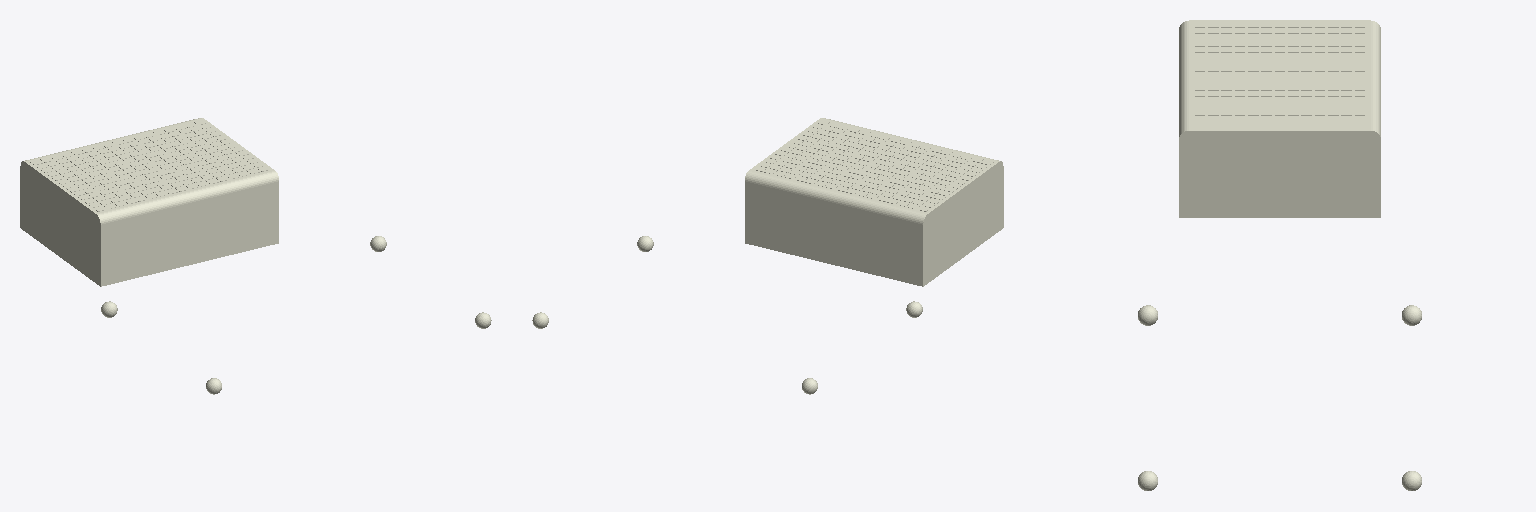
--- Facts derived from the render (not from the file) ---
Views: 3 orthographic renders of the robot side by side, from view 1: azimuth 30°, elevation 25°; view 2: azimuth 150°, elevation 25°; view 3: azimuth 270°, elevation 25°.
Robot: locotouch — 254 links, 253 joints (12 revolute, 241 fixed); root link trunk; default pose: all joints at 0 but 4 set to mid-range because 0 is outside their limits (a_FR_calf_joint = -1.85, b_FL_calf_joint = -1.85, c_RR_calf_joint = -1.85, d_RL_calf_joint = -1.85).
Links seen in each view (by area): view 1: back_mid, back, right_cylinder; view 2: back_mid, back, left_cylinder; view 3: back_mid, back, left_cylinder, right_cylinder.
Link boxes in pixels (x1,y1,x2,y2): back_mid: [20, 166, 278, 286]; back: [25, 118, 274, 220]; right_cylinder: [93, 171, 278, 227]; back_mid: [745, 166, 1003, 286]; back: [749, 118, 998, 220]; left_cylinder: [745, 171, 930, 229]; back_mid: [1179, 140, 1380, 217]; back: [1189, 20, 1370, 139]; left_cylinder: [1360, 21, 1380, 148]; right_cylinder: [1179, 21, 1199, 147].
Size in the robot's own frame: 0.5276 by 0.2735 by 0.2571 metres.
0 mesh visuals loaded from 5 distinct referenced files (none loaded); not drawn: 13 (reference not matched to a file when rendering).

URDF robot description (locotouch):
<?xml version="1.0" ?>
<!-- =================================================================================== -->
<!-- |    This document was autogenerated by xacro from robot.xacro                    | -->
<!-- |    EDITING THIS FILE BY HAND IS NOT RECOMMENDED                                 | -->
<!-- =================================================================================== -->
<robot name="locotouch">
  <material name="black">
    <color rgba="0.0 0.0 0.0 1.0"/>
  </material>
  <material name="blue">
    <color rgba="0.0 0.0 0.8 1.0"/>
  </material>
  <material name="green">
    <color rgba="0.0 0.8 0.0 1.0"/>
  </material>
  <material name="grey">
    <color rgba="0.2 0.2 0.2 1.0"/>
  </material>
  <material name="silver">
    <color rgba="0.9137254901960784 0.9137254901960784 0.8470588235294118 1.0"/>
  </material>
  <material name="orange">
    <color rgba="1.0 0.4235294117647059 0.0392156862745098 1.0"/>
  </material>
  <material name="brown">
    <color rgba="0.8705882352941177 0.8117647058823529 0.7647058823529411 1.0"/>
  </material>
  <material name="red">
    <color rgba="0.8 0.0 0.0 1.0"/>
  </material>
  <material name="white">
    <color rgba="1.0 1.0 1.0 1.0"/>
  </material>

  <link name="trunk">
    <visual>
      <origin rpy="0 0 0" xyz="0 0 0"/>
      <geometry>
        <mesh filename="../meshes/trunk.stl" scale="1 1 1"/>
      </geometry>
      <material name="silver"/>
    </visual>
    <collision>
      <origin rpy="0 0 0" xyz="0 0 0"/>
      <geometry>
        <box size="0.256 0.1 0.114"/>
      </geometry>
    </collision>
    <inertial>
      <origin rpy="0 0 0" xyz="0.0223 0.002 -0.0005"/>
      <mass value="5.204"/>
      <inertia ixx="0.0168128557" ixy="-0.0002296769" ixz="-0.0002945293" iyy="0.063009565" iyz="-4.18731e-05" izz="0.0716547275"/>
    </inertial>
  </link>

  <joint name="a_FR_hip_joint" type="revolute">
    <origin rpy="0 0 0" xyz="0.1881 -0.04675 0"/>
    <parent link="trunk"/>
    <child link="a_FR_hip"/>
    <axis xyz="1 0 0"/>
    <dynamics damping="0.0" friction="0.0"/>
    <limit effort="23.7" lower="-0.863" upper="0.863" velocity="30.1"/>
  </joint>
  <joint name="a_FR_hip_rotor_joint" type="fixed">
    <origin rpy="0 0 0" xyz="0.11215 -0.04675 0"/>
    <parent link="trunk"/>
    <child link="a_FR_hip_rotor"/>
  </joint>
  <link name="a_FR_hip">
    <visual>
      <origin rpy="3.141592653589793 0 0" xyz="0 0 0"/>
      <geometry>
        <mesh filename="../meshes/hip.stl" scale="1 1 1"/>
      </geometry>
      <material name="silver"/>
    </visual>
    <collision>
      <origin rpy="1.5707963267948966 0 0" xyz="0 -0.08 0"/>
      <geometry>
        <cylinder length="0.04" radius="0.046"/>
      </geometry>
    </collision>
    <inertial>
      <origin rpy="0 0 0" xyz="-0.005657 0.008752 -0.000102"/>
      <mass value="0.591"/>
      <inertia ixx="0.000334008405" ixy="1.0826066e-05" ixz="1.290732e-06" iyy="0.000619101213" iyz="-1.643194e-06" izz="0.00040057614"/>
    </inertial>
  </link>
  <link name="a_FR_hip_rotor">
    <collision>
      <origin rpy="0 1.5707963267948966 0" xyz="0 0 0"/>
      <geometry>
        <cylinder length="0.02" radius="0.035"/>
      </geometry>
    </collision>
    <inertial>
      <origin rpy="0 0 0" xyz="0.0 0.0 0.0"/>
      <mass value="0.089"/>
      <inertia ixx="0.000111842" ixy="0.0" ixz="0.0" iyy="5.9647e-05" iyz="0.0" izz="5.9647e-05"/>
    </inertial>
  </link>
  <joint name="a_FR_thigh_joint" type="revolute">
    <origin rpy="0 0 0" xyz="0 -0.08 0"/>
    <parent link="a_FR_hip"/>
    <child link="a_FR_thigh"/>
    <axis xyz="0 1 0"/>
    <dynamics damping="0.0" friction="0.0"/>
    <limit effort="23.7" lower="-0.686" upper="4.501" velocity="30.1"/>
  </joint>
  <joint name="a_FR_thigh_rotor_joint" type="fixed">
    <origin rpy="0 0 0" xyz="0.0 0.00015 0"/>
    <parent link="a_FR_hip"/>
    <child link="a_FR_thigh_rotor"/>
  </joint>
  <link name="a_FR_thigh">
    <visual>
      <origin rpy="0 0 0" xyz="0 0 0"/>
      <geometry>
        <mesh filename="../meshes/thigh_mirror.stl" scale="1 1 1"/>
      </geometry>
      <material name="silver"/>
    </visual>
    <collision>
      <origin rpy="0 1.5707963267948966 0" xyz="0 0 -0.1065"/>
      <geometry>
        <box size="0.213 0.0245 0.034"/>
      </geometry>
    </collision>
    <inertial>
      <origin rpy="0 0 0" xyz="-0.003342 0.018054 -0.033451"/>
      <mass value="0.92"/>
      <inertia ixx="0.004431760472" ixy="-5.7496807e-05" ixz="-0.000218457134" iyy="0.004485671726" iyz="-0.000572001265" izz="0.000740309489"/>
    </inertial>
  </link>
  <link name="a_FR_thigh_rotor">
    <collision>
      <origin rpy="1.5707963267948966 0 0" xyz="0 0 0"/>
      <geometry>
        <cylinder length="0.02" radius="0.035"/>
      </geometry>
    </collision>
    <inertial>
      <origin rpy="0 0 0" xyz="0.0 0.0 0.0"/>
      <mass value="0.089"/>
      <inertia ixx="5.9647e-05" ixy="0.0" ixz="0.0" iyy="0.000111842" iyz="0.0" izz="5.9647e-05"/>
    </inertial>
  </link>
  <joint name="a_FR_calf_joint" type="revolute">
    <origin rpy="0 0 0" xyz="0 0 -0.213"/>
    <parent link="a_FR_thigh"/>
    <child link="a_FR_calf"/>
    <axis xyz="0 1 0"/>
    <dynamics damping="0.0" friction="0.0"/>
    <limit effort="35.55" lower="-2.818" upper="-0.888" velocity="20.06"/>
  </joint>
  <joint name="a_FR_calf_rotor_joint" type="fixed">
    <origin rpy="0 0 0" xyz="0.0 0.03235 0"/>
    <parent link="a_FR_thigh"/>
    <child link="a_FR_calf_rotor"/>
  </joint>
  <link name="a_FR_calf">
    <visual>
      <origin rpy="0 0 0" xyz="0 0 0"/>
      <geometry>
        <mesh filename="../meshes/calf.stl" scale="1 1 1"/>
      </geometry>
      <material name="silver"/>
    </visual>
    <collision>
      <origin rpy="0 1.5707963267948966 0" xyz="0 0 -0.1065"/>
      <geometry>
        <box size="0.213 0.016 0.016"/>
      </geometry>
    </collision>
    <inertial>
      <origin rpy="0 0 0" xyz="0.006197 0.001408 -0.116695"/>
      <mass value="0.135862"/>
      <inertia ixx="0.001088793059" ixy="-2.55679e-07" ixz="7.117814e-06" iyy="0.001100428748" iyz="2.077264e-06" izz="2.4787446e-05"/>
    </inertial>
  </link>
  <link name="a_FR_calf_rotor">
    <collision>
      <origin rpy="1.5707963267948966 0 0" xyz="0 0 0"/>
      <geometry>
        <cylinder length="0.02" radius="0.035"/>
      </geometry>
    </collision>
    <inertial>
      <origin rpy="0 0 0" xyz="0.0 0.0 0.0"/>
      <mass value="0.089"/>
      <inertia ixx="5.9647e-05" ixy="0.0" ixz="0.0" iyy="0.000111842" iyz="0.0" izz="5.9647e-05"/>
    </inertial>
  </link>
  <joint name="a_FR_foot_fixed" type="fixed" dont_collapse="true">
    <origin rpy="0 0 0" xyz="0 0 -0.213"/>
    <parent link="a_FR_calf"/>
    <child link="a_FR_foot"/>
  </joint>
  <link name="a_FR_foot">
    <visual>
      <origin rpy="0 0 0" xyz="0 0 0"/>
      <geometry>
        <sphere radius="0.01"/>
      </geometry>
      <material name="silver"/>
    </visual>
    <collision>
      <origin rpy="0 0 0" xyz="0 0 0"/>
      <geometry>
        <sphere radius="0.02"/>
      </geometry>
    </collision>
    <inertial>
      <mass value="0.06"/>
      <inertia ixx="9.600000000000001e-06" ixy="0.0" ixz="0.0" iyy="9.600000000000001e-06" iyz="0.0" izz="9.600000000000001e-06"/>
    </inertial>
  </link>

  <joint name="b_FL_hip_joint" type="revolute">
    <origin rpy="0 0 0" xyz="0.1881 0.04675 0"/>
    <parent link="trunk"/>
    <child link="b_FL_hip"/>
    <axis xyz="1 0 0"/>
    <dynamics damping="0.0" friction="0.0"/>
    <limit effort="23.7" lower="-0.863" upper="0.863" velocity="30.1"/>
  </joint>
  <joint name="b_FL_hip_rotor_joint" type="fixed">
    <origin rpy="0 0 0" xyz="0.11215 0.04675 0"/>
    <parent link="trunk"/>
    <child link="b_FL_hip_rotor"/>
  </joint>
  <link name="b_FL_hip">
    <visual>
      <origin rpy="0 0 0" xyz="0 0 0"/>
      <geometry>
        <mesh filename="../meshes/hip.stl" scale="1 1 1"/>
      </geometry>
      <material name="silver"/>
    </visual>
    <collision>
      <origin rpy="1.5707963267948966 0 0" xyz="0 0.08 0"/>
      <geometry>
        <cylinder length="0.04" radius="0.046"/>
      </geometry>
    </collision>
    <inertial>
      <origin rpy="0 0 0" xyz="-0.005657 -0.008752 -0.000102"/>
      <mass value="0.591"/>
      <inertia ixx="0.000334008405" ixy="-1.0826066e-05" ixz="1.290732e-06" iyy="0.000619101213" iyz="1.643194e-06" izz="0.00040057614"/>
    </inertial>
  </link>
  <link name="b_FL_hip_rotor">
    <collision>
      <origin rpy="0 1.5707963267948966 0" xyz="0 0 0"/>
      <geometry>
        <cylinder length="0.02" radius="0.035"/>
      </geometry>
    </collision>
    <inertial>
      <origin rpy="0 0 0" xyz="0.0 0.0 0.0"/>
      <mass value="0.089"/>
      <inertia ixx="0.000111842" ixy="0.0" ixz="0.0" iyy="5.9647e-05" iyz="0.0" izz="5.9647e-05"/>
    </inertial>
  </link>
  <joint name="b_FL_thigh_joint" type="revolute">
    <origin rpy="0 0 0" xyz="0 0.08 0"/>
    <parent link="b_FL_hip"/>
    <child link="b_FL_thigh"/>
    <axis xyz="0 1 0"/>
    <dynamics damping="0.0" friction="0.0"/>
    <limit effort="23.7" lower="-0.686" upper="4.501" velocity="30.1"/>
  </joint>
  <joint name="b_FL_thigh_rotor_joint" type="fixed">
    <origin rpy="0 0 0" xyz="0.0 -0.00015 0"/>
    <parent link="b_FL_hip"/>
    <child link="b_FL_thigh_rotor"/>
  </joint>
  <link name="b_FL_thigh">
    <visual>
      <origin rpy="0 0 0" xyz="0 0 0"/>
      <geometry>
        <mesh filename="../meshes/thigh.stl" scale="1 1 1"/>
      </geometry>
      <material name="silver"/>
    </visual>
    <collision>
      <origin rpy="0 1.5707963267948966 0" xyz="0 0 -0.1065"/>
      <geometry>
        <box size="0.213 0.0245 0.034"/>
      </geometry>
    </collision>
    <inertial>
      <origin rpy="0 0 0" xyz="-0.003342 -0.018054 -0.033451"/>
      <mass value="0.92"/>
      <inertia ixx="0.004431760472" ixy="5.7496807e-05" ixz="-0.000218457134" iyy="0.004485671726" iyz="0.000572001265" izz="0.000740309489"/>
    </inertial>
  </link>
  <link name="b_FL_thigh_rotor">
    <collision>
      <origin rpy="1.5707963267948966 0 0" xyz="0 0 0"/>
      <geometry>
        <cylinder length="0.02" radius="0.035"/>
      </geometry>
    </collision>
    <inertial>
      <origin rpy="0 0 0" xyz="0.0 0.0 0.0"/>
      <mass value="0.089"/>
      <inertia ixx="5.9647e-05" ixy="0.0" ixz="0.0" iyy="0.000111842" iyz="0.0" izz="5.9647e-05"/>
    </inertial>
  </link>
  <joint name="b_FL_calf_joint" type="revolute">
    <origin rpy="0 0 0" xyz="0 0 -0.213"/>
    <parent link="b_FL_thigh"/>
    <child link="b_FL_calf"/>
    <axis xyz="0 1 0"/>
    <dynamics damping="0.0" friction="0.0"/>
    <limit effort="35.55" lower="-2.818" upper="-0.888" velocity="20.06"/>
  </joint>
  <joint name="b_FL_calf_rotor_joint" type="fixed">
    <origin rpy="0 0 0" xyz="0.0 -0.03235 0"/>
    <parent link="b_FL_thigh"/>
    <child link="b_FL_calf_rotor"/>
  </joint>
  <link name="b_FL_calf">
    <visual>
      <origin rpy="0 0 0" xyz="0 0 0"/>
      <geometry>
        <mesh filename="../meshes/calf.stl" scale="1 1 1"/>
      </geometry>
      <material name="silver"/>
    </visual>
    <collision>
      <origin rpy="0 1.5707963267948966 0" xyz="0 0 -0.1065"/>
      <geometry>
        <box size="0.213 0.016 0.016"/>
      </geometry>
    </collision>
    <inertial>
      <origin rpy="0 0 0" xyz="0.006197 0.001408 -0.116695"/>
      <mass value="0.135862"/>
      <inertia ixx="0.001088793059" ixy="-2.55679e-07" ixz="7.117814e-06" iyy="0.001100428748" iyz="2.077264e-06" izz="2.4787446e-05"/>
    </inertial>
  </link>
  <link name="b_FL_calf_rotor">
    <collision>
      <origin rpy="1.5707963267948966 0 0" xyz="0 0 0"/>
      <geometry>
        <cylinder length="0.02" radius="0.035"/>
      </geometry>
    </collision>
    <inertial>
      <origin rpy="0 0 0" xyz="0.0 0.0 0.0"/>
      <mass value="0.089"/>
      <inertia ixx="5.9647e-05" ixy="0.0" ixz="0.0" iyy="0.000111842" iyz="0.0" izz="5.9647e-05"/>
    </inertial>
  </link>
  <joint name="b_FL_foot_fixed" type="fixed" dont_collapse="true">
    <origin rpy="0 0 0" xyz="0 0 -0.213"/>
    <parent link="b_FL_calf"/>
    <child link="b_FL_foot"/>
  </joint>
  <link name="b_FL_foot">
    <visual>
      <origin rpy="0 0 0" xyz="0 0 0"/>
      <geometry>
        <sphere radius="0.01"/>
      </geometry>
      <material name="silver"/>
    </visual>
    <collision>
      <origin rpy="0 0 0" xyz="0 0 0"/>
      <geometry>
        <sphere radius="0.02"/>
      </geometry>
    </collision>
    <inertial>
      <mass value="0.06"/>
      <inertia ixx="9.600000000000001e-06" ixy="0.0" ixz="0.0" iyy="9.600000000000001e-06" iyz="0.0" izz="9.600000000000001e-06"/>
    </inertial>
  </link>

  <joint name="c_RR_hip_joint" type="revolute">
    <origin rpy="0 0 0" xyz="-0.1881 -0.04675 0"/>
    <parent link="trunk"/>
    <child link="c_RR_hip"/>
    <axis xyz="1 0 0"/>
    <dynamics damping="0.0" friction="0.0"/>
    <limit effort="23.7" lower="-0.863" upper="0.863" velocity="30.1"/>
  </joint>
  <joint name="c_RR_hip_rotor_joint" type="fixed">
    <origin rpy="0 0 0" xyz="-0.11215 -0.04675 0"/>
    <parent link="trunk"/>
    <child link="c_RR_hip_rotor"/>
  </joint>
  <link name="c_RR_hip">
    <visual>
      <origin rpy="3.141592653589793 3.141592653589793 0" xyz="0 0 0"/>
      <geometry>
        <mesh filename="../meshes/hip.stl" scale="1 1 1"/>
      </geometry>
      <material name="silver"/>
    </visual>
    <collision>
      <origin rpy="1.5707963267948966 0 0" xyz="0 -0.08 0"/>
      <geometry>
        <cylinder length="0.04" radius="0.046"/>
      </geometry>
    </collision>
    <inertial>
      <origin rpy="0 0 0" xyz="0.005657 0.008752 -0.000102"/>
      <mass value="0.591"/>
      <inertia ixx="0.000334008405" ixy="-1.0826066e-05" ixz="-1.290732e-06" iyy="0.000619101213" iyz="-1.643194e-06" izz="0.00040057614"/>
    </inertial>
  </link>
  <link name="c_RR_hip_rotor">
    <collision>
      <origin rpy="0 1.5707963267948966 0" xyz="0 0 0"/>
      <geometry>
        <cylinder length="0.02" radius="0.035"/>
      </geometry>
    </collision>
    <inertial>
      <origin rpy="0 0 0" xyz="0.0 0.0 0.0"/>
      <mass value="0.089"/>
      <inertia ixx="0.000111842" ixy="0.0" ixz="0.0" iyy="5.9647e-05" iyz="0.0" izz="5.9647e-05"/>
    </inertial>
  </link>
  <joint name="c_RR_thigh_joint" type="revolute">
    <origin rpy="0 0 0" xyz="0 -0.08 0"/>
    <parent link="c_RR_hip"/>
    <child link="c_RR_thigh"/>
    <axis xyz="0 1 0"/>
    <dynamics damping="0.0" friction="0.0"/>
    <limit effort="23.7" lower="-0.686" upper="4.501" velocity="30.1"/>
  </joint>
  <joint name="c_RR_thigh_rotor_joint" type="fixed">
    <origin rpy="0 0 0" xyz="0.0 0.00015 0"/>
    <parent link="c_RR_hip"/>
    <child link="c_RR_thigh_rotor"/>
  </joint>
  <link name="c_RR_thigh">
    <visual>
      <origin rpy="0 0 0" xyz="0 0 0"/>
      <geometry>
        <mesh filename="../meshes/thigh_mirror.stl" scale="1 1 1"/>
      </geometry>
      <material name="silver"/>
    </visual>
    <collision>
      <origin rpy="0 1.5707963267948966 0" xyz="0 0 -0.1065"/>
      <geometry>
        <box size="0.213 0.0245 0.034"/>
      </geometry>
    </collision>
    <inertial>
      <origin rpy="0 0 0" xyz="-0.003342 0.018054 -0.033451"/>
      <mass value="0.92"/>
      <inertia ixx="0.004431760472" ixy="-5.7496807e-05" ixz="-0.000218457134" iyy="0.004485671726" iyz="-0.000572001265" izz="0.000740309489"/>
    </inertial>
  </link>
  <link name="c_RR_thigh_rotor">
    <collision>
      <origin rpy="1.5707963267948966 0 0" xyz="0 0 0"/>
      <geometry>
        <cylinder length="0.02" radius="0.035"/>
      </geometry>
    </collision>
    <inertial>
      <origin rpy="0 0 0" xyz="0.0 0.0 0.0"/>
      <mass value="0.089"/>
      <inertia ixx="5.9647e-05" ixy="0.0" ixz="0.0" iyy="0.000111842" iyz="0.0" izz="5.9647e-05"/>
    </inertial>
  </link>
  <joint name="c_RR_calf_joint" type="revolute">
    <origin rpy="0 0 0" xyz="0 0 -0.213"/>
    <parent link="c_RR_thigh"/>
    <child link="c_RR_calf"/>
    <axis xyz="0 1 0"/>
    <dynamics damping="0.0" friction="0.0"/>
    <limit effort="35.55" lower="-2.818" upper="-0.888" velocity="20.06"/>
  </joint>
  <joint name="c_RR_calf_rotor_joint" type="fixed">
    <origin rpy="0 0 0" xyz="0.0 0.03235 0"/>
    <parent link="c_RR_thigh"/>
    <child link="c_RR_calf_rotor"/>
  </joint>
  <link name="c_RR_calf">
    <visual>
      <origin rpy="0 0 0" xyz="0 0 0"/>
      <geometry>
        <mesh filename="../meshes/calf.stl" scale="1 1 1"/>
      </geometry>
      <material name="silver"/>
    </visual>
    <collision>
      <origin rpy="0 1.5707963267948966 0" xyz="0 0 -0.1065"/>
      <geometry>
        <box size="0.213 0.016 0.016"/>
      </geometry>
    </collision>
    <inertial>
      <origin rpy="0 0 0" xyz="0.006197 0.001408 -0.116695"/>
      <mass value="0.135862"/>
      <inertia ixx="0.001088793059" ixy="-2.55679e-07" ixz="7.117814e-06" iyy="0.001100428748" iyz="2.077264e-06" izz="2.4787446e-05"/>
    </inertial>
  </link>
  <link name="c_RR_calf_rotor">
    <collision>
      <origin rpy="1.5707963267948966 0 0" xyz="0 0 0"/>
      <geometry>
        <cylinder length="0.02" radius="0.035"/>
      </geometry>
    </collision>
    <inertial>
      <origin rpy="0 0 0" xyz="0.0 0.0 0.0"/>
      <mass value="0.089"/>
      <inertia ixx="5.9647e-05" ixy="0.0" ixz="0.0" iyy="0.000111842" iyz="0.0" izz="5.9647e-05"/>
    </inertial>
  </link>
  <joint name="c_RR_foot_fixed" type="fixed" dont_collapse="true">
    <origin rpy="0 0 0" xyz="0 0 -0.213"/>
    <parent link="c_RR_calf"/>
    <child link="c_RR_foot"/>
  </joint>
  <link name="c_RR_foot">
    <visual>
      <origin rpy="0 0 0" xyz="0 0 0"/>
      <geometry>
        <sphere radius="0.01"/>
      </geometry>
      <material name="silver"/>
    </visual>
    <collision>
      <origin rpy="0 0 0" xyz="0 0 0"/>
      <geometry>
        <sphere radius="0.02"/>
      </geometry>
    </collision>
    <inertial>
      <mass value="0.06"/>
      <inertia ixx="9.600000000000001e-06" ixy="0.0" ixz="0.0" iyy="9.600000000000001e-06" iyz="0.0" izz="9.600000000000001e-06"/>
    </inertial>
  </link>

  <joint name="d_RL_hip_joint" type="revolute">
    <origin rpy="0 0 0" xyz="-0.1881 0.04675 0"/>
    <parent link="trunk"/>
    <child link="d_RL_hip"/>
    <axis xyz="1 0 0"/>
    <dynamics damping="0.0" friction="0.0"/>
    <limit effort="23.7" lower="-0.863" upper="0.863" velocity="30.1"/>
  </joint>
  <joint name="d_RL_hip_rotor_joint" type="fixed">
    <origin rpy="0 0 0" xyz="-0.11215 0.04675 0"/>
    <parent link="trunk"/>
    <child link="d_RL_hip_rotor"/>
  </joint>
  <link name="d_RL_hip">
    <visual>
      <origin rpy="0 3.141592653589793 0" xyz="0 0 0"/>
      <geometry>
        <mesh filename="../meshes/hip.stl" scale="1 1 1"/>
      </geometry>
      <material name="silver"/>
    </visual>
    <collision>
      <origin rpy="1.5707963267948966 0 0" xyz="0 0.08 0"/>
      <geometry>
        <cylinder length="0.04" radius="0.046"/>
      </geometry>
    </collision>
    <inertial>
      <origin rpy="0 0 0" xyz="0.005657 -0.008752 -0.000102"/>
      <mass value="0.591"/>
      <inertia ixx="0.000334008405" ixy="1.0826066e-05" ixz="-1.290732e-06" iyy="0.000619101213" iyz="1.643194e-06" izz="0.00040057614"/>
    </inertial>
  </link>
  <link name="d_RL_hip_rotor">
    <collision>
      <origin rpy="0 1.5707963267948966 0" xyz="0 0 0"/>
      <geometry>
        <cylinder length="0.02" radius="0.035"/>
      </geometry>
    </collision>
    <inertial>
      <origin rpy="0 0 0" xyz="0.0 0.0 0.0"/>
      <mass value="0.089"/>
      <inertia ixx="0.000111842" ixy="0.0" ixz="0.0" iyy="5.9647e-05" iyz="0.0" izz="5.9647e-05"/>
    </inertial>
  </link>
  <joint name="d_RL_thigh_joint" type="revolute">
    <origin rpy="0 0 0" xyz="0 0.08 0"/>
    <parent link="d_RL_hip"/>
    <child link="d_RL_thigh"/>
    <axis xyz="0 1 0"/>
    <dynamics damping="0.0" friction="0.0"/>
    <limit effort="23.7" lower="-0.686" upper="4.501" velocity="30.1"/>
  </joint>
  <joint name="d_RL_thigh_rotor_joint" type="fixed">
    <origin rpy="0 0 0" xyz="0.0 -0.00015 0"/>
    <parent link="d_RL_hip"/>
    <child link="d_RL_thigh_rotor"/>
  </joint>
  <link name="d_RL_thigh">
    <visual>
      <origin rpy="0 0 0" xyz="0 0 0"/>
      <geometry>
        <mesh filename="../meshes/thigh.stl" scale="1 1 1"/>
      </geometry>
      <material name="silver"/>
    </visual>
    <collision>
      <origin rpy="0 1.5707963267948966 0" xyz="0 0 -0.1065"/>
      <geometry>
        <box size="0.213 0.0245 0.034"/>
      </geometry>
    </collision>
    <inertial>
      <origin rpy="0 0 0" xyz="-0.003342 -0.018054 -0.033451"/>
      <mass value="0.92"/>
      <inertia ixx="0.004431760472" ixy="5.7496807e-05" ixz="-0.000218457134" iyy="0.004485671726" iyz="0.000572001265" izz="0.000740309489"/>
    </inertial>
  </link>
  <link name="d_RL_thigh_rotor">
    <collision>
      <origin rpy="1.5707963267948966 0 0" xyz="0 0 0"/>
      <geometry>
        <cylinder length="0.02" radius="0.035"/>
      </geometry>
    </collision>
    <inertial>
      <origin rpy="0 0 0" xyz="0.0 0.0 0.0"/>
      <mass value="0.089"/>
      <inertia ixx="5.9647e-05" ixy="0.0" ixz="0.0" iyy="0.000111842" iyz="0.0" izz="5.9647e-05"/>
    </inertial>
  </link>
  <joint name="d_RL_calf_joint" type="revolute">
    <origin rpy="0 0 0" xyz="0 0 -0.213"/>
    <parent link="d_RL_thigh"/>
    <child link="d_RL_calf"/>
    <axis xyz="0 1 0"/>
    <dynamics damping="0.0" friction="0.0"/>
    <limit effort="35.55" lower="-2.818" upper="-0.888" velocity="20.06"/>
  </joint>
  <joint name="d_RL_calf_rotor_joint" type="fixed">
    <origin rpy="0 0 0" xyz="0.0 -0.03235 0"/>
    <parent link="d_RL_thigh"/>
    <child link="d_RL_calf_rotor"/>
  </joint>
  <link name="d_RL_calf">
    <visual>
      <origin rpy="0 0 0" xyz="0 0 0"/>
      <geometry>
        <mesh filename="../meshes/calf.stl" scale="1 1 1"/>
      </geometry>
      <material name="silver"/>
    </visual>
    <collision>
      <origin rpy="0 1.5707963267948966 0" xyz="0 0 -0.1065"/>
      <geometry>
        <box size="0.213 0.016 0.016"/>
      </geometry>
    </collision>
    <inertial>
      <origin rpy="0 0 0" xyz="0.006197 0.001408 -0.116695"/>
      <mass value="0.135862"/>
      <inertia ixx="0.001088793059" ixy="-2.55679e-07" ixz="7.117814e-06" iyy="0.001100428748" iyz="2.077264e-06" izz="2.4787446e-05"/>
    </inertial>
  </link>
  <link name="d_RL_calf_rotor">
    <collision>
      <origin rpy="1.5707963267948966 0 0" xyz="0 0 0"/>
      <geometry>
        <cylinder length="0.02" radius="0.035"/>
      </geometry>
    </collision>
    <inertial>
      <origin rpy="0 0 0" xyz="0.0 0.0 0.0"/>
      <mass value="0.089"/>
      <inertia ixx="5.9647e-05" ixy="0.0" ixz="0.0" iyy="0.000111842" iyz="0.0" izz="5.9647e-05"/>
    </inertial>
  </link>
  <joint name="d_RL_foot_fixed" type="fixed" dont_collapse="true">
    <origin rpy="0 0 0" xyz="0 0 -0.213"/>
    <parent link="d_RL_calf"/>
    <child link="d_RL_foot"/>
  </joint>
  <link name="d_RL_foot">
    <visual>
      <origin rpy="0 0 0" xyz="0 0 0"/>
      <geometry>
        <sphere radius="0.01"/>
      </geometry>
      <material name="silver"/>
    </visual>
    <collision>
      <origin rpy="0 0 0" xyz="0 0 0"/>
      <geometry>
        <sphere radius="0.02"/>
      </geometry>
    </collision>
    <inertial>
      <mass value="0.06"/>
      <inertia ixx="9.600000000000001e-06" ixy="0.0" ixz="0.0" iyy="9.600000000000001e-06" iyz="0.0" izz="9.600000000000001e-06"/>
    </inertial>
  </link>


  <link name="back">
    <visual>
      <origin rpy="0 0 0" xyz="0 0 0"/>
      <geometry>
        <box size="0.25 0.174 0.01"/>
      </geometry>
      <material name="silver"/>
    </visual>
    <collision>
      <origin rpy="0 0 0" xyz="0 0 0"/>
      <geometry>
        <box size="0.25 0.174 0.01"/>
      </geometry>
    </collision>
    <inertial>
      <origin rpy="0 0 0" xyz="0.0 0.0 0.0"/>
      <mass value="0.4"/>
      <inertia ixx="0.0001" ixy="0.0001" ixz="0.0001" iyy="0.0e-05" iyz="0.0e-05" izz="0.0e-05"/>
    </inertial>
  </link>
  <joint name="back_joint" type="fixed">
    <origin rpy="0 0 0" xyz="0 0 0.088"/>
    <parent link="trunk"/>
    <child link="back"/>
  </joint>

  <link name="back_mid">
    <visual>
      <origin rpy="0 0 0" xyz="0 0 0"/>
      <geometry>
        <box size="0.25 0.194 0.083"/>
      </geometry>
      <material name="silver"/>
    </visual>
    <collision>
      <origin rpy="0 0 0" xyz="0 0 0"/>
      <geometry>
        <box size="0.25 0.194 0.083"/>
      </geometry>
    </collision>
    <inertial>
      <origin rpy="0 0 0" xyz="0.0 0.0 0.01"/>
      <mass value="0.1"/>
      <inertia ixx="0.0001" ixy="0.0001" ixz="0.0001" iyy="0.0e-05" iyz="0.0e-05" izz="0.0e-05"/>
    </inertial>
  </link>
  <joint name="back_mid_joint" type="fixed">
    <origin rpy="0 0 0" xyz="0 0 0.0415"/>
    <parent link="trunk"/>
    <child link="back_mid"/>
  </joint>

  <link name="left_cylinder">
    <visual>
      <origin rpy="0 0 0" xyz="0 0 0"/>
      <geometry>
        <cylinder length="0.25" radius="0.01"/>
      </geometry>
      <material name="silver"/>
    </visual>
    <collision>
      <origin rpy="0 0 0" xyz="0 0 0"/>
      <geometry>
        <cylinder length="0.25" radius="0.01"/>
      </geometry>
    </collision>
  </link>
  <joint name="left_cylinder_joint" type="fixed">
    <origin rpy="0 1.5707963267948966 0" xyz="0 0.087 0.083"/>
    <parent link="trunk"/>
    <child link="left_cylinder"/>
  </joint>

  <link name="right_cylinder">
    <visual>
      <origin rpy="0 0 0" xyz="0 0 0"/>
      <geometry>
        <cylinder length="0.25" radius="0.01"/>
      </geometry>
      <material name="silver"/>
    </visual>
    <collision>
      <origin rpy="0 0 0" xyz="0 0 0"/>
      <geometry>
        <cylinder length="0.25" radius="0.01"/>
      </geometry>
    </collision>
  </link>
  <joint name="right_cylinder_joint" type="fixed">
    <origin rpy="0 1.5707963267948966 0" xyz="0 -0.087 0.083"/>
    <parent link="trunk"/>
    <child link="right_cylinder"/>
  </joint>

  <link name="sensor_01_01">
    <inertial>
      <origin xyz="0 -1.6653E-16 -5E-05" rpy="0 0 0" />
      <mass value="9.18E-07" />
      <inertia ixx="6.8927E-13" ixy="5.5033E-28" ixz="2.4805E-28" iyy="6.8927E-13" iyz="-3.5387E-24" izz="1.377E-12" />
    </inertial>
    <visual>
      <origin rpy="0 0 0" xyz="0 0 0"/>
      <geometry>
        <box size="0.0113 0.0105 0.001"/>
      </geometry>
      <material name="silver"/>
    </visual>
    <collision>
      <origin rpy="0 0 0" xyz="0 0 0"/>
      <geometry>
        <box size="0.0183 0.0175 0.001"/>
      </geometry>
    </collision>
  </link>
  
<joint name="sensor_01_01_fixed" type="fixed">
    <origin xyz="0.1144 0.0768 0.093" rpy="0 0 0" />
    <parent link="trunk" />
    <child link="sensor_01_01" />
    <axis xyz="0 0 0" />
  </joint>


<link name="sensor_01_02">
    <inertial>
      <origin xyz="0 -1.6653E-16 -5E-05" rpy="0 0 0" />
      <mass value="9.18E-07" />
      <inertia ixx="6.8927E-13" ixy="5.5033E-28" ixz="2.4805E-28" iyy="6.8927E-13" iyz="-3.5387E-24" izz="1.377E-12" />
    </inertial>
    <visual>
      <origin rpy="0 0 0" xyz="0 0 0"/>
      <geometry>
        <box size="0.0113 0.0105 0.001"/>
      </geometry>
      <material name="silver"/>
    </visual>
    <collision>
      <origin rpy="0 0 0" xyz="0 0 0"/>
      <geometry>
        <box size="0.0183 0.0175 0.001"/>
      </geometry>
    </collision>
  </link>
  
<joint name="sensor_01_02_fixed" type="fixed">
    <origin xyz="0.1144 0.064 0.093" rpy="0 0 0" />
    <parent link="trunk" />
    <child link="sensor_01_02" />
    <axis xyz="0 0 0" />
  </joint>


<link name="sensor_01_03">
    <inertial>
      <origin xyz="0 -1.6653E-16 -5E-05" rpy="0 0 0" />
      <mass value="9.18E-07" />
      <inertia ixx="6.8927E-13" ixy="5.5033E-28" ixz="2.4805E-28" iyy="6.8927E-13" iyz="-3.5387E-24" izz="1.377E-12" />
    </inertial>
    <visual>
      <origin rpy="0 0 0" xyz="0 0 0"/>
      <geometry>
        <box size="0.0113 0.0105 0.001"/>
      </geometry>
      <material name="silver"/>
    </visual>
    <collision>
      <origin rpy="0 0 0" xyz="0 0 0"/>
      <geometry>
        <box size="0.0183 0.0175 0.001"/>
      </geometry>
    </collision>
  </link>
  
<joint name="sensor_01_03_fixed" type="fixed">
    <origin xyz="0.1144 0.0512 0.093" rpy="0 0 0" />
    <parent link="trunk" />
    <child link="sensor_01_03" />
    <axis xyz="0 0 0" />
  </joint>


<link name="sensor_01_04">
    <inertial>
      <origin xyz="0 -1.6653E-16 -5E-05" rpy="0 0 0" />
      <mass value="9.18E-07" />
      <inertia ixx="6.8927E-13" ixy="5.5033E-28" ixz="2.4805E-28" iyy="6.8927E-13" iyz="-3.5387E-24" izz="1.377E-12" />
    </inertial>
    <visual>
      <origin rpy="0 0 0" xyz="0 0 0"/>
      <geometry>
        <box size="0.0113 0.0105 0.001"/>
      </geometry>
      <material name="silver"/>
    </visual>
    <collision>
      <origin rpy="0 0 0" xyz="0 0 0"/>
      <geometry>
        <box size="0.0183 0.0175 0.001"/>
      </geometry>
    </collision>
  </link>
  
<joint name="sensor_01_04_fixed" type="fixed">
    <origin xyz="0.1144 0.0384 0.093" rpy="0 0 0" />
    <parent link="trunk" />
    <child link="sensor_01_04" />
    <axis xyz="0 0 0" />
  </joint>


<link name="sensor_01_05">
    <inertial>
      <origin xyz="0 -1.6653E-16 -5E-05" rpy="0 0 0" />
      <mass value="9.18E-07" />
      <inertia ixx="6.8927E-13" ixy="5.5033E-28" ixz="2.4805E-28" iyy="6.8927E-13" iyz="-3.5387E-24" izz="1.377E-12" />
    </inertial>
    <visual>
      <origin rpy="0 0 0" xyz="0 0 0"/>
      <geometry>
        <box size="0.0113 0.0105 0.001"/>
      </geometry>
      <material name="silver"/>
    </visual>
    <collision>
      <origin rpy="0 0 0" xyz="0 0 0"/>
      <geometry>
        <box size="0.0183 0.0175 0.001"/>
      </geometry>
    </collision>
  </link>
  
<joint name="sensor_01_05_fixed" type="fixed">
    <origin xyz="0.1144 0.0256 0.093" rpy="0 0 0" />
    <parent link="trunk" />
    <child link="sensor_01_05" />
    <axis xyz="0 0 0" />
  </joint>


<link name="sensor_01_06">
    <inertial>
      <origin xyz="0 -1.6653E-16 -5E-05" rpy="0 0 0" />
      <mass value="9.18E-07" />
      <inertia ixx="6.8927E-13" ixy="5.5033E-28" ixz="2.4805E-28" iyy="6.8927E-13" iyz="-3.5387E-24" izz="1.377E-12" />
    </inertial>
    <visual>
      <origin rpy="0 0 0" xyz="0 0 0"/>
      <geometry>
        <box size="0.0113 0.0105 0.001"/>
      </geometry>
      <material name="silver"/>
    </visual>
    <collision>
      <origin rpy="0 0 0" xyz="0 0 0"/>
      <geometry>
        <box size="0.0183 0.0175 0.001"/>
      </geometry>
    </collision>
  </link>
  
<joint name="sensor_01_06_fixed" type="fixed">
    <origin xyz="0.1144 0.0128 0.093" rpy="0 0 0" />
    <parent link="trunk" />
    <child link="sensor_01_06" />
    <axis xyz="0 0 0" />
  </joint>


<link name="sensor_01_07">
    <inertial>
      <origin xyz="0 -1.6653E-16 -5E-05" rpy="0 0 0" />
      <mass value="9.18E-07" />
      <inertia ixx="6.8927E-13" ixy="5.5033E-28" ixz="2.4805E-28" iyy="6.8927E-13" iyz="-3.5387E-24" izz="1.377E-12" />
    </inertial>
    <visual>
      <origin rpy="0 0 0" xyz="0 0 0"/>
      <geometry>
        <box size="0.0113 0.0105 0.001"/>
      </geometry>
      <material name="silver"/>
    </visual>
    <collision>
      <origin rpy="0 0 0" xyz="0 0 0"/>
      <geometry>
        <box size="0.0183 0.0175 0.001"/>
      </geometry>
    </collision>
  </link>
  
<joint name="sensor_01_07_fixed" type="fixed">
    <origin xyz="0.1144 -0.0 0.093" rpy="0 0 0" />
    <parent link="trunk" />
    <child link="sensor_01_07" />
    <axis xyz="0 0 0" />
  </joint>


<link name="sensor_01_08">
    <inertial>
      <origin xyz="0 -1.6653E-16 -5E-05" rpy="0 0 0" />
      <mass value="9.18E-07" />
      <inertia ixx="6.8927E-13" ixy="5.5033E-28" ixz="2.4805E-28" iyy="6.8927E-13" iyz="-3.5387E-24" izz="1.377E-12" />
    </inertial>
    <visual>
      <origin rpy="0 0 0" xyz="0 0 0"/>
      <geometry>
        <box size="0.0113 0.0105 0.001"/>
      </geometry>
      <material name="silver"/>
    </visual>
    <collision>
      <origin rpy="0 0 0" xyz="0 0 0"/>
      <geometry>
        <box size="0.0183 0.0175 0.001"/>
      </geometry>
    </collision>
  </link>
  
<joint name="sensor_01_08_fixed" type="fixed">
    <origin xyz="0.1144 -0.0128 0.093" rpy="0 0 0" />
    <parent link="trunk" />
    <child link="sensor_01_08" />
    <axis xyz="0 0 0" />
  </joint>


<link name="sensor_01_09">
    <inertial>
      <origin xyz="0 -1.6653E-16 -5E-05" rpy="0 0 0" />
      <mass value="9.18E-07" />
      <inertia ixx="6.8927E-13" ixy="5.5033E-28" ixz="2.4805E-28" iyy="6.8927E-13" iyz="-3.5387E-24" izz="1.377E-12" />
    </inertial>
    <visual>
      <origin rpy="0 0 0" xyz="0 0 0"/>
      <geometry>
        <box size="0.0113 0.0105 0.001"/>
      </geometry>
      <material name="silver"/>
    </visual>
    <collision>
      <origin rpy="0 0 0" xyz="0 0 0"/>
      <geometry>
        <box size="0.0183 0.0175 0.001"/>
      </geometry>
    </collision>
  </link>
  
<joint name="sensor_01_09_fixed" type="fixed">
    <origin xyz="0.1144 -0.0256 0.093" rpy="0 0 0" />
    <parent link="trunk" />
    <child link="sensor_01_09" />
    <axis xyz="0 0 0" />
  </joint>


<link name="sensor_01_10">
    <inertial>
      <origin xyz="0 -1.6653E-16 -5E-05" rpy="0 0 0" />
      <mass value="9.18E-07" />
      <inertia ixx="6.8927E-13" ixy="5.5033E-28" ixz="2.4805E-28" iyy="6.8927E-13" iyz="-3.5387E-24" izz="1.377E-12" />
    </inertial>
    <visual>
      <origin rpy="0 0 0" xyz="0 0 0"/>
      <geometry>
        <box size="0.0113 0.0105 0.001"/>
      </geometry>
      <material name="silver"/>
    </visual>
    <collision>
      <origin rpy="0 0 0" xyz="0 0 0"/>
      <geometry>
        <box size="0.0183 0.0175 0.001"/>
      </geometry>
    </collision>
  </link>
  
<joint name="sensor_01_10_fixed" type="fixed">
    <origin xyz="0.1144 -0.0384 0.093" rpy="0 0 0" />
    <parent link="trunk" />
    <child link="sensor_01_10" />
    <axis xyz="0 0 0" />
  </joint>


<link name="sensor_01_11">
    <inertial>
      <origin xyz="0 -1.6653E-16 -5E-05" rpy="0 0 0" />
      <mass value="9.18E-07" />
      <inertia ixx="6.8927E-13" ixy="5.5033E-28" ixz="2.4805E-28" iyy="6.8927E-13" iyz="-3.5387E-24" izz="1.377E-12" />
    </inertial>
    <visual>
      <origin rpy="0 0 0" xyz="0 0 0"/>
      <geometry>
        <box size="0.0113 0.0105 0.001"/>
      </geometry>
      <material name="silver"/>
    </visual>
    <collision>
      <origin rpy="0 0 0" xyz="0 0 0"/>
      <geometry>
        <box size="0.0183 0.0175 0.001"/>
      </geometry>
    </collision>
  </link>
  
<joint name="sensor_01_11_fixed" type="fixed">
    <origin xyz="0.1144 -0.0512 0.093" rpy="0 0 0" />
    <parent link="trunk" />
    <child link="sensor_01_11" />
    <axis xyz="0 0 0" />
  </joint>


<link name="sensor_01_12">
    <inertial>
      <origin xyz="0 -1.6653E-16 -5E-05" rpy="0 0 0" />
      <mass value="9.18E-07" />
      <inertia ixx="6.8927E-13" ixy="5.5033E-28" ixz="2.4805E-28" iyy="6.8927E-13" iyz="-3.5387E-24" izz="1.377E-12" />
    </inertial>
    <visual>
      <origin rpy="0 0 0" xyz="0 0 0"/>
      <geometry>
        <box size="0.0113 0.0105 0.001"/>
      </geometry>
      <material name="silver"/>
    </visual>
    <collision>
      <origin rpy="0 0 0" xyz="0 0 0"/>
      <geometry>
        <box size="0.0183 0.0175 0.001"/>
      </geometry>
    </collision>
  </link>
  
<joint name="sensor_01_12_fixed" type="fixed">
    <origin xyz="0.1144 -0.064 0.093" rpy="0 0 0" />
    <parent link="trunk" />
    <child link="sensor_01_12" />
    <axis xyz="0 0 0" />
  </joint>


<link name="sensor_01_13">
    <inertial>
      <origin xyz="0 -1.6653E-16 -5E-05" rpy="0 0 0" />
      <mass value="9.18E-07" />
      <inertia ixx="6.8927E-13" ixy="5.5033E-28" ixz="2.4805E-28" iyy="6.8927E-13" iyz="-3.5387E-24" izz="1.377E-12" />
    </inertial>
    <visual>
      <origin rpy="0 0 0" xyz="0 0 0"/>
      <geometry>
        <box size="0.0113 0.0105 0.001"/>
      </geometry>
      <material name="silver"/>
    </visual>
    <collision>
      <origin rpy="0 0 0" xyz="0 0 0"/>
      <geometry>
        <box size="0.0183 0.0175 0.001"/>
      </geometry>
    </collision>
  </link>
  
<joint name="sensor_01_13_fixed" type="fixed">
    <origin xyz="0.1144 -0.0768 0.093" rpy="0 0 0" />
    <parent link="trunk" />
    <child link="sensor_01_13" />
    <axis xyz="0 0 0" />
  </joint>


<link name="sensor_02_01">
    <inertial>
      <origin xyz="0 -1.6653E-16 -5E-05" rpy="0 0 0" />
      <mass value="9.18E-07" />
      <inertia ixx="6.8927E-13" ixy="5.5033E-28" ixz="2.4805E-28" iyy="6.8927E-13" iyz="-3.5387E-24" izz="1.377E-12" />
    </inertial>
    <visual>
      <origin rpy="0 0 0" xyz="0 0 0"/>
      <geometry>
        <box size="0.0113 0.0105 0.001"/>
      </geometry>
      <material name="silver"/>
    </visual>
    <collision>
      <origin rpy="0 0 0" xyz="0 0 0"/>
      <geometry>
        <box size="0.0183 0.0175 0.001"/>
      </geometry>
    </collision>
  </link>
  
<joint name="sensor_02_01_fixed" type="fixed">
    <origin xyz="0.1001 0.0768 0.093" rpy="0 0 0" />
    <parent link="trunk" />
    <child link="sensor_02_01" />
    <axis xyz="0 0 0" />
  </joint>


<link name="sensor_02_02">
    <inertial>
      <origin xyz="0 -1.6653E-16 -5E-05" rpy="0 0 0" />
      <mass value="9.18E-07" />
      <inertia ixx="6.8927E-13" ixy="5.5033E-28" ixz="2.4805E-28" iyy="6.8927E-13" iyz="-3.5387E-24" izz="1.377E-12" />
    </inertial>
    <visual>
      <origin rpy="0 0 0" xyz="0 0 0"/>
      <geometry>
        <box size="0.0113 0.0105 0.001"/>
      </geometry>
      <material name="silver"/>
    </visual>
    <collision>
      <origin rpy="0 0 0" xyz="0 0 0"/>
      <geometry>
        <box size="0.0183 0.0175 0.001"/>
      </geometry>
    </collision>
  </link>
  
<joint name="sensor_02_02_fixed" type="fixed">
    <origin xyz="0.1001 0.064 0.093" rpy="0 0 0" />
    <parent link="trunk" />
    <child link="sensor_02_02" />
    <axis xyz="0 0 0" />
  </joint>


<link name="sensor_02_03">
    <inertial>
      <origin xyz="0 -1.6653E-16 -5E-05" rpy="0 0 0" />
      <mass value="9.18E-07" />
      <inertia ixx="6.8927E-13" ixy="5.5033E-28" ixz="2.4805E-28" iyy="6.8927E-13" iyz="-3.5387E-24" izz="1.377E-12" />
    </inertial>
    <visual>
      <origin rpy="0 0 0" xyz="0 0 0"/>
      <geometry>
        <box size="0.0113 0.0105 0.001"/>
      </geometry>
      <material name="silver"/>
    </visual>
    <collision>
      <origin rpy="0 0 0" xyz="0 0 0"/>
      <geometry>
        <box size="0.0183 0.0175 0.001"/>
      </geometry>
    </collision>
  </link>
  
<joint name="sensor_02_03_fixed" type="fixed">
    <origin xyz="0.1001 0.0512 0.093" rpy="0 0 0" />
    <parent link="trunk" />
    <child link="sensor_02_03" />
    <axis xyz="0 0 0" />
  </joint>


<link name="sensor_02_04">
    <inertial>
      <origin xyz="0 -1.6653E-16 -5E-05" rpy="0 0 0" />
      <mass value="9.18E-07" />
      <inertia ixx="6.8927E-13" ixy="5.5033E-28" ixz="2.4805E-28" iyy="6.8927E-13" iyz="-3.5387E-24" izz="1.377E-12" />
    </inertial>
    <visual>
      <origin rpy="0 0 0" xyz="0 0 0"/>
      <geometry>
        <box size="0.0113 0.0105 0.001"/>
      </geometry>
      <material name="silver"/>
    </visual>
    <collision>
      <origin rpy="0 0 0" xyz="0 0 0"/>
      <geometry>
        <box size="0.0183 0.0175 0.001"/>
      </geometry>
    </collision>
  </link>
  
<joint name="sensor_02_04_fixed" type="fixed">
    <origin xyz="0.1001 0.0384 0.093" rpy="0 0 0" />
    <parent link="trunk" />
    <child link="sensor_02_04" />
    <axis xyz="0 0 0" />
  </joint>


<link name="sensor_02_05">
    <inertial>
      <origin xyz="0 -1.6653E-16 -5E-05" rpy="0 0 0" />
      <mass value="9.18E-07" />
      <inertia ixx="6.8927E-13" ixy="5.5033E-28" ixz="2.4805E-28" iyy="6.8927E-13" iyz="-3.5387E-24" izz="1.377E-12" />
    </inertial>
    <visual>
      <origin rpy="0 0 0" xyz="0 0 0"/>
      <geometry>
        <box size="0.0113 0.0105 0.001"/>
      </geometry>
      <material name="silver"/>
    </visual>
    <collision>
      <origin rpy="0 0 0" xyz="0 0 0"/>
      <geometry>
        <box size="0.0183 0.0175 0.001"/>
      </geometry>
    </collision>
  </link>
  
<joint name="sensor_02_05_fixed" type="fixed">
    <origin xyz="0.1001 0.0256 0.093" rpy="0 0 0" />
    <parent link="trunk" />
    <child link="sensor_02_05" />
    <axis xyz="0 0 0" />
  </joint>


<link name="sensor_02_06">
    <inertial>
      <origin xyz="0 -1.6653E-16 -5E-05" rpy="0 0 0" />
      <mass value="9.18E-07" />
      <inertia ixx="6.8927E-13" ixy="5.5033E-28" ixz="2.4805E-28" iyy="6.8927E-13" iyz="-3.5387E-24" izz="1.377E-12" />
    </inertial>
    <visual>
      <origin rpy="0 0 0" xyz="0 0 0"/>
      <geometry>
        <box size="0.0113 0.0105 0.001"/>
      </geometry>
      <material name="silver"/>
    </visual>
    <collision>
      <origin rpy="0 0 0" xyz="0 0 0"/>
      <geometry>
        <box size="0.0183 0.0175 0.001"/>
      </geometry>
    </collision>
  </link>
  
<joint name="sensor_02_06_fixed" type="fixed">
    <origin xyz="0.1001 0.0128 0.093" rpy="0 0 0" />
    <parent link="trunk" />
    <child link="sensor_02_06" />
    <axis xyz="0 0 0" />
  </joint>


<link name="sensor_02_07">
    <inertial>
      <origin xyz="0 -1.6653E-16 -5E-05" rpy="0 0 0" />
      <mass value="9.18E-07" />
      <inertia ixx="6.8927E-13" ixy="5.5033E-28" ixz="2.4805E-28" iyy="6.8927E-13" iyz="-3.5387E-24" izz="1.377E-12" />
    </inertial>
    <visual>
      <origin rpy="0 0 0" xyz="0 0 0"/>
      <geometry>
        <box size="0.0113 0.0105 0.001"/>
      </geometry>
      <material name="silver"/>
    </visual>
    <collision>
      <origin rpy="0 0 0" xyz="0 0 0"/>
      <geometry>
        <box size="0.0183 0.0175 0.001"/>
      </geometry>
    </collision>
  </link>
  
<joint name="sensor_02_07_fixed" type="fixed">
    <origin xyz="0.1001 -0.0 0.093" rpy="0 0 0" />
    <parent link="trunk" />
    <child link="sensor_02_07" />
    <axis xyz="0 0 0" />
  </joint>


<link name="sensor_02_08">
    <inertial>
      <origin xyz="0 -1.6653E-16 -5E-05" rpy="0 0 0" />
      <mass value="9.18E-07" />
      <inertia ixx="6.8927E-13" ixy="5.5033E-28" ixz="2.4805E-28" iyy="6.8927E-13" iyz="-3.5387E-24" izz="1.377E-12" />
    </inertial>
    <visual>
      <origin rpy="0 0 0" xyz="0 0 0"/>
      <geometry>
        <box size="0.0113 0.0105 0.001"/>
      </geometry>
      <material name="silver"/>
    </visual>
    <collision>
      <origin rpy="0 0 0" xyz="0 0 0"/>
      <geometry>
        <box size="0.0183 0.0175 0.001"/>
      </geometry>
    </collision>
  </link>
  
<joint name="sensor_02_08_fixed" type="fixed">
    <origin xyz="0.1001 -0.0128 0.093" rpy="0 0 0" />
    <parent link="trunk" />
    <child link="sensor_02_08" />
    <axis xyz="0 0 0" />
  </joint>


<link name="sensor_02_09">
    <inertial>
      <origin xyz="0 -1.6653E-16 -5E-05" rpy="0 0 0" />
      <mass value="9.18E-07" />
      <inertia ixx="6.8927E-13" ixy="5.5033E-28" ixz="2.4805E-28" iyy="6.8927E-13" iyz="-3.5387E-24" izz="1.377E-12" />
    </inertial>
    <visual>
      <origin rpy="0 0 0" xyz="0 0 0"/>
      <geometry>
        <box size="0.0113 0.0105 0.001"/>
      </geometry>
      <material name="silver"/>
    </visual>
    <collision>
      <origin rpy="0 0 0" xyz="0 0 0"/>
      <geometry>
        <box size="0.0183 0.0175 0.001"/>
      </geometry>
    </collision>
  </link>
  
<joint name="sensor_02_09_fixed" type="fixed">
    <origin xyz="0.1001 -0.0256 0.093" rpy="0 0 0" />
    <parent link="trunk" />
    <child link="sensor_02_09" />
    <axis xyz="0 0 0" />
  </joint>


<link name="sensor_02_10">
    <inertial>
      <origin xyz="0 -1.6653E-16 -5E-05" rpy="0 0 0" />
      <mass value="9.18E-07" />
      <inertia ixx="6.8927E-13" ixy="5.5033E-28" ixz="2.4805E-28" iyy="6.8927E-13" iyz="-3.5387E-24" izz="1.377E-12" />
    </inertial>
    <visual>
      <origin rpy="0 0 0" xyz="0 0 0"/>
      <geometry>
        <box size="0.0113 0.0105 0.001"/>
      </geometry>
      <material name="silver"/>
    </visual>
    <collision>
      <origin rpy="0 0 0" xyz="0 0 0"/>
      <geometry>
        <box size="0.0183 0.0175 0.001"/>
      </geometry>
    </collision>
  </link>
  
<joint name="sensor_02_10_fixed" type="fixed">
    <origin xyz="0.1001 -0.0384 0.093" rpy="0 0 0" />
    <parent link="trunk" />
    <child link="sensor_02_10" />
    <axis xyz="0 0 0" />
  </joint>


<link name="sensor_02_11">
    <inertial>
      <origin xyz="0 -1.6653E-16 -5E-05" rpy="0 0 0" />
      <mass value="9.18E-07" />
      <inertia ixx="6.8927E-13" ixy="5.5033E-28" ixz="2.4805E-28" iyy="6.8927E-13" iyz="-3.5387E-24" izz="1.377E-12" />
    </inertial>
    <visual>
      <origin rpy="0 0 0" xyz="0 0 0"/>
      <geometry>
        <box size="0.0113 0.0105 0.001"/>
      </geometry>
      <material name="silver"/>
    </visual>
    <collision>
      <origin rpy="0 0 0" xyz="0 0 0"/>
      <geometry>
        <box size="0.0183 0.0175 0.001"/>
      </geometry>
    </collision>
  </link>
  
<joint name="sensor_02_11_fixed" type="fixed">
    <origin xyz="0.1001 -0.0512 0.093" rpy="0 0 0" />
    <parent link="trunk" />
    <child link="sensor_02_11" />
    <axis xyz="0 0 0" />
  </joint>


<link name="sensor_02_12">
    <inertial>
      <origin xyz="0 -1.6653E-16 -5E-05" rpy="0 0 0" />
      <mass value="9.18E-07" />
      <inertia ixx="6.8927E-13" ixy="5.5033E-28" ixz="2.4805E-28" iyy="6.8927E-13" iyz="-3.5387E-24" izz="1.377E-12" />
    </inertial>
    <visual>
      <origin rpy="0 0 0" xyz="0 0 0"/>
      <geometry>
        <box size="0.0113 0.0105 0.001"/>
      </geometry>
      <material name="silver"/>
    </visual>
    <collision>
      <origin rpy="0 0 0" xyz="0 0 0"/>
      <geometry>
        <box size="0.0183 0.0175 0.001"/>
      </geometry>
    </collision>
  </link>
  
<joint name="sensor_02_12_fixed" type="fixed">
    <origin xyz="0.1001 -0.064 0.093" rpy="0 0 0" />
    <parent link="trunk" />
    <child link="sensor_02_12" />
    <axis xyz="0 0 0" />
  </joint>


<link name="sensor_02_13">
    <inertial>
      <origin xyz="0 -1.6653E-16 -5E-05" rpy="0 0 0" />
      <mass value="9.18E-07" />
      <inertia ixx="6.8927E-13" ixy="5.5033E-28" ixz="2.4805E-28" iyy="6.8927E-13" iyz="-3.5387E-24" izz="1.377E-12" />
    </inertial>
    <visual>
      <origin rpy="0 0 0" xyz="0 0 0"/>
      <geometry>
        <box size="0.0113 0.0105 0.001"/>
      </geometry>
      <material name="silver"/>
    </visual>
    <collision>
      <origin rpy="0 0 0" xyz="0 0 0"/>
      <geometry>
        <box size="0.0183 0.0175 0.001"/>
      </geometry>
    </collision>
  </link>
  
<joint name="sensor_02_13_fixed" type="fixed">
    <origin xyz="0.1001 -0.0768 0.093" rpy="0 0 0" />
    <parent link="trunk" />
    <child link="sensor_02_13" />
    <axis xyz="0 0 0" />
  </joint>


<link name="sensor_03_01">
    <inertial>
      <origin xyz="0 -1.6653E-16 -5E-05" rpy="0 0 0" />
      <mass value="9.18E-07" />
      <inertia ixx="6.8927E-13" ixy="5.5033E-28" ixz="2.4805E-28" iyy="6.8927E-13" iyz="-3.5387E-24" izz="1.377E-12" />
    </inertial>
    <visual>
      <origin rpy="0 0 0" xyz="0 0 0"/>
      <geometry>
        <box size="0.0113 0.0105 0.001"/>
      </geometry>
      <material name="silver"/>
    </visual>
    <collision>
      <origin rpy="0 0 0" xyz="0 0 0"/>
      <geometry>
        <box size="0.0183 0.0175 0.001"/>
      </geometry>
    </collision>
  </link>
  
<joint name="sensor_03_01_fixed" type="fixed">
    <origin xyz="0.0858 0.0768 0.093" rpy="0 0 0" />
    <parent link="trunk" />
    <child link="sensor_03_01" />
    <axis xyz="0 0 0" />
  </joint>


<link name="sensor_03_02">
    <inertial>
      <origin xyz="0 -1.6653E-16 -5E-05" rpy="0 0 0" />
      <mass value="9.18E-07" />
      <inertia ixx="6.8927E-13" ixy="5.5033E-28" ixz="2.4805E-28" iyy="6.8927E-13" iyz="-3.5387E-24" izz="1.377E-12" />
    </inertial>
    <visual>
      <origin rpy="0 0 0" xyz="0 0 0"/>
      <geometry>
        <box size="0.0113 0.0105 0.001"/>
      </geometry>
      <material name="silver"/>
    </visual>
    <collision>
      <origin rpy="0 0 0" xyz="0 0 0"/>
      <geometry>
        <box size="0.0183 0.0175 0.001"/>
      </geometry>
    </collision>
  </link>
  
<joint name="sensor_03_02_fixed" type="fixed">
    <origin xyz="0.0858 0.064 0.093" rpy="0 0 0" />
    <parent link="trunk" />
    <child link="sensor_03_02" />
    <axis xyz="0 0 0" />
  </joint>


<link name="sensor_03_03">
    <inertial>
      <origin xyz="0 -1.6653E-16 -5E-05" rpy="0 0 0" />
      <mass value="9.18E-07" />
      <inertia ixx="6.8927E-13" ixy="5.5033E-28" ixz="2.4805E-28" iyy="6.8927E-13" iyz="-3.5387E-24" izz="1.377E-12" />
    </inertial>
    <visual>
      <origin rpy="0 0 0" xyz="0 0 0"/>
      <geometry>
        <box size="0.0113 0.0105 0.001"/>
      </geometry>
      <material name="silver"/>
    </visual>
    <collision>
      <origin rpy="0 0 0" xyz="0 0 0"/>
      <geometry>
        <box size="0.0183 0.0175 0.001"/>
      </geometry>
    </collision>
  </link>
  
<joint name="sensor_03_03_fixed" type="fixed">
    <origin xyz="0.0858 0.0512 0.093" rpy="0 0 0" />
    <parent link="trunk" />
    <child link="sensor_03_03" />
    <axis xyz="0 0 0" />
  </joint>


<link name="sensor_03_04">
    <inertial>
      <origin xyz="0 -1.6653E-16 -5E-05" rpy="0 0 0" />
      <mass value="9.18E-07" />
      <inertia ixx="6.8927E-13" ixy="5.5033E-28" ixz="2.4805E-28" iyy="6.8927E-13" iyz="-3.5387E-24" izz="1.377E-12" />
    </inertial>
    <visual>
      <origin rpy="0 0 0" xyz="0 0 0"/>
      <geometry>
        <box size="0.0113 0.0105 0.001"/>
      </geometry>
      <material name="silver"/>
    </visual>
    <collision>
      <origin rpy="0 0 0" xyz="0 0 0"/>
      <geometry>
        <box size="0.0183 0.0175 0.001"/>
      </geometry>
    </collision>
  </link>
  
<joint name="sensor_03_04_fixed" type="fixed">
    <origin xyz="0.0858 0.0384 0.093" rpy="0 0 0" />
    <parent link="trunk" />
    <child link="sensor_03_04" />
    <axis xyz="0 0 0" />
  </joint>


<link name="sensor_03_05">
    <inertial>
      <origin xyz="0 -1.6653E-16 -5E-05" rpy="0 0 0" />
      <mass value="9.18E-07" />
      <inertia ixx="6.8927E-13" ixy="5.5033E-28" ixz="2.4805E-28" iyy="6.8927E-13" iyz="-3.5387E-24" izz="1.377E-12" />
    </inertial>
    <visual>
      <origin rpy="0 0 0" xyz="0 0 0"/>
      <geometry>
        <box size="0.0113 0.0105 0.001"/>
      </geometry>
      <material name="silver"/>
    </visual>
    <collision>
      <origin rpy="0 0 0" xyz="0 0 0"/>
      <geometry>
        <box size="0.0183 0.0175 0.001"/>
      </geometry>
    </collision>
  </link>
  
<joint name="sensor_03_05_fixed" type="fixed">
    <origin xyz="0.0858 0.0256 0.093" rpy="0 0 0" />
    <parent link="trunk" />
    <child link="sensor_03_05" />
    <axis xyz="0 0 0" />
  </joint>


<link name="sensor_03_06">
    <inertial>
      <origin xyz="0 -1.6653E-16 -5E-05" rpy="0 0 0" />
      <mass value="9.18E-07" />
      <inertia ixx="6.8927E-13" ixy="5.5033E-28" ixz="2.4805E-28" iyy="6.8927E-13" iyz="-3.5387E-24" izz="1.377E-12" />
    </inertial>
    <visual>
      <origin rpy="0 0 0" xyz="0 0 0"/>
      <geometry>
        <box size="0.0113 0.0105 0.001"/>
      </geometry>
      <material name="silver"/>
    </visual>
    <collision>
      <origin rpy="0 0 0" xyz="0 0 0"/>
      <geometry>
        <box size="0.0183 0.0175 0.001"/>
      </geometry>
    </collision>
  </link>
  
<joint name="sensor_03_06_fixed" type="fixed">
    <origin xyz="0.0858 0.0128 0.093" rpy="0 0 0" />
    <parent link="trunk" />
    <child link="sensor_03_06" />
    <axis xyz="0 0 0" />
  </joint>


<link name="sensor_03_07">
    <inertial>
      <origin xyz="0 -1.6653E-16 -5E-05" rpy="0 0 0" />
      <mass value="9.18E-07" />
      <inertia ixx="6.8927E-13" ixy="5.5033E-28" ixz="2.4805E-28" iyy="6.8927E-13" iyz="-3.5387E-24" izz="1.377E-12" />
    </inertial>
    <visual>
      <origin rpy="0 0 0" xyz="0 0 0"/>
      <geometry>
        <box size="0.0113 0.0105 0.001"/>
      </geometry>
      <material name="silver"/>
    </visual>
    <collision>
      <origin rpy="0 0 0" xyz="0 0 0"/>
      <geometry>
        <box size="0.0183 0.0175 0.001"/>
      </geometry>
    </collision>
  </link>
  
<joint name="sensor_03_07_fixed" type="fixed">
    <origin xyz="0.0858 -0.0 0.093" rpy="0 0 0" />
    <parent link="trunk" />
    <child link="sensor_03_07" />
    <axis xyz="0 0 0" />
  </joint>


<link name="sensor_03_08">
    <inertial>
      <origin xyz="0 -1.6653E-16 -5E-05" rpy="0 0 0" />
      <mass value="9.18E-07" />
      <inertia ixx="6.8927E-13" ixy="5.5033E-28" ixz="2.4805E-28" iyy="6.8927E-13" iyz="-3.5387E-24" izz="1.377E-12" />
    </inertial>
    <visual>
      <origin rpy="0 0 0" xyz="0 0 0"/>
      <geometry>
        <box size="0.0113 0.0105 0.001"/>
      </geometry>
      <material name="silver"/>
    </visual>
    <collision>
      <origin rpy="0 0 0" xyz="0 0 0"/>
      <geometry>
        <box size="0.0183 0.0175 0.001"/>
      </geometry>
    </collision>
  </link>
  
<joint name="sensor_03_08_fixed" type="fixed">
    <origin xyz="0.0858 -0.0128 0.093" rpy="0 0 0" />
    <parent link="trunk" />
    <child link="sensor_03_08" />
    <axis xyz="0 0 0" />
  </joint>


<link name="sensor_03_09">
    <inertial>
      <origin xyz="0 -1.6653E-16 -5E-05" rpy="0 0 0" />
      <mass value="9.18E-07" />
      <inertia ixx="6.8927E-13" ixy="5.5033E-28" ixz="2.4805E-28" iyy="6.8927E-13" iyz="-3.5387E-24" izz="1.377E-12" />
    </inertial>
    <visual>
      <origin rpy="0 0 0" xyz="0 0 0"/>
      <geometry>
        <box size="0.0113 0.0105 0.001"/>
      </geometry>
      <material name="silver"/>
    </visual>
    <collision>
      <origin rpy="0 0 0" xyz="0 0 0"/>
      <geometry>
        <box size="0.0183 0.0175 0.001"/>
      </geometry>
    </collision>
  </link>
  
<joint name="sensor_03_09_fixed" type="fixed">
    <origin xyz="0.0858 -0.0256 0.093" rpy="0 0 0" />
    <parent link="trunk" />
    <child link="sensor_03_09" />
    <axis xyz="0 0 0" />
  </joint>


<link name="sensor_03_10">
    <inertial>
      <origin xyz="0 -1.6653E-16 -5E-05" rpy="0 0 0" />
      <mass value="9.18E-07" />
      <inertia ixx="6.8927E-13" ixy="5.5033E-28" ixz="2.4805E-28" iyy="6.8927E-13" iyz="-3.5387E-24" izz="1.377E-12" />
    </inertial>
    <visual>
      <origin rpy="0 0 0" xyz="0 0 0"/>
      <geometry>
        <box size="0.0113 0.0105 0.001"/>
      </geometry>
      <material name="silver"/>
    </visual>
    <collision>
      <origin rpy="0 0 0" xyz="0 0 0"/>
      <geometry>
        <box size="0.0183 0.0175 0.001"/>
      </geometry>
    </collision>
  </link>
  
<joint name="sensor_03_10_fixed" type="fixed">
    <origin xyz="0.0858 -0.0384 0.093" rpy="0 0 0" />
    <parent link="trunk" />
    <child link="sensor_03_10" />
    <axis xyz="0 0 0" />
  </joint>


<link name="sensor_03_11">
    <inertial>
      <origin xyz="0 -1.6653E-16 -5E-05" rpy="0 0 0" />
      <mass value="9.18E-07" />
      <inertia ixx="6.8927E-13" ixy="5.5033E-28" ixz="2.4805E-28" iyy="6.8927E-13" iyz="-3.5387E-24" izz="1.377E-12" />
    </inertial>
    <visual>
      <origin rpy="0 0 0" xyz="0 0 0"/>
      <geometry>
        <box size="0.0113 0.0105 0.001"/>
      </geometry>
      <material name="silver"/>
    </visual>
    <collision>
      <origin rpy="0 0 0" xyz="0 0 0"/>
      <geometry>
        <box size="0.0183 0.0175 0.001"/>
      </geometry>
    </collision>
  </link>
  
<joint name="sensor_03_11_fixed" type="fixed">
    <origin xyz="0.0858 -0.0512 0.093" rpy="0 0 0" />
    <parent link="trunk" />
    <child link="sensor_03_11" />
    <axis xyz="0 0 0" />
  </joint>


<link name="sensor_03_12">
    <inertial>
      <origin xyz="0 -1.6653E-16 -5E-05" rpy="0 0 0" />
      <mass value="9.18E-07" />
      <inertia ixx="6.8927E-13" ixy="5.5033E-28" ixz="2.4805E-28" iyy="6.8927E-13" iyz="-3.5387E-24" izz="1.377E-12" />
    </inertial>
    <visual>
      <origin rpy="0 0 0" xyz="0 0 0"/>
      <geometry>
        <box size="0.0113 0.0105 0.001"/>
      </geometry>
      <material name="silver"/>
    </visual>
    <collision>
      <origin rpy="0 0 0" xyz="0 0 0"/>
      <geometry>
        <box size="0.0183 0.0175 0.001"/>
      </geometry>
    </collision>
  </link>
  
<joint name="sensor_03_12_fixed" type="fixed">
    <origin xyz="0.0858 -0.064 0.093" rpy="0 0 0" />
    <parent link="trunk" />
    <child link="sensor_03_12" />
    <axis xyz="0 0 0" />
  </joint>


<link name="sensor_03_13">
    <inertial>
      <origin xyz="0 -1.6653E-16 -5E-05" rpy="0 0 0" />
      <mass value="9.18E-07" />
      <inertia ixx="6.8927E-13" ixy="5.5033E-28" ixz="2.4805E-28" iyy="6.8927E-13" iyz="-3.5387E-24" izz="1.377E-12" />
    </inertial>
    <visual>
      <origin rpy="0 0 0" xyz="0 0 0"/>
      <geometry>
        <box size="0.0113 0.0105 0.001"/>
      </geometry>
      <material name="silver"/>
    </visual>
    <collision>
      <origin rpy="0 0 0" xyz="0 0 0"/>
      <geometry>
        <box size="0.0183 0.0175 0.001"/>
      </geometry>
    </collision>
  </link>
  
<joint name="sensor_03_13_fixed" type="fixed">
    <origin xyz="0.0858 -0.0768 0.093" rpy="0 0 0" />
    <parent link="trunk" />
    <child link="sensor_03_13" />
    <axis xyz="0 0 0" />
  </joint>


<link name="sensor_04_01">
    <inertial>
      <origin xyz="0 -1.6653E-16 -5E-05" rpy="0 0 0" />
      <mass value="9.18E-07" />
      <inertia ixx="6.8927E-13" ixy="5.5033E-28" ixz="2.4805E-28" iyy="6.8927E-13" iyz="-3.5387E-24" izz="1.377E-12" />
    </inertial>
    <visual>
      <origin rpy="0 0 0" xyz="0 0 0"/>
      <geometry>
        <box size="0.0113 0.0105 0.001"/>
      </geometry>
      <material name="silver"/>
    </visual>
    <collision>
      <origin rpy="0 0 0" xyz="0 0 0"/>
      <geometry>
        <box size="0.0183 0.0175 0.001"/>
      </geometry>
    </collision>
  </link>
  
<joint name="sensor_04_01_fixed" type="fixed">
    <origin xyz="0.0715 0.0768 0.093" rpy="0 0 0" />
    <parent link="trunk" />
    <child link="sensor_04_01" />
    <axis xyz="0 0 0" />
  </joint>


<link name="sensor_04_02">
    <inertial>
      <origin xyz="0 -1.6653E-16 -5E-05" rpy="0 0 0" />
      <mass value="9.18E-07" />
      <inertia ixx="6.8927E-13" ixy="5.5033E-28" ixz="2.4805E-28" iyy="6.8927E-13" iyz="-3.5387E-24" izz="1.377E-12" />
    </inertial>
    <visual>
      <origin rpy="0 0 0" xyz="0 0 0"/>
      <geometry>
        <box size="0.0113 0.0105 0.001"/>
      </geometry>
      <material name="silver"/>
    </visual>
    <collision>
      <origin rpy="0 0 0" xyz="0 0 0"/>
      <geometry>
        <box size="0.0183 0.0175 0.001"/>
      </geometry>
    </collision>
  </link>
  
<joint name="sensor_04_02_fixed" type="fixed">
    <origin xyz="0.0715 0.064 0.093" rpy="0 0 0" />
    <parent link="trunk" />
    <child link="sensor_04_02" />
    <axis xyz="0 0 0" />
  </joint>


<link name="sensor_04_03">
    <inertial>
      <origin xyz="0 -1.6653E-16 -5E-05" rpy="0 0 0" />
      <mass value="9.18E-07" />
      <inertia ixx="6.8927E-13" ixy="5.5033E-28" ixz="2.4805E-28" iyy="6.8927E-13" iyz="-3.5387E-24" izz="1.377E-12" />
    </inertial>
    <visual>
      <origin rpy="0 0 0" xyz="0 0 0"/>
      <geometry>
        <box size="0.0113 0.0105 0.001"/>
      </geometry>
      <material name="silver"/>
    </visual>
    <collision>
      <origin rpy="0 0 0" xyz="0 0 0"/>
      <geometry>
        <box size="0.0183 0.0175 0.001"/>
      </geometry>
    </collision>
  </link>
  
<joint name="sensor_04_03_fixed" type="fixed">
    <origin xyz="0.0715 0.0512 0.093" rpy="0 0 0" />
    <parent link="trunk" />
    <child link="sensor_04_03" />
    <axis xyz="0 0 0" />
  </joint>


<link name="sensor_04_04">
    <inertial>
      <origin xyz="0 -1.6653E-16 -5E-05" rpy="0 0 0" />
      <mass value="9.18E-07" />
      <inertia ixx="6.8927E-13" ixy="5.5033E-28" ixz="2.4805E-28" iyy="6.8927E-13" iyz="-3.5387E-24" izz="1.377E-12" />
    </inertial>
    <visual>
      <origin rpy="0 0 0" xyz="0 0 0"/>
      <geometry>
        <box size="0.0113 0.0105 0.001"/>
      </geometry>
      <material name="silver"/>
    </visual>
    <collision>
      <origin rpy="0 0 0" xyz="0 0 0"/>
      <geometry>
        <box size="0.0183 0.0175 0.001"/>
      </geometry>
    </collision>
  </link>
  
<joint name="sensor_04_04_fixed" type="fixed">
    <origin xyz="0.0715 0.0384 0.093" rpy="0 0 0" />
    <parent link="trunk" />
    <child link="sensor_04_04" />
    <axis xyz="0 0 0" />
  </joint>


<link name="sensor_04_05">
    <inertial>
      <origin xyz="0 -1.6653E-16 -5E-05" rpy="0 0 0" />
      <mass value="9.18E-07" />
      <inertia ixx="6.8927E-13" ixy="5.5033E-28" ixz="2.4805E-28" iyy="6.8927E-13" iyz="-3.5387E-24" izz="1.377E-12" />
    </inertial>
    <visual>
      <origin rpy="0 0 0" xyz="0 0 0"/>
      <geometry>
        <box size="0.0113 0.0105 0.001"/>
      </geometry>
      <material name="silver"/>
    </visual>
    <collision>
      <origin rpy="0 0 0" xyz="0 0 0"/>
      <geometry>
        <box size="0.0183 0.0175 0.001"/>
      </geometry>
    </collision>
  </link>
  
<joint name="sensor_04_05_fixed" type="fixed">
    <origin xyz="0.0715 0.0256 0.093" rpy="0 0 0" />
    <parent link="trunk" />
    <child link="sensor_04_05" />
    <axis xyz="0 0 0" />
  </joint>


<link name="sensor_04_06">
    <inertial>
      <origin xyz="0 -1.6653E-16 -5E-05" rpy="0 0 0" />
      <mass value="9.18E-07" />
      <inertia ixx="6.8927E-13" ixy="5.5033E-28" ixz="2.4805E-28" iyy="6.8927E-13" iyz="-3.5387E-24" izz="1.377E-12" />
    </inertial>
    <visual>
      <origin rpy="0 0 0" xyz="0 0 0"/>
      <geometry>
        <box size="0.0113 0.0105 0.001"/>
      </geometry>
      <material name="silver"/>
    </visual>
    <collision>
      <origin rpy="0 0 0" xyz="0 0 0"/>
      <geometry>
        <box size="0.0183 0.0175 0.001"/>
      </geometry>
    </collision>
  </link>
  
<joint name="sensor_04_06_fixed" type="fixed">
    <origin xyz="0.0715 0.0128 0.093" rpy="0 0 0" />
    <parent link="trunk" />
    <child link="sensor_04_06" />
    <axis xyz="0 0 0" />
  </joint>


<link name="sensor_04_07">
    <inertial>
      <origin xyz="0 -1.6653E-16 -5E-05" rpy="0 0 0" />
      <mass value="9.18E-07" />
      <inertia ixx="6.8927E-13" ixy="5.5033E-28" ixz="2.4805E-28" iyy="6.8927E-13" iyz="-3.5387E-24" izz="1.377E-12" />
    </inertial>
    <visual>
      <origin rpy="0 0 0" xyz="0 0 0"/>
      <geometry>
        <box size="0.0113 0.0105 0.001"/>
      </geometry>
      <material name="silver"/>
    </visual>
    <collision>
      <origin rpy="0 0 0" xyz="0 0 0"/>
      <geometry>
        <box size="0.0183 0.0175 0.001"/>
      </geometry>
    </collision>
  </link>
  
<joint name="sensor_04_07_fixed" type="fixed">
    <origin xyz="0.0715 -0.0 0.093" rpy="0 0 0" />
    <parent link="trunk" />
    <child link="sensor_04_07" />
    <axis xyz="0 0 0" />
  </joint>


<link name="sensor_04_08">
    <inertial>
      <origin xyz="0 -1.6653E-16 -5E-05" rpy="0 0 0" />
      <mass value="9.18E-07" />
      <inertia ixx="6.8927E-13" ixy="5.5033E-28" ixz="2.4805E-28" iyy="6.8927E-13" iyz="-3.5387E-24" izz="1.377E-12" />
    </inertial>
    <visual>
      <origin rpy="0 0 0" xyz="0 0 0"/>
      <geometry>
        <box size="0.0113 0.0105 0.001"/>
      </geometry>
      <material name="silver"/>
    </visual>
    <collision>
      <origin rpy="0 0 0" xyz="0 0 0"/>
      <geometry>
        <box size="0.0183 0.0175 0.001"/>
      </geometry>
    </collision>
  </link>
  
<joint name="sensor_04_08_fixed" type="fixed">
    <origin xyz="0.0715 -0.0128 0.093" rpy="0 0 0" />
    <parent link="trunk" />
    <child link="sensor_04_08" />
    <axis xyz="0 0 0" />
  </joint>


<link name="sensor_04_09">
    <inertial>
      <origin xyz="0 -1.6653E-16 -5E-05" rpy="0 0 0" />
      <mass value="9.18E-07" />
      <inertia ixx="6.8927E-13" ixy="5.5033E-28" ixz="2.4805E-28" iyy="6.8927E-13" iyz="-3.5387E-24" izz="1.377E-12" />
    </inertial>
    <visual>
      <origin rpy="0 0 0" xyz="0 0 0"/>
      <geometry>
        <box size="0.0113 0.0105 0.001"/>
      </geometry>
      <material name="silver"/>
    </visual>
    <collision>
      <origin rpy="0 0 0" xyz="0 0 0"/>
      <geometry>
        <box size="0.0183 0.0175 0.001"/>
      </geometry>
    </collision>
  </link>
  
<joint name="sensor_04_09_fixed" type="fixed">
    <origin xyz="0.0715 -0.0256 0.093" rpy="0 0 0" />
    <parent link="trunk" />
    <child link="sensor_04_09" />
    <axis xyz="0 0 0" />
  </joint>


<link name="sensor_04_10">
    <inertial>
      <origin xyz="0 -1.6653E-16 -5E-05" rpy="0 0 0" />
      <mass value="9.18E-07" />
      <inertia ixx="6.8927E-13" ixy="5.5033E-28" ixz="2.4805E-28" iyy="6.8927E-13" iyz="-3.5387E-24" izz="1.377E-12" />
    </inertial>
    <visual>
      <origin rpy="0 0 0" xyz="0 0 0"/>
      <geometry>
        <box size="0.0113 0.0105 0.001"/>
      </geometry>
      <material name="silver"/>
    </visual>
    <collision>
      <origin rpy="0 0 0" xyz="0 0 0"/>
      <geometry>
        <box size="0.0183 0.0175 0.001"/>
      </geometry>
    </collision>
  </link>
  
<joint name="sensor_04_10_fixed" type="fixed">
    <origin xyz="0.0715 -0.0384 0.093" rpy="0 0 0" />
    <parent link="trunk" />
    <child link="sensor_04_10" />
    <axis xyz="0 0 0" />
  </joint>


<link name="sensor_04_11">
    <inertial>
      <origin xyz="0 -1.6653E-16 -5E-05" rpy="0 0 0" />
      <mass value="9.18E-07" />
      <inertia ixx="6.8927E-13" ixy="5.5033E-28" ixz="2.4805E-28" iyy="6.8927E-13" iyz="-3.5387E-24" izz="1.377E-12" />
    </inertial>
    <visual>
      <origin rpy="0 0 0" xyz="0 0 0"/>
      <geometry>
        <box size="0.0113 0.0105 0.001"/>
      </geometry>
      <material name="silver"/>
    </visual>
    <collision>
      <origin rpy="0 0 0" xyz="0 0 0"/>
      <geometry>
        <box size="0.0183 0.0175 0.001"/>
      </geometry>
    </collision>
  </link>
  
<joint name="sensor_04_11_fixed" type="fixed">
    <origin xyz="0.0715 -0.0512 0.093" rpy="0 0 0" />
    <parent link="trunk" />
    <child link="sensor_04_11" />
    <axis xyz="0 0 0" />
  </joint>


<link name="sensor_04_12">
    <inertial>
      <origin xyz="0 -1.6653E-16 -5E-05" rpy="0 0 0" />
      <mass value="9.18E-07" />
      <inertia ixx="6.8927E-13" ixy="5.5033E-28" ixz="2.4805E-28" iyy="6.8927E-13" iyz="-3.5387E-24" izz="1.377E-12" />
    </inertial>
    <visual>
      <origin rpy="0 0 0" xyz="0 0 0"/>
      <geometry>
        <box size="0.0113 0.0105 0.001"/>
      </geometry>
      <material name="silver"/>
    </visual>
    <collision>
      <origin rpy="0 0 0" xyz="0 0 0"/>
      <geometry>
        <box size="0.0183 0.0175 0.001"/>
      </geometry>
    </collision>
  </link>
  
<joint name="sensor_04_12_fixed" type="fixed">
    <origin xyz="0.0715 -0.064 0.093" rpy="0 0 0" />
    <parent link="trunk" />
    <child link="sensor_04_12" />
    <axis xyz="0 0 0" />
  </joint>


<link name="sensor_04_13">
    <inertial>
      <origin xyz="0 -1.6653E-16 -5E-05" rpy="0 0 0" />
      <mass value="9.18E-07" />
      <inertia ixx="6.8927E-13" ixy="5.5033E-28" ixz="2.4805E-28" iyy="6.8927E-13" iyz="-3.5387E-24" izz="1.377E-12" />
    </inertial>
    <visual>
      <origin rpy="0 0 0" xyz="0 0 0"/>
      <geometry>
        <box size="0.0113 0.0105 0.001"/>
      </geometry>
      <material name="silver"/>
    </visual>
    <collision>
      <origin rpy="0 0 0" xyz="0 0 0"/>
      <geometry>
        <box size="0.0183 0.0175 0.001"/>
      </geometry>
    </collision>
  </link>
  
<joint name="sensor_04_13_fixed" type="fixed">
    <origin xyz="0.0715 -0.0768 0.093" rpy="0 0 0" />
    <parent link="trunk" />
    <child link="sensor_04_13" />
    <axis xyz="0 0 0" />
  </joint>


<link name="sensor_05_01">
    <inertial>
      <origin xyz="0 -1.6653E-16 -5E-05" rpy="0 0 0" />
      <mass value="9.18E-07" />
      <inertia ixx="6.8927E-13" ixy="5.5033E-28" ixz="2.4805E-28" iyy="6.8927E-13" iyz="-3.5387E-24" izz="1.377E-12" />
    </inertial>
    <visual>
      <origin rpy="0 0 0" xyz="0 0 0"/>
      <geometry>
        <box size="0.0113 0.0105 0.001"/>
      </geometry>
      <material name="silver"/>
    </visual>
    <collision>
      <origin rpy="0 0 0" xyz="0 0 0"/>
      <geometry>
        <box size="0.0183 0.0175 0.001"/>
      </geometry>
    </collision>
  </link>
  
<joint name="sensor_05_01_fixed" type="fixed">
    <origin xyz="0.0572 0.0768 0.093" rpy="0 0 0" />
    <parent link="trunk" />
    <child link="sensor_05_01" />
    <axis xyz="0 0 0" />
  </joint>


<link name="sensor_05_02">
    <inertial>
      <origin xyz="0 -1.6653E-16 -5E-05" rpy="0 0 0" />
      <mass value="9.18E-07" />
      <inertia ixx="6.8927E-13" ixy="5.5033E-28" ixz="2.4805E-28" iyy="6.8927E-13" iyz="-3.5387E-24" izz="1.377E-12" />
    </inertial>
    <visual>
      <origin rpy="0 0 0" xyz="0 0 0"/>
      <geometry>
        <box size="0.0113 0.0105 0.001"/>
      </geometry>
      <material name="silver"/>
    </visual>
    <collision>
      <origin rpy="0 0 0" xyz="0 0 0"/>
      <geometry>
        <box size="0.0183 0.0175 0.001"/>
      </geometry>
    </collision>
  </link>
  
<joint name="sensor_05_02_fixed" type="fixed">
    <origin xyz="0.0572 0.064 0.093" rpy="0 0 0" />
    <parent link="trunk" />
    <child link="sensor_05_02" />
    <axis xyz="0 0 0" />
  </joint>


<link name="sensor_05_03">
    <inertial>
      <origin xyz="0 -1.6653E-16 -5E-05" rpy="0 0 0" />
      <mass value="9.18E-07" />
      <inertia ixx="6.8927E-13" ixy="5.5033E-28" ixz="2.4805E-28" iyy="6.8927E-13" iyz="-3.5387E-24" izz="1.377E-12" />
    </inertial>
    <visual>
      <origin rpy="0 0 0" xyz="0 0 0"/>
      <geometry>
        <box size="0.0113 0.0105 0.001"/>
      </geometry>
      <material name="silver"/>
    </visual>
    <collision>
      <origin rpy="0 0 0" xyz="0 0 0"/>
      <geometry>
        <box size="0.0183 0.0175 0.001"/>
      </geometry>
    </collision>
  </link>
  
<joint name="sensor_05_03_fixed" type="fixed">
    <origin xyz="0.0572 0.0512 0.093" rpy="0 0 0" />
    <parent link="trunk" />
    <child link="sensor_05_03" />
    <axis xyz="0 0 0" />
  </joint>


<link name="sensor_05_04">
    <inertial>
      <origin xyz="0 -1.6653E-16 -5E-05" rpy="0 0 0" />
      <mass value="9.18E-07" />
      <inertia ixx="6.8927E-13" ixy="5.5033E-28" ixz="2.4805E-28" iyy="6.8927E-13" iyz="-3.5387E-24" izz="1.377E-12" />
    </inertial>
    <visual>
      <origin rpy="0 0 0" xyz="0 0 0"/>
      <geometry>
        <box size="0.0113 0.0105 0.001"/>
      </geometry>
      <material name="silver"/>
    </visual>
    <collision>
      <origin rpy="0 0 0" xyz="0 0 0"/>
      <geometry>
        <box size="0.0183 0.0175 0.001"/>
      </geometry>
    </collision>
  </link>
  
<joint name="sensor_05_04_fixed" type="fixed">
    <origin xyz="0.0572 0.0384 0.093" rpy="0 0 0" />
    <parent link="trunk" />
    <child link="sensor_05_04" />
    <axis xyz="0 0 0" />
  </joint>


<link name="sensor_05_05">
    <inertial>
      <origin xyz="0 -1.6653E-16 -5E-05" rpy="0 0 0" />
      <mass value="9.18E-07" />
      <inertia ixx="6.8927E-13" ixy="5.5033E-28" ixz="2.4805E-28" iyy="6.8927E-13" iyz="-3.5387E-24" izz="1.377E-12" />
    </inertial>
    <visual>
      <origin rpy="0 0 0" xyz="0 0 0"/>
      <geometry>
        <box size="0.0113 0.0105 0.001"/>
      </geometry>
      <material name="silver"/>
    </visual>
    <collision>
      <origin rpy="0 0 0" xyz="0 0 0"/>
      <geometry>
        <box size="0.0183 0.0175 0.001"/>
      </geometry>
    </collision>
  </link>
  
<joint name="sensor_05_05_fixed" type="fixed">
    <origin xyz="0.0572 0.0256 0.093" rpy="0 0 0" />
    <parent link="trunk" />
    <child link="sensor_05_05" />
    <axis xyz="0 0 0" />
  </joint>


<link name="sensor_05_06">
    <inertial>
      <origin xyz="0 -1.6653E-16 -5E-05" rpy="0 0 0" />
      <mass value="9.18E-07" />
      <inertia ixx="6.8927E-13" ixy="5.5033E-28" ixz="2.4805E-28" iyy="6.8927E-13" iyz="-3.5387E-24" izz="1.377E-12" />
    </inertial>
    <visual>
      <origin rpy="0 0 0" xyz="0 0 0"/>
      <geometry>
        <box size="0.0113 0.0105 0.001"/>
      </geometry>
      <material name="silver"/>
    </visual>
    <collision>
      <origin rpy="0 0 0" xyz="0 0 0"/>
      <geometry>
        <box size="0.0183 0.0175 0.001"/>
      </geometry>
    </collision>
  </link>
  
<joint name="sensor_05_06_fixed" type="fixed">
    <origin xyz="0.0572 0.0128 0.093" rpy="0 0 0" />
    <parent link="trunk" />
    <child link="sensor_05_06" />
    <axis xyz="0 0 0" />
  </joint>


<link name="sensor_05_07">
    <inertial>
      <origin xyz="0 -1.6653E-16 -5E-05" rpy="0 0 0" />
      <mass value="9.18E-07" />
      <inertia ixx="6.8927E-13" ixy="5.5033E-28" ixz="2.4805E-28" iyy="6.8927E-13" iyz="-3.5387E-24" izz="1.377E-12" />
    </inertial>
    <visual>
      <origin rpy="0 0 0" xyz="0 0 0"/>
      <geometry>
        <box size="0.0113 0.0105 0.001"/>
      </geometry>
      <material name="silver"/>
    </visual>
    <collision>
      <origin rpy="0 0 0" xyz="0 0 0"/>
      <geometry>
        <box size="0.0183 0.0175 0.001"/>
      </geometry>
    </collision>
  </link>
  
<joint name="sensor_05_07_fixed" type="fixed">
    <origin xyz="0.0572 -0.0 0.093" rpy="0 0 0" />
    <parent link="trunk" />
    <child link="sensor_05_07" />
    <axis xyz="0 0 0" />
  </joint>


<link name="sensor_05_08">
    <inertial>
      <origin xyz="0 -1.6653E-16 -5E-05" rpy="0 0 0" />
      <mass value="9.18E-07" />
      <inertia ixx="6.8927E-13" ixy="5.5033E-28" ixz="2.4805E-28" iyy="6.8927E-13" iyz="-3.5387E-24" izz="1.377E-12" />
    </inertial>
    <visual>
      <origin rpy="0 0 0" xyz="0 0 0"/>
      <geometry>
        <box size="0.0113 0.0105 0.001"/>
      </geometry>
      <material name="silver"/>
    </visual>
    <collision>
      <origin rpy="0 0 0" xyz="0 0 0"/>
      <geometry>
        <box size="0.0183 0.0175 0.001"/>
      </geometry>
    </collision>
  </link>
  
<joint name="sensor_05_08_fixed" type="fixed">
    <origin xyz="0.0572 -0.0128 0.093" rpy="0 0 0" />
    <parent link="trunk" />
    <child link="sensor_05_08" />
    <axis xyz="0 0 0" />
  </joint>


<link name="sensor_05_09">
    <inertial>
      <origin xyz="0 -1.6653E-16 -5E-05" rpy="0 0 0" />
      <mass value="9.18E-07" />
      <inertia ixx="6.8927E-13" ixy="5.5033E-28" ixz="2.4805E-28" iyy="6.8927E-13" iyz="-3.5387E-24" izz="1.377E-12" />
    </inertial>
    <visual>
      <origin rpy="0 0 0" xyz="0 0 0"/>
      <geometry>
        <box size="0.0113 0.0105 0.001"/>
      </geometry>
      <material name="silver"/>
    </visual>
    <collision>
      <origin rpy="0 0 0" xyz="0 0 0"/>
      <geometry>
        <box size="0.0183 0.0175 0.001"/>
      </geometry>
    </collision>
  </link>
  
<joint name="sensor_05_09_fixed" type="fixed">
    <origin xyz="0.0572 -0.0256 0.093" rpy="0 0 0" />
    <parent link="trunk" />
    <child link="sensor_05_09" />
    <axis xyz="0 0 0" />
  </joint>


<link name="sensor_05_10">
    <inertial>
      <origin xyz="0 -1.6653E-16 -5E-05" rpy="0 0 0" />
      <mass value="9.18E-07" />
      <inertia ixx="6.8927E-13" ixy="5.5033E-28" ixz="2.4805E-28" iyy="6.8927E-13" iyz="-3.5387E-24" izz="1.377E-12" />
    </inertial>
    <visual>
      <origin rpy="0 0 0" xyz="0 0 0"/>
      <geometry>
        <box size="0.0113 0.0105 0.001"/>
      </geometry>
      <material name="silver"/>
    </visual>
    <collision>
      <origin rpy="0 0 0" xyz="0 0 0"/>
      <geometry>
        <box size="0.0183 0.0175 0.001"/>
      </geometry>
    </collision>
  </link>
  
<joint name="sensor_05_10_fixed" type="fixed">
    <origin xyz="0.0572 -0.0384 0.093" rpy="0 0 0" />
    <parent link="trunk" />
    <child link="sensor_05_10" />
    <axis xyz="0 0 0" />
  </joint>


<link name="sensor_05_11">
    <inertial>
      <origin xyz="0 -1.6653E-16 -5E-05" rpy="0 0 0" />
      <mass value="9.18E-07" />
      <inertia ixx="6.8927E-13" ixy="5.5033E-28" ixz="2.4805E-28" iyy="6.8927E-13" iyz="-3.5387E-24" izz="1.377E-12" />
    </inertial>
    <visual>
      <origin rpy="0 0 0" xyz="0 0 0"/>
      <geometry>
        <box size="0.0113 0.0105 0.001"/>
      </geometry>
      <material name="silver"/>
    </visual>
    <collision>
      <origin rpy="0 0 0" xyz="0 0 0"/>
      <geometry>
        <box size="0.0183 0.0175 0.001"/>
      </geometry>
    </collision>
  </link>
  
<joint name="sensor_05_11_fixed" type="fixed">
    <origin xyz="0.0572 -0.0512 0.093" rpy="0 0 0" />
    <parent link="trunk" />
    <child link="sensor_05_11" />
    <axis xyz="0 0 0" />
  </joint>


<link name="sensor_05_12">
    <inertial>
      <origin xyz="0 -1.6653E-16 -5E-05" rpy="0 0 0" />
      <mass value="9.18E-07" />
      <inertia ixx="6.8927E-13" ixy="5.5033E-28" ixz="2.4805E-28" iyy="6.8927E-13" iyz="-3.5387E-24" izz="1.377E-12" />
    </inertial>
    <visual>
      <origin rpy="0 0 0" xyz="0 0 0"/>
      <geometry>
        <box size="0.0113 0.0105 0.001"/>
      </geometry>
      <material name="silver"/>
    </visual>
    <collision>
      <origin rpy="0 0 0" xyz="0 0 0"/>
      <geometry>
        <box size="0.0183 0.0175 0.001"/>
      </geometry>
    </collision>
  </link>
  
<joint name="sensor_05_12_fixed" type="fixed">
    <origin xyz="0.0572 -0.064 0.093" rpy="0 0 0" />
    <parent link="trunk" />
    <child link="sensor_05_12" />
    <axis xyz="0 0 0" />
  </joint>


<link name="sensor_05_13">
    <inertial>
      <origin xyz="0 -1.6653E-16 -5E-05" rpy="0 0 0" />
      <mass value="9.18E-07" />
      <inertia ixx="6.8927E-13" ixy="5.5033E-28" ixz="2.4805E-28" iyy="6.8927E-13" iyz="-3.5387E-24" izz="1.377E-12" />
    </inertial>
    <visual>
      <origin rpy="0 0 0" xyz="0 0 0"/>
      <geometry>
        <box size="0.0113 0.0105 0.001"/>
      </geometry>
      <material name="silver"/>
    </visual>
    <collision>
      <origin rpy="0 0 0" xyz="0 0 0"/>
      <geometry>
        <box size="0.0183 0.0175 0.001"/>
      </geometry>
    </collision>
  </link>
  
<joint name="sensor_05_13_fixed" type="fixed">
    <origin xyz="0.0572 -0.0768 0.093" rpy="0 0 0" />
    <parent link="trunk" />
    <child link="sensor_05_13" />
    <axis xyz="0 0 0" />
  </joint>


<link name="sensor_06_01">
    <inertial>
      <origin xyz="0 -1.6653E-16 -5E-05" rpy="0 0 0" />
      <mass value="9.18E-07" />
      <inertia ixx="6.8927E-13" ixy="5.5033E-28" ixz="2.4805E-28" iyy="6.8927E-13" iyz="-3.5387E-24" izz="1.377E-12" />
    </inertial>
    <visual>
      <origin rpy="0 0 0" xyz="0 0 0"/>
      <geometry>
        <box size="0.0113 0.0105 0.001"/>
      </geometry>
      <material name="silver"/>
    </visual>
    <collision>
      <origin rpy="0 0 0" xyz="0 0 0"/>
      <geometry>
        <box size="0.0183 0.0175 0.001"/>
      </geometry>
    </collision>
  </link>
  
<joint name="sensor_06_01_fixed" type="fixed">
    <origin xyz="0.0429 0.0768 0.093" rpy="0 0 0" />
    <parent link="trunk" />
    <child link="sensor_06_01" />
    <axis xyz="0 0 0" />
  </joint>


<link name="sensor_06_02">
    <inertial>
      <origin xyz="0 -1.6653E-16 -5E-05" rpy="0 0 0" />
      <mass value="9.18E-07" />
      <inertia ixx="6.8927E-13" ixy="5.5033E-28" ixz="2.4805E-28" iyy="6.8927E-13" iyz="-3.5387E-24" izz="1.377E-12" />
    </inertial>
    <visual>
      <origin rpy="0 0 0" xyz="0 0 0"/>
      <geometry>
        <box size="0.0113 0.0105 0.001"/>
      </geometry>
      <material name="silver"/>
    </visual>
    <collision>
      <origin rpy="0 0 0" xyz="0 0 0"/>
      <geometry>
        <box size="0.0183 0.0175 0.001"/>
      </geometry>
    </collision>
  </link>
  
<joint name="sensor_06_02_fixed" type="fixed">
    <origin xyz="0.0429 0.064 0.093" rpy="0 0 0" />
    <parent link="trunk" />
    <child link="sensor_06_02" />
    <axis xyz="0 0 0" />
  </joint>


<link name="sensor_06_03">
    <inertial>
      <origin xyz="0 -1.6653E-16 -5E-05" rpy="0 0 0" />
      <mass value="9.18E-07" />
      <inertia ixx="6.8927E-13" ixy="5.5033E-28" ixz="2.4805E-28" iyy="6.8927E-13" iyz="-3.5387E-24" izz="1.377E-12" />
    </inertial>
    <visual>
      <origin rpy="0 0 0" xyz="0 0 0"/>
      <geometry>
        <box size="0.0113 0.0105 0.001"/>
      </geometry>
      <material name="silver"/>
    </visual>
    <collision>
      <origin rpy="0 0 0" xyz="0 0 0"/>
      <geometry>
        <box size="0.0183 0.0175 0.001"/>
      </geometry>
    </collision>
  </link>
  
<joint name="sensor_06_03_fixed" type="fixed">
    <origin xyz="0.0429 0.0512 0.093" rpy="0 0 0" />
    <parent link="trunk" />
    <child link="sensor_06_03" />
    <axis xyz="0 0 0" />
  </joint>


<link name="sensor_06_04">
    <inertial>
      <origin xyz="0 -1.6653E-16 -5E-05" rpy="0 0 0" />
      <mass value="9.18E-07" />
      <inertia ixx="6.8927E-13" ixy="5.5033E-28" ixz="2.4805E-28" iyy="6.8927E-13" iyz="-3.5387E-24" izz="1.377E-12" />
    </inertial>
    <visual>
      <origin rpy="0 0 0" xyz="0 0 0"/>
      <geometry>
        <box size="0.0113 0.0105 0.001"/>
      </geometry>
      <material name="silver"/>
    </visual>
    <collision>
      <origin rpy="0 0 0" xyz="0 0 0"/>
      <geometry>
        <box size="0.0183 0.0175 0.001"/>
      </geometry>
    </collision>
  </link>
  
<joint name="sensor_06_04_fixed" type="fixed">
    <origin xyz="0.0429 0.0384 0.093" rpy="0 0 0" />
    <parent link="trunk" />
    <child link="sensor_06_04" />
    <axis xyz="0 0 0" />
  </joint>


<link name="sensor_06_05">
    <inertial>
      <origin xyz="0 -1.6653E-16 -5E-05" rpy="0 0 0" />
      <mass value="9.18E-07" />
      <inertia ixx="6.8927E-13" ixy="5.5033E-28" ixz="2.4805E-28" iyy="6.8927E-13" iyz="-3.5387E-24" izz="1.377E-12" />
    </inertial>
    <visual>
      <origin rpy="0 0 0" xyz="0 0 0"/>
      <geometry>
        <box size="0.0113 0.0105 0.001"/>
      </geometry>
      <material name="silver"/>
    </visual>
    <collision>
      <origin rpy="0 0 0" xyz="0 0 0"/>
      <geometry>
        <box size="0.0183 0.0175 0.001"/>
      </geometry>
    </collision>
  </link>
  
<joint name="sensor_06_05_fixed" type="fixed">
    <origin xyz="0.0429 0.0256 0.093" rpy="0 0 0" />
    <parent link="trunk" />
    <child link="sensor_06_05" />
    <axis xyz="0 0 0" />
  </joint>


<link name="sensor_06_06">
    <inertial>
      <origin xyz="0 -1.6653E-16 -5E-05" rpy="0 0 0" />
      <mass value="9.18E-07" />
      <inertia ixx="6.8927E-13" ixy="5.5033E-28" ixz="2.4805E-28" iyy="6.8927E-13" iyz="-3.5387E-24" izz="1.377E-12" />
    </inertial>
    <visual>
      <origin rpy="0 0 0" xyz="0 0 0"/>
      <geometry>
        <box size="0.0113 0.0105 0.001"/>
      </geometry>
      <material name="silver"/>
    </visual>
    <collision>
      <origin rpy="0 0 0" xyz="0 0 0"/>
      <geometry>
        <box size="0.0183 0.0175 0.001"/>
      </geometry>
    </collision>
  </link>
  
<joint name="sensor_06_06_fixed" type="fixed">
    <origin xyz="0.0429 0.0128 0.093" rpy="0 0 0" />
    <parent link="trunk" />
    <child link="sensor_06_06" />
    <axis xyz="0 0 0" />
  </joint>


<link name="sensor_06_07">
    <inertial>
      <origin xyz="0 -1.6653E-16 -5E-05" rpy="0 0 0" />
      <mass value="9.18E-07" />
      <inertia ixx="6.8927E-13" ixy="5.5033E-28" ixz="2.4805E-28" iyy="6.8927E-13" iyz="-3.5387E-24" izz="1.377E-12" />
    </inertial>
    <visual>
      <origin rpy="0 0 0" xyz="0 0 0"/>
      <geometry>
        <box size="0.0113 0.0105 0.001"/>
      </geometry>
      <material name="silver"/>
    </visual>
    <collision>
      <origin rpy="0 0 0" xyz="0 0 0"/>
      <geometry>
        <box size="0.0183 0.0175 0.001"/>
      </geometry>
    </collision>
  </link>
  
<joint name="sensor_06_07_fixed" type="fixed">
    <origin xyz="0.0429 -0.0 0.093" rpy="0 0 0" />
    <parent link="trunk" />
    <child link="sensor_06_07" />
    <axis xyz="0 0 0" />
  </joint>


<link name="sensor_06_08">
    <inertial>
      <origin xyz="0 -1.6653E-16 -5E-05" rpy="0 0 0" />
      <mass value="9.18E-07" />
      <inertia ixx="6.8927E-13" ixy="5.5033E-28" ixz="2.4805E-28" iyy="6.8927E-13" iyz="-3.5387E-24" izz="1.377E-12" />
    </inertial>
    <visual>
      <origin rpy="0 0 0" xyz="0 0 0"/>
      <geometry>
        <box size="0.0113 0.0105 0.001"/>
      </geometry>
      <material name="silver"/>
    </visual>
    <collision>
      <origin rpy="0 0 0" xyz="0 0 0"/>
      <geometry>
        <box size="0.0183 0.0175 0.001"/>
      </geometry>
    </collision>
  </link>
  
<joint name="sensor_06_08_fixed" type="fixed">
    <origin xyz="0.0429 -0.0128 0.093" rpy="0 0 0" />
    <parent link="trunk" />
    <child link="sensor_06_08" />
    <axis xyz="0 0 0" />
  </joint>


<link name="sensor_06_09">
    <inertial>
      <origin xyz="0 -1.6653E-16 -5E-05" rpy="0 0 0" />
      <mass value="9.18E-07" />
      <inertia ixx="6.8927E-13" ixy="5.5033E-28" ixz="2.4805E-28" iyy="6.8927E-13" iyz="-3.5387E-24" izz="1.377E-12" />
    </inertial>
    <visual>
      <origin rpy="0 0 0" xyz="0 0 0"/>
      <geometry>
        <box size="0.0113 0.0105 0.001"/>
      </geometry>
      <material name="silver"/>
    </visual>
    <collision>
      <origin rpy="0 0 0" xyz="0 0 0"/>
      <geometry>
        <box size="0.0183 0.0175 0.001"/>
      </geometry>
    </collision>
  </link>
  
<joint name="sensor_06_09_fixed" type="fixed">
    <origin xyz="0.0429 -0.0256 0.093" rpy="0 0 0" />
    <parent link="trunk" />
    <child link="sensor_06_09" />
    <axis xyz="0 0 0" />
  </joint>


<link name="sensor_06_10">
    <inertial>
      <origin xyz="0 -1.6653E-16 -5E-05" rpy="0 0 0" />
      <mass value="9.18E-07" />
      <inertia ixx="6.8927E-13" ixy="5.5033E-28" ixz="2.4805E-28" iyy="6.8927E-13" iyz="-3.5387E-24" izz="1.377E-12" />
    </inertial>
    <visual>
      <origin rpy="0 0 0" xyz="0 0 0"/>
      <geometry>
        <box size="0.0113 0.0105 0.001"/>
      </geometry>
      <material name="silver"/>
    </visual>
    <collision>
      <origin rpy="0 0 0" xyz="0 0 0"/>
      <geometry>
        <box size="0.0183 0.0175 0.001"/>
      </geometry>
    </collision>
  </link>
  
<joint name="sensor_06_10_fixed" type="fixed">
    <origin xyz="0.0429 -0.0384 0.093" rpy="0 0 0" />
    <parent link="trunk" />
    <child link="sensor_06_10" />
    <axis xyz="0 0 0" />
  </joint>


<link name="sensor_06_11">
    <inertial>
      <origin xyz="0 -1.6653E-16 -5E-05" rpy="0 0 0" />
      <mass value="9.18E-07" />
      <inertia ixx="6.8927E-13" ixy="5.5033E-28" ixz="2.4805E-28" iyy="6.8927E-13" iyz="-3.5387E-24" izz="1.377E-12" />
    </inertial>
    <visual>
      <origin rpy="0 0 0" xyz="0 0 0"/>
      <geometry>
        <box size="0.0113 0.0105 0.001"/>
      </geometry>
      <material name="silver"/>
    </visual>
    <collision>
      <origin rpy="0 0 0" xyz="0 0 0"/>
      <geometry>
        <box size="0.0183 0.0175 0.001"/>
      </geometry>
    </collision>
  </link>
  
<joint name="sensor_06_11_fixed" type="fixed">
    <origin xyz="0.0429 -0.0512 0.093" rpy="0 0 0" />
    <parent link="trunk" />
    <child link="sensor_06_11" />
    <axis xyz="0 0 0" />
  </joint>


<link name="sensor_06_12">
    <inertial>
      <origin xyz="0 -1.6653E-16 -5E-05" rpy="0 0 0" />
      <mass value="9.18E-07" />
      <inertia ixx="6.8927E-13" ixy="5.5033E-28" ixz="2.4805E-28" iyy="6.8927E-13" iyz="-3.5387E-24" izz="1.377E-12" />
    </inertial>
    <visual>
      <origin rpy="0 0 0" xyz="0 0 0"/>
      <geometry>
        <box size="0.0113 0.0105 0.001"/>
      </geometry>
      <material name="silver"/>
    </visual>
    <collision>
      <origin rpy="0 0 0" xyz="0 0 0"/>
      <geometry>
        <box size="0.0183 0.0175 0.001"/>
      </geometry>
    </collision>
  </link>
  
<joint name="sensor_06_12_fixed" type="fixed">
    <origin xyz="0.0429 -0.064 0.093" rpy="0 0 0" />
    <parent link="trunk" />
    <child link="sensor_06_12" />
    <axis xyz="0 0 0" />
  </joint>


<link name="sensor_06_13">
    <inertial>
      <origin xyz="0 -1.6653E-16 -5E-05" rpy="0 0 0" />
      <mass value="9.18E-07" />
      <inertia ixx="6.8927E-13" ixy="5.5033E-28" ixz="2.4805E-28" iyy="6.8927E-13" iyz="-3.5387E-24" izz="1.377E-12" />
    </inertial>
    <visual>
      <origin rpy="0 0 0" xyz="0 0 0"/>
      <geometry>
        <box size="0.0113 0.0105 0.001"/>
      </geometry>
      <material name="silver"/>
    </visual>
    <collision>
      <origin rpy="0 0 0" xyz="0 0 0"/>
      <geometry>
        <box size="0.0183 0.0175 0.001"/>
      </geometry>
    </collision>
  </link>
  
<joint name="sensor_06_13_fixed" type="fixed">
    <origin xyz="0.0429 -0.0768 0.093" rpy="0 0 0" />
    <parent link="trunk" />
    <child link="sensor_06_13" />
    <axis xyz="0 0 0" />
  </joint>


<link name="sensor_07_01">
    <inertial>
      <origin xyz="0 -1.6653E-16 -5E-05" rpy="0 0 0" />
      <mass value="9.18E-07" />
      <inertia ixx="6.8927E-13" ixy="5.5033E-28" ixz="2.4805E-28" iyy="6.8927E-13" iyz="-3.5387E-24" izz="1.377E-12" />
    </inertial>
    <visual>
      <origin rpy="0 0 0" xyz="0 0 0"/>
      <geometry>
        <box size="0.0113 0.0105 0.001"/>
      </geometry>
      <material name="silver"/>
    </visual>
    <collision>
      <origin rpy="0 0 0" xyz="0 0 0"/>
      <geometry>
        <box size="0.0183 0.0175 0.001"/>
      </geometry>
    </collision>
  </link>
  
<joint name="sensor_07_01_fixed" type="fixed">
    <origin xyz="0.0286 0.0768 0.093" rpy="0 0 0" />
    <parent link="trunk" />
    <child link="sensor_07_01" />
    <axis xyz="0 0 0" />
  </joint>


<link name="sensor_07_02">
    <inertial>
      <origin xyz="0 -1.6653E-16 -5E-05" rpy="0 0 0" />
      <mass value="9.18E-07" />
      <inertia ixx="6.8927E-13" ixy="5.5033E-28" ixz="2.4805E-28" iyy="6.8927E-13" iyz="-3.5387E-24" izz="1.377E-12" />
    </inertial>
    <visual>
      <origin rpy="0 0 0" xyz="0 0 0"/>
      <geometry>
        <box size="0.0113 0.0105 0.001"/>
      </geometry>
      <material name="silver"/>
    </visual>
    <collision>
      <origin rpy="0 0 0" xyz="0 0 0"/>
      <geometry>
        <box size="0.0183 0.0175 0.001"/>
      </geometry>
    </collision>
  </link>
  
<joint name="sensor_07_02_fixed" type="fixed">
    <origin xyz="0.0286 0.064 0.093" rpy="0 0 0" />
    <parent link="trunk" />
    <child link="sensor_07_02" />
    <axis xyz="0 0 0" />
  </joint>


<link name="sensor_07_03">
    <inertial>
      <origin xyz="0 -1.6653E-16 -5E-05" rpy="0 0 0" />
      <mass value="9.18E-07" />
      <inertia ixx="6.8927E-13" ixy="5.5033E-28" ixz="2.4805E-28" iyy="6.8927E-13" iyz="-3.5387E-24" izz="1.377E-12" />
    </inertial>
    <visual>
      <origin rpy="0 0 0" xyz="0 0 0"/>
      <geometry>
        <box size="0.0113 0.0105 0.001"/>
      </geometry>
      <material name="silver"/>
    </visual>
    <collision>
      <origin rpy="0 0 0" xyz="0 0 0"/>
      <geometry>
        <box size="0.0183 0.0175 0.001"/>
      </geometry>
    </collision>
  </link>
  
<joint name="sensor_07_03_fixed" type="fixed">
    <origin xyz="0.0286 0.0512 0.093" rpy="0 0 0" />
    <parent link="trunk" />
    <child link="sensor_07_03" />
    <axis xyz="0 0 0" />
  </joint>


<link name="sensor_07_04">
    <inertial>
      <origin xyz="0 -1.6653E-16 -5E-05" rpy="0 0 0" />
      <mass value="9.18E-07" />
      <inertia ixx="6.8927E-13" ixy="5.5033E-28" ixz="2.4805E-28" iyy="6.8927E-13" iyz="-3.5387E-24" izz="1.377E-12" />
    </inertial>
    <visual>
      <origin rpy="0 0 0" xyz="0 0 0"/>
      <geometry>
        <box size="0.0113 0.0105 0.001"/>
      </geometry>
      <material name="silver"/>
    </visual>
    <collision>
      <origin rpy="0 0 0" xyz="0 0 0"/>
      <geometry>
        <box size="0.0183 0.0175 0.001"/>
      </geometry>
    </collision>
  </link>
  
<joint name="sensor_07_04_fixed" type="fixed">
    <origin xyz="0.0286 0.0384 0.093" rpy="0 0 0" />
    <parent link="trunk" />
    <child link="sensor_07_04" />
    <axis xyz="0 0 0" />
  </joint>


<link name="sensor_07_05">
    <inertial>
      <origin xyz="0 -1.6653E-16 -5E-05" rpy="0 0 0" />
      <mass value="9.18E-07" />
      <inertia ixx="6.8927E-13" ixy="5.5033E-28" ixz="2.4805E-28" iyy="6.8927E-13" iyz="-3.5387E-24" izz="1.377E-12" />
    </inertial>
    <visual>
      <origin rpy="0 0 0" xyz="0 0 0"/>
      <geometry>
        <box size="0.0113 0.0105 0.001"/>
      </geometry>
      <material name="silver"/>
    </visual>
    <collision>
      <origin rpy="0 0 0" xyz="0 0 0"/>
      <geometry>
        <box size="0.0183 0.0175 0.001"/>
      </geometry>
    </collision>
  </link>
  
<joint name="sensor_07_05_fixed" type="fixed">
    <origin xyz="0.0286 0.0256 0.093" rpy="0 0 0" />
    <parent link="trunk" />
    <child link="sensor_07_05" />
    <axis xyz="0 0 0" />
  </joint>


<link name="sensor_07_06">
    <inertial>
      <origin xyz="0 -1.6653E-16 -5E-05" rpy="0 0 0" />
      <mass value="9.18E-07" />
      <inertia ixx="6.8927E-13" ixy="5.5033E-28" ixz="2.4805E-28" iyy="6.8927E-13" iyz="-3.5387E-24" izz="1.377E-12" />
    </inertial>
    <visual>
      <origin rpy="0 0 0" xyz="0 0 0"/>
      <geometry>
        <box size="0.0113 0.0105 0.001"/>
      </geometry>
      <material name="silver"/>
    </visual>
    <collision>
      <origin rpy="0 0 0" xyz="0 0 0"/>
      <geometry>
        <box size="0.0183 0.0175 0.001"/>
      </geometry>
    </collision>
  </link>
  
<joint name="sensor_07_06_fixed" type="fixed">
    <origin xyz="0.0286 0.0128 0.093" rpy="0 0 0" />
    <parent link="trunk" />
    <child link="sensor_07_06" />
    <axis xyz="0 0 0" />
  </joint>


<link name="sensor_07_07">
    <inertial>
      <origin xyz="0 -1.6653E-16 -5E-05" rpy="0 0 0" />
      <mass value="9.18E-07" />
      <inertia ixx="6.8927E-13" ixy="5.5033E-28" ixz="2.4805E-28" iyy="6.8927E-13" iyz="-3.5387E-24" izz="1.377E-12" />
    </inertial>
    <visual>
      <origin rpy="0 0 0" xyz="0 0 0"/>
      <geometry>
        <box size="0.0113 0.0105 0.001"/>
      </geometry>
      <material name="silver"/>
    </visual>
    <collision>
      <origin rpy="0 0 0" xyz="0 0 0"/>
      <geometry>
        <box size="0.0183 0.0175 0.001"/>
      </geometry>
    </collision>
  </link>
  
<joint name="sensor_07_07_fixed" type="fixed">
    <origin xyz="0.0286 -0.0 0.093" rpy="0 0 0" />
    <parent link="trunk" />
    <child link="sensor_07_07" />
    <axis xyz="0 0 0" />
  </joint>


<link name="sensor_07_08">
    <inertial>
      <origin xyz="0 -1.6653E-16 -5E-05" rpy="0 0 0" />
      <mass value="9.18E-07" />
      <inertia ixx="6.8927E-13" ixy="5.5033E-28" ixz="2.4805E-28" iyy="6.8927E-13" iyz="-3.5387E-24" izz="1.377E-12" />
    </inertial>
    <visual>
      <origin rpy="0 0 0" xyz="0 0 0"/>
      <geometry>
        <box size="0.0113 0.0105 0.001"/>
      </geometry>
      <material name="silver"/>
    </visual>
    <collision>
      <origin rpy="0 0 0" xyz="0 0 0"/>
      <geometry>
        <box size="0.0183 0.0175 0.001"/>
      </geometry>
    </collision>
  </link>
  
<joint name="sensor_07_08_fixed" type="fixed">
    <origin xyz="0.0286 -0.0128 0.093" rpy="0 0 0" />
    <parent link="trunk" />
    <child link="sensor_07_08" />
    <axis xyz="0 0 0" />
  </joint>


<link name="sensor_07_09">
    <inertial>
      <origin xyz="0 -1.6653E-16 -5E-05" rpy="0 0 0" />
      <mass value="9.18E-07" />
      <inertia ixx="6.8927E-13" ixy="5.5033E-28" ixz="2.4805E-28" iyy="6.8927E-13" iyz="-3.5387E-24" izz="1.377E-12" />
    </inertial>
    <visual>
      <origin rpy="0 0 0" xyz="0 0 0"/>
      <geometry>
        <box size="0.0113 0.0105 0.001"/>
      </geometry>
      <material name="silver"/>
    </visual>
    <collision>
      <origin rpy="0 0 0" xyz="0 0 0"/>
      <geometry>
        <box size="0.0183 0.0175 0.001"/>
      </geometry>
    </collision>
  </link>
  
<joint name="sensor_07_09_fixed" type="fixed">
    <origin xyz="0.0286 -0.0256 0.093" rpy="0 0 0" />
    <parent link="trunk" />
    <child link="sensor_07_09" />
    <axis xyz="0 0 0" />
  </joint>


<link name="sensor_07_10">
    <inertial>
      <origin xyz="0 -1.6653E-16 -5E-05" rpy="0 0 0" />
      <mass value="9.18E-07" />
      <inertia ixx="6.8927E-13" ixy="5.5033E-28" ixz="2.4805E-28" iyy="6.8927E-13" iyz="-3.5387E-24" izz="1.377E-12" />
    </inertial>
    <visual>
      <origin rpy="0 0 0" xyz="0 0 0"/>
      <geometry>
        <box size="0.0113 0.0105 0.001"/>
      </geometry>
      <material name="silver"/>
    </visual>
    <collision>
      <origin rpy="0 0 0" xyz="0 0 0"/>
      <geometry>
        <box size="0.0183 0.0175 0.001"/>
      </geometry>
    </collision>
  </link>
  
<joint name="sensor_07_10_fixed" type="fixed">
    <origin xyz="0.0286 -0.0384 0.093" rpy="0 0 0" />
    <parent link="trunk" />
    <child link="sensor_07_10" />
    <axis xyz="0 0 0" />
  </joint>


<link name="sensor_07_11">
    <inertial>
      <origin xyz="0 -1.6653E-16 -5E-05" rpy="0 0 0" />
      <mass value="9.18E-07" />
      <inertia ixx="6.8927E-13" ixy="5.5033E-28" ixz="2.4805E-28" iyy="6.8927E-13" iyz="-3.5387E-24" izz="1.377E-12" />
    </inertial>
    <visual>
      <origin rpy="0 0 0" xyz="0 0 0"/>
      <geometry>
        <box size="0.0113 0.0105 0.001"/>
      </geometry>
      <material name="silver"/>
    </visual>
    <collision>
      <origin rpy="0 0 0" xyz="0 0 0"/>
      <geometry>
        <box size="0.0183 0.0175 0.001"/>
      </geometry>
    </collision>
  </link>
  
<joint name="sensor_07_11_fixed" type="fixed">
    <origin xyz="0.0286 -0.0512 0.093" rpy="0 0 0" />
    <parent link="trunk" />
    <child link="sensor_07_11" />
    <axis xyz="0 0 0" />
  </joint>


<link name="sensor_07_12">
    <inertial>
      <origin xyz="0 -1.6653E-16 -5E-05" rpy="0 0 0" />
      <mass value="9.18E-07" />
      <inertia ixx="6.8927E-13" ixy="5.5033E-28" ixz="2.4805E-28" iyy="6.8927E-13" iyz="-3.5387E-24" izz="1.377E-12" />
    </inertial>
    <visual>
      <origin rpy="0 0 0" xyz="0 0 0"/>
      <geometry>
        <box size="0.0113 0.0105 0.001"/>
      </geometry>
      <material name="silver"/>
    </visual>
    <collision>
      <origin rpy="0 0 0" xyz="0 0 0"/>
      <geometry>
        <box size="0.0183 0.0175 0.001"/>
      </geometry>
    </collision>
  </link>
  
<joint name="sensor_07_12_fixed" type="fixed">
    <origin xyz="0.0286 -0.064 0.093" rpy="0 0 0" />
    <parent link="trunk" />
    <child link="sensor_07_12" />
    <axis xyz="0 0 0" />
  </joint>


<link name="sensor_07_13">
    <inertial>
      <origin xyz="0 -1.6653E-16 -5E-05" rpy="0 0 0" />
      <mass value="9.18E-07" />
      <inertia ixx="6.8927E-13" ixy="5.5033E-28" ixz="2.4805E-28" iyy="6.8927E-13" iyz="-3.5387E-24" izz="1.377E-12" />
    </inertial>
    <visual>
      <origin rpy="0 0 0" xyz="0 0 0"/>
      <geometry>
        <box size="0.0113 0.0105 0.001"/>
      </geometry>
      <material name="silver"/>
    </visual>
    <collision>
      <origin rpy="0 0 0" xyz="0 0 0"/>
      <geometry>
        <box size="0.0183 0.0175 0.001"/>
      </geometry>
    </collision>
  </link>
  
<joint name="sensor_07_13_fixed" type="fixed">
    <origin xyz="0.0286 -0.0768 0.093" rpy="0 0 0" />
    <parent link="trunk" />
    <child link="sensor_07_13" />
    <axis xyz="0 0 0" />
  </joint>


<link name="sensor_08_01">
    <inertial>
      <origin xyz="0 -1.6653E-16 -5E-05" rpy="0 0 0" />
      <mass value="9.18E-07" />
      <inertia ixx="6.8927E-13" ixy="5.5033E-28" ixz="2.4805E-28" iyy="6.8927E-13" iyz="-3.5387E-24" izz="1.377E-12" />
    </inertial>
    <visual>
      <origin rpy="0 0 0" xyz="0 0 0"/>
      <geometry>
        <box size="0.0113 0.0105 0.001"/>
      </geometry>
      <material name="silver"/>
    </visual>
    <collision>
      <origin rpy="0 0 0" xyz="0 0 0"/>
      <geometry>
        <box size="0.0183 0.0175 0.001"/>
      </geometry>
    </collision>
  </link>
  
<joint name="sensor_08_01_fixed" type="fixed">
    <origin xyz="0.0143 0.0768 0.093" rpy="0 0 0" />
    <parent link="trunk" />
    <child link="sensor_08_01" />
    <axis xyz="0 0 0" />
  </joint>


<link name="sensor_08_02">
    <inertial>
      <origin xyz="0 -1.6653E-16 -5E-05" rpy="0 0 0" />
      <mass value="9.18E-07" />
      <inertia ixx="6.8927E-13" ixy="5.5033E-28" ixz="2.4805E-28" iyy="6.8927E-13" iyz="-3.5387E-24" izz="1.377E-12" />
    </inertial>
    <visual>
      <origin rpy="0 0 0" xyz="0 0 0"/>
      <geometry>
        <box size="0.0113 0.0105 0.001"/>
      </geometry>
      <material name="silver"/>
    </visual>
    <collision>
      <origin rpy="0 0 0" xyz="0 0 0"/>
      <geometry>
        <box size="0.0183 0.0175 0.001"/>
      </geometry>
    </collision>
  </link>
  
<joint name="sensor_08_02_fixed" type="fixed">
    <origin xyz="0.0143 0.064 0.093" rpy="0 0 0" />
    <parent link="trunk" />
    <child link="sensor_08_02" />
    <axis xyz="0 0 0" />
  </joint>


<link name="sensor_08_03">
    <inertial>
      <origin xyz="0 -1.6653E-16 -5E-05" rpy="0 0 0" />
      <mass value="9.18E-07" />
      <inertia ixx="6.8927E-13" ixy="5.5033E-28" ixz="2.4805E-28" iyy="6.8927E-13" iyz="-3.5387E-24" izz="1.377E-12" />
    </inertial>
    <visual>
      <origin rpy="0 0 0" xyz="0 0 0"/>
      <geometry>
        <box size="0.0113 0.0105 0.001"/>
      </geometry>
      <material name="silver"/>
    </visual>
    <collision>
      <origin rpy="0 0 0" xyz="0 0 0"/>
      <geometry>
        <box size="0.0183 0.0175 0.001"/>
      </geometry>
    </collision>
  </link>
  
<joint name="sensor_08_03_fixed" type="fixed">
    <origin xyz="0.0143 0.0512 0.093" rpy="0 0 0" />
    <parent link="trunk" />
    <child link="sensor_08_03" />
    <axis xyz="0 0 0" />
  </joint>


<link name="sensor_08_04">
    <inertial>
      <origin xyz="0 -1.6653E-16 -5E-05" rpy="0 0 0" />
      <mass value="9.18E-07" />
      <inertia ixx="6.8927E-13" ixy="5.5033E-28" ixz="2.4805E-28" iyy="6.8927E-13" iyz="-3.5387E-24" izz="1.377E-12" />
    </inertial>
    <visual>
      <origin rpy="0 0 0" xyz="0 0 0"/>
      <geometry>
        <box size="0.0113 0.0105 0.001"/>
      </geometry>
      <material name="silver"/>
    </visual>
    <collision>
      <origin rpy="0 0 0" xyz="0 0 0"/>
      <geometry>
        <box size="0.0183 0.0175 0.001"/>
      </geometry>
    </collision>
  </link>
  
<joint name="sensor_08_04_fixed" type="fixed">
    <origin xyz="0.0143 0.0384 0.093" rpy="0 0 0" />
    <parent link="trunk" />
    <child link="sensor_08_04" />
    <axis xyz="0 0 0" />
  </joint>


<link name="sensor_08_05">
    <inertial>
      <origin xyz="0 -1.6653E-16 -5E-05" rpy="0 0 0" />
      <mass value="9.18E-07" />
      <inertia ixx="6.8927E-13" ixy="5.5033E-28" ixz="2.4805E-28" iyy="6.8927E-13" iyz="-3.5387E-24" izz="1.377E-12" />
    </inertial>
    <visual>
      <origin rpy="0 0 0" xyz="0 0 0"/>
      <geometry>
        <box size="0.0113 0.0105 0.001"/>
      </geometry>
      <material name="silver"/>
    </visual>
    <collision>
      <origin rpy="0 0 0" xyz="0 0 0"/>
      <geometry>
        <box size="0.0183 0.0175 0.001"/>
      </geometry>
    </collision>
  </link>
  
<joint name="sensor_08_05_fixed" type="fixed">
    <origin xyz="0.0143 0.0256 0.093" rpy="0 0 0" />
    <parent link="trunk" />
    <child link="sensor_08_05" />
    <axis xyz="0 0 0" />
  </joint>


<link name="sensor_08_06">
    <inertial>
      <origin xyz="0 -1.6653E-16 -5E-05" rpy="0 0 0" />
      <mass value="9.18E-07" />
      <inertia ixx="6.8927E-13" ixy="5.5033E-28" ixz="2.4805E-28" iyy="6.8927E-13" iyz="-3.5387E-24" izz="1.377E-12" />
    </inertial>
    <visual>
      <origin rpy="0 0 0" xyz="0 0 0"/>
      <geometry>
        <box size="0.0113 0.0105 0.001"/>
      </geometry>
      <material name="silver"/>
    </visual>
    <collision>
      <origin rpy="0 0 0" xyz="0 0 0"/>
      <geometry>
        <box size="0.0183 0.0175 0.001"/>
      </geometry>
    </collision>
  </link>
  
<joint name="sensor_08_06_fixed" type="fixed">
    <origin xyz="0.0143 0.0128 0.093" rpy="0 0 0" />
    <parent link="trunk" />
    <child link="sensor_08_06" />
    <axis xyz="0 0 0" />
  </joint>


<link name="sensor_08_07">
    <inertial>
      <origin xyz="0 -1.6653E-16 -5E-05" rpy="0 0 0" />
      <mass value="9.18E-07" />
      <inertia ixx="6.8927E-13" ixy="5.5033E-28" ixz="2.4805E-28" iyy="6.8927E-13" iyz="-3.5387E-24" izz="1.377E-12" />
    </inertial>
    <visual>
      <origin rpy="0 0 0" xyz="0 0 0"/>
      <geometry>
        <box size="0.0113 0.0105 0.001"/>
      </geometry>
      <material name="silver"/>
    </visual>
    <collision>
      <origin rpy="0 0 0" xyz="0 0 0"/>
      <geometry>
        <box size="0.0183 0.0175 0.001"/>
      </geometry>
    </collision>
  </link>
  
<joint name="sensor_08_07_fixed" type="fixed">
    <origin xyz="0.0143 -0.0 0.093" rpy="0 0 0" />
    <parent link="trunk" />
    <child link="sensor_08_07" />
    <axis xyz="0 0 0" />
  </joint>


<link name="sensor_08_08">
    <inertial>
      <origin xyz="0 -1.6653E-16 -5E-05" rpy="0 0 0" />
      <mass value="9.18E-07" />
      <inertia ixx="6.8927E-13" ixy="5.5033E-28" ixz="2.4805E-28" iyy="6.8927E-13" iyz="-3.5387E-24" izz="1.377E-12" />
    </inertial>
    <visual>
      <origin rpy="0 0 0" xyz="0 0 0"/>
      <geometry>
        <box size="0.0113 0.0105 0.001"/>
      </geometry>
      <material name="silver"/>
    </visual>
    <collision>
      <origin rpy="0 0 0" xyz="0 0 0"/>
      <geometry>
        <box size="0.0183 0.0175 0.001"/>
      </geometry>
    </collision>
  </link>
  
<joint name="sensor_08_08_fixed" type="fixed">
    <origin xyz="0.0143 -0.0128 0.093" rpy="0 0 0" />
    <parent link="trunk" />
    <child link="sensor_08_08" />
    <axis xyz="0 0 0" />
  </joint>


<link name="sensor_08_09">
    <inertial>
      <origin xyz="0 -1.6653E-16 -5E-05" rpy="0 0 0" />
      <mass value="9.18E-07" />
      <inertia ixx="6.8927E-13" ixy="5.5033E-28" ixz="2.4805E-28" iyy="6.8927E-13" iyz="-3.5387E-24" izz="1.377E-12" />
    </inertial>
    <visual>
      <origin rpy="0 0 0" xyz="0 0 0"/>
      <geometry>
        <box size="0.0113 0.0105 0.001"/>
      </geometry>
      <material name="silver"/>
    </visual>
    <collision>
      <origin rpy="0 0 0" xyz="0 0 0"/>
      <geometry>
        <box size="0.0183 0.0175 0.001"/>
      </geometry>
    </collision>
  </link>
  
<joint name="sensor_08_09_fixed" type="fixed">
    <origin xyz="0.0143 -0.0256 0.093" rpy="0 0 0" />
    <parent link="trunk" />
    <child link="sensor_08_09" />
    <axis xyz="0 0 0" />
  </joint>


<link name="sensor_08_10">
    <inertial>
      <origin xyz="0 -1.6653E-16 -5E-05" rpy="0 0 0" />
      <mass value="9.18E-07" />
      <inertia ixx="6.8927E-13" ixy="5.5033E-28" ixz="2.4805E-28" iyy="6.8927E-13" iyz="-3.5387E-24" izz="1.377E-12" />
    </inertial>
    <visual>
      <origin rpy="0 0 0" xyz="0 0 0"/>
      <geometry>
        <box size="0.0113 0.0105 0.001"/>
      </geometry>
      <material name="silver"/>
    </visual>
    <collision>
      <origin rpy="0 0 0" xyz="0 0 0"/>
      <geometry>
        <box size="0.0183 0.0175 0.001"/>
      </geometry>
    </collision>
  </link>
  
<joint name="sensor_08_10_fixed" type="fixed">
    <origin xyz="0.0143 -0.0384 0.093" rpy="0 0 0" />
    <parent link="trunk" />
    <child link="sensor_08_10" />
    <axis xyz="0 0 0" />
  </joint>


<link name="sensor_08_11">
    <inertial>
      <origin xyz="0 -1.6653E-16 -5E-05" rpy="0 0 0" />
      <mass value="9.18E-07" />
      <inertia ixx="6.8927E-13" ixy="5.5033E-28" ixz="2.4805E-28" iyy="6.8927E-13" iyz="-3.5387E-24" izz="1.377E-12" />
    </inertial>
    <visual>
      <origin rpy="0 0 0" xyz="0 0 0"/>
      <geometry>
        <box size="0.0113 0.0105 0.001"/>
      </geometry>
      <material name="silver"/>
    </visual>
    <collision>
      <origin rpy="0 0 0" xyz="0 0 0"/>
      <geometry>
        <box size="0.0183 0.0175 0.001"/>
      </geometry>
    </collision>
  </link>
  
<joint name="sensor_08_11_fixed" type="fixed">
    <origin xyz="0.0143 -0.0512 0.093" rpy="0 0 0" />
    <parent link="trunk" />
    <child link="sensor_08_11" />
    <axis xyz="0 0 0" />
  </joint>


<link name="sensor_08_12">
    <inertial>
      <origin xyz="0 -1.6653E-16 -5E-05" rpy="0 0 0" />
      <mass value="9.18E-07" />
      <inertia ixx="6.8927E-13" ixy="5.5033E-28" ixz="2.4805E-28" iyy="6.8927E-13" iyz="-3.5387E-24" izz="1.377E-12" />
    </inertial>
    <visual>
      <origin rpy="0 0 0" xyz="0 0 0"/>
      <geometry>
        <box size="0.0113 0.0105 0.001"/>
      </geometry>
      <material name="silver"/>
    </visual>
    <collision>
      <origin rpy="0 0 0" xyz="0 0 0"/>
      <geometry>
        <box size="0.0183 0.0175 0.001"/>
      </geometry>
    </collision>
  </link>
  
<joint name="sensor_08_12_fixed" type="fixed">
    <origin xyz="0.0143 -0.064 0.093" rpy="0 0 0" />
    <parent link="trunk" />
    <child link="sensor_08_12" />
    <axis xyz="0 0 0" />
  </joint>


<link name="sensor_08_13">
    <inertial>
      <origin xyz="0 -1.6653E-16 -5E-05" rpy="0 0 0" />
      <mass value="9.18E-07" />
      <inertia ixx="6.8927E-13" ixy="5.5033E-28" ixz="2.4805E-28" iyy="6.8927E-13" iyz="-3.5387E-24" izz="1.377E-12" />
    </inertial>
    <visual>
      <origin rpy="0 0 0" xyz="0 0 0"/>
      <geometry>
        <box size="0.0113 0.0105 0.001"/>
      </geometry>
      <material name="silver"/>
    </visual>
    <collision>
      <origin rpy="0 0 0" xyz="0 0 0"/>
      <geometry>
        <box size="0.0183 0.0175 0.001"/>
      </geometry>
    </collision>
  </link>
  
<joint name="sensor_08_13_fixed" type="fixed">
    <origin xyz="0.0143 -0.0768 0.093" rpy="0 0 0" />
    <parent link="trunk" />
    <child link="sensor_08_13" />
    <axis xyz="0 0 0" />
  </joint>


<link name="sensor_09_01">
    <inertial>
      <origin xyz="0 -1.6653E-16 -5E-05" rpy="0 0 0" />
      <mass value="9.18E-07" />
      <inertia ixx="6.8927E-13" ixy="5.5033E-28" ixz="2.4805E-28" iyy="6.8927E-13" iyz="-3.5387E-24" izz="1.377E-12" />
    </inertial>
    <visual>
      <origin rpy="0 0 0" xyz="0 0 0"/>
      <geometry>
        <box size="0.0113 0.0105 0.001"/>
      </geometry>
      <material name="silver"/>
    </visual>
    <collision>
      <origin rpy="0 0 0" xyz="0 0 0"/>
      <geometry>
        <box size="0.0183 0.0175 0.001"/>
      </geometry>
    </collision>
  </link>
  
<joint name="sensor_09_01_fixed" type="fixed">
    <origin xyz="0.0 0.0768 0.093" rpy="0 0 0" />
    <parent link="trunk" />
    <child link="sensor_09_01" />
    <axis xyz="0 0 0" />
  </joint>


<link name="sensor_09_02">
    <inertial>
      <origin xyz="0 -1.6653E-16 -5E-05" rpy="0 0 0" />
      <mass value="9.18E-07" />
      <inertia ixx="6.8927E-13" ixy="5.5033E-28" ixz="2.4805E-28" iyy="6.8927E-13" iyz="-3.5387E-24" izz="1.377E-12" />
    </inertial>
    <visual>
      <origin rpy="0 0 0" xyz="0 0 0"/>
      <geometry>
        <box size="0.0113 0.0105 0.001"/>
      </geometry>
      <material name="silver"/>
    </visual>
    <collision>
      <origin rpy="0 0 0" xyz="0 0 0"/>
      <geometry>
        <box size="0.0183 0.0175 0.001"/>
      </geometry>
    </collision>
  </link>
  
<joint name="sensor_09_02_fixed" type="fixed">
    <origin xyz="0.0 0.064 0.093" rpy="0 0 0" />
    <parent link="trunk" />
    <child link="sensor_09_02" />
    <axis xyz="0 0 0" />
  </joint>


<link name="sensor_09_03">
    <inertial>
      <origin xyz="0 -1.6653E-16 -5E-05" rpy="0 0 0" />
      <mass value="9.18E-07" />
      <inertia ixx="6.8927E-13" ixy="5.5033E-28" ixz="2.4805E-28" iyy="6.8927E-13" iyz="-3.5387E-24" izz="1.377E-12" />
    </inertial>
    <visual>
      <origin rpy="0 0 0" xyz="0 0 0"/>
      <geometry>
        <box size="0.0113 0.0105 0.001"/>
      </geometry>
      <material name="silver"/>
    </visual>
    <collision>
      <origin rpy="0 0 0" xyz="0 0 0"/>
      <geometry>
        <box size="0.0183 0.0175 0.001"/>
      </geometry>
    </collision>
  </link>
  
<joint name="sensor_09_03_fixed" type="fixed">
    <origin xyz="0.0 0.0512 0.093" rpy="0 0 0" />
    <parent link="trunk" />
    <child link="sensor_09_03" />
    <axis xyz="0 0 0" />
  </joint>


<link name="sensor_09_04">
    <inertial>
      <origin xyz="0 -1.6653E-16 -5E-05" rpy="0 0 0" />
      <mass value="9.18E-07" />
      <inertia ixx="6.8927E-13" ixy="5.5033E-28" ixz="2.4805E-28" iyy="6.8927E-13" iyz="-3.5387E-24" izz="1.377E-12" />
    </inertial>
    <visual>
      <origin rpy="0 0 0" xyz="0 0 0"/>
      <geometry>
        <box size="0.0113 0.0105 0.001"/>
      </geometry>
      <material name="silver"/>
    </visual>
    <collision>
      <origin rpy="0 0 0" xyz="0 0 0"/>
      <geometry>
        <box size="0.0183 0.0175 0.001"/>
      </geometry>
    </collision>
  </link>
  
<joint name="sensor_09_04_fixed" type="fixed">
    <origin xyz="0.0 0.0384 0.093" rpy="0 0 0" />
    <parent link="trunk" />
    <child link="sensor_09_04" />
    <axis xyz="0 0 0" />
  </joint>


<link name="sensor_09_05">
    <inertial>
      <origin xyz="0 -1.6653E-16 -5E-05" rpy="0 0 0" />
      <mass value="9.18E-07" />
      <inertia ixx="6.8927E-13" ixy="5.5033E-28" ixz="2.4805E-28" iyy="6.8927E-13" iyz="-3.5387E-24" izz="1.377E-12" />
    </inertial>
    <visual>
      <origin rpy="0 0 0" xyz="0 0 0"/>
      <geometry>
        <box size="0.0113 0.0105 0.001"/>
      </geometry>
      <material name="silver"/>
    </visual>
    <collision>
      <origin rpy="0 0 0" xyz="0 0 0"/>
      <geometry>
        <box size="0.0183 0.0175 0.001"/>
      </geometry>
    </collision>
  </link>
  
<joint name="sensor_09_05_fixed" type="fixed">
    <origin xyz="0.0 0.0256 0.093" rpy="0 0 0" />
    <parent link="trunk" />
    <child link="sensor_09_05" />
    <axis xyz="0 0 0" />
  </joint>


<link name="sensor_09_06">
    <inertial>
      <origin xyz="0 -1.6653E-16 -5E-05" rpy="0 0 0" />
      <mass value="9.18E-07" />
      <inertia ixx="6.8927E-13" ixy="5.5033E-28" ixz="2.4805E-28" iyy="6.8927E-13" iyz="-3.5387E-24" izz="1.377E-12" />
    </inertial>
    <visual>
      <origin rpy="0 0 0" xyz="0 0 0"/>
      <geometry>
        <box size="0.0113 0.0105 0.001"/>
      </geometry>
      <material name="silver"/>
    </visual>
    <collision>
      <origin rpy="0 0 0" xyz="0 0 0"/>
      <geometry>
        <box size="0.0183 0.0175 0.001"/>
      </geometry>
    </collision>
  </link>
  
<joint name="sensor_09_06_fixed" type="fixed">
    <origin xyz="0.0 0.0128 0.093" rpy="0 0 0" />
    <parent link="trunk" />
    <child link="sensor_09_06" />
    <axis xyz="0 0 0" />
  </joint>


<link name="sensor_09_07">
    <inertial>
      <origin xyz="0 -1.6653E-16 -5E-05" rpy="0 0 0" />
      <mass value="9.18E-07" />
      <inertia ixx="6.8927E-13" ixy="5.5033E-28" ixz="2.4805E-28" iyy="6.8927E-13" iyz="-3.5387E-24" izz="1.377E-12" />
    </inertial>
    <visual>
      <origin rpy="0 0 0" xyz="0 0 0"/>
      <geometry>
        <box size="0.0113 0.0105 0.001"/>
      </geometry>
      <material name="silver"/>
    </visual>
    <collision>
      <origin rpy="0 0 0" xyz="0 0 0"/>
      <geometry>
        <box size="0.0183 0.0175 0.001"/>
      </geometry>
    </collision>
  </link>
  
<joint name="sensor_09_07_fixed" type="fixed">
    <origin xyz="0.0 -0.0 0.093" rpy="0 0 0" />
    <parent link="trunk" />
    <child link="sensor_09_07" />
    <axis xyz="0 0 0" />
  </joint>


<link name="sensor_09_08">
    <inertial>
      <origin xyz="0 -1.6653E-16 -5E-05" rpy="0 0 0" />
      <mass value="9.18E-07" />
      <inertia ixx="6.8927E-13" ixy="5.5033E-28" ixz="2.4805E-28" iyy="6.8927E-13" iyz="-3.5387E-24" izz="1.377E-12" />
    </inertial>
    <visual>
      <origin rpy="0 0 0" xyz="0 0 0"/>
      <geometry>
        <box size="0.0113 0.0105 0.001"/>
      </geometry>
      <material name="silver"/>
    </visual>
    <collision>
      <origin rpy="0 0 0" xyz="0 0 0"/>
      <geometry>
        <box size="0.0183 0.0175 0.001"/>
      </geometry>
    </collision>
  </link>
  
<joint name="sensor_09_08_fixed" type="fixed">
    <origin xyz="0.0 -0.0128 0.093" rpy="0 0 0" />
    <parent link="trunk" />
    <child link="sensor_09_08" />
    <axis xyz="0 0 0" />
  </joint>


<link name="sensor_09_09">
    <inertial>
      <origin xyz="0 -1.6653E-16 -5E-05" rpy="0 0 0" />
      <mass value="9.18E-07" />
      <inertia ixx="6.8927E-13" ixy="5.5033E-28" ixz="2.4805E-28" iyy="6.8927E-13" iyz="-3.5387E-24" izz="1.377E-12" />
    </inertial>
    <visual>
      <origin rpy="0 0 0" xyz="0 0 0"/>
      <geometry>
        <box size="0.0113 0.0105 0.001"/>
      </geometry>
      <material name="silver"/>
    </visual>
    <collision>
      <origin rpy="0 0 0" xyz="0 0 0"/>
      <geometry>
        <box size="0.0183 0.0175 0.001"/>
      </geometry>
    </collision>
  </link>
  
<joint name="sensor_09_09_fixed" type="fixed">
    <origin xyz="0.0 -0.0256 0.093" rpy="0 0 0" />
    <parent link="trunk" />
    <child link="sensor_09_09" />
    <axis xyz="0 0 0" />
  </joint>


<link name="sensor_09_10">
    <inertial>
      <origin xyz="0 -1.6653E-16 -5E-05" rpy="0 0 0" />
      <mass value="9.18E-07" />
      <inertia ixx="6.8927E-13" ixy="5.5033E-28" ixz="2.4805E-28" iyy="6.8927E-13" iyz="-3.5387E-24" izz="1.377E-12" />
    </inertial>
    <visual>
      <origin rpy="0 0 0" xyz="0 0 0"/>
      <geometry>
        <box size="0.0113 0.0105 0.001"/>
      </geometry>
      <material name="silver"/>
    </visual>
    <collision>
      <origin rpy="0 0 0" xyz="0 0 0"/>
      <geometry>
        <box size="0.0183 0.0175 0.001"/>
      </geometry>
    </collision>
  </link>
  
<joint name="sensor_09_10_fixed" type="fixed">
    <origin xyz="0.0 -0.0384 0.093" rpy="0 0 0" />
    <parent link="trunk" />
    <child link="sensor_09_10" />
    <axis xyz="0 0 0" />
  </joint>


<link name="sensor_09_11">
    <inertial>
      <origin xyz="0 -1.6653E-16 -5E-05" rpy="0 0 0" />
      <mass value="9.18E-07" />
      <inertia ixx="6.8927E-13" ixy="5.5033E-28" ixz="2.4805E-28" iyy="6.8927E-13" iyz="-3.5387E-24" izz="1.377E-12" />
    </inertial>
    <visual>
      <origin rpy="0 0 0" xyz="0 0 0"/>
      <geometry>
        <box size="0.0113 0.0105 0.001"/>
      </geometry>
      <material name="silver"/>
    </visual>
    <collision>
      <origin rpy="0 0 0" xyz="0 0 0"/>
      <geometry>
        <box size="0.0183 0.0175 0.001"/>
      </geometry>
    </collision>
  </link>
  
<joint name="sensor_09_11_fixed" type="fixed">
    <origin xyz="0.0 -0.0512 0.093" rpy="0 0 0" />
    <parent link="trunk" />
    <child link="sensor_09_11" />
    <axis xyz="0 0 0" />
  </joint>


<link name="sensor_09_12">
    <inertial>
      <origin xyz="0 -1.6653E-16 -5E-05" rpy="0 0 0" />
      <mass value="9.18E-07" />
      <inertia ixx="6.8927E-13" ixy="5.5033E-28" ixz="2.4805E-28" iyy="6.8927E-13" iyz="-3.5387E-24" izz="1.377E-12" />
    </inertial>
    <visual>
      <origin rpy="0 0 0" xyz="0 0 0"/>
      <geometry>
        <box size="0.0113 0.0105 0.001"/>
      </geometry>
      <material name="silver"/>
    </visual>
    <collision>
      <origin rpy="0 0 0" xyz="0 0 0"/>
      <geometry>
        <box size="0.0183 0.0175 0.001"/>
      </geometry>
    </collision>
  </link>
  
<joint name="sensor_09_12_fixed" type="fixed">
    <origin xyz="0.0 -0.064 0.093" rpy="0 0 0" />
    <parent link="trunk" />
    <child link="sensor_09_12" />
    <axis xyz="0 0 0" />
  </joint>


<link name="sensor_09_13">
    <inertial>
      <origin xyz="0 -1.6653E-16 -5E-05" rpy="0 0 0" />
      <mass value="9.18E-07" />
      <inertia ixx="6.8927E-13" ixy="5.5033E-28" ixz="2.4805E-28" iyy="6.8927E-13" iyz="-3.5387E-24" izz="1.377E-12" />
    </inertial>
    <visual>
      <origin rpy="0 0 0" xyz="0 0 0"/>
      <geometry>
        <box size="0.0113 0.0105 0.001"/>
      </geometry>
      <material name="silver"/>
    </visual>
    <collision>
      <origin rpy="0 0 0" xyz="0 0 0"/>
      <geometry>
        <box size="0.0183 0.0175 0.001"/>
      </geometry>
    </collision>
  </link>
  
<joint name="sensor_09_13_fixed" type="fixed">
    <origin xyz="0.0 -0.0768 0.093" rpy="0 0 0" />
    <parent link="trunk" />
    <child link="sensor_09_13" />
    <axis xyz="0 0 0" />
  </joint>


<link name="sensor_10_01">
    <inertial>
      <origin xyz="0 -1.6653E-16 -5E-05" rpy="0 0 0" />
      <mass value="9.18E-07" />
      <inertia ixx="6.8927E-13" ixy="5.5033E-28" ixz="2.4805E-28" iyy="6.8927E-13" iyz="-3.5387E-24" izz="1.377E-12" />
    </inertial>
    <visual>
      <origin rpy="0 0 0" xyz="0 0 0"/>
      <geometry>
        <box size="0.0113 0.0105 0.001"/>
      </geometry>
      <material name="silver"/>
    </visual>
    <collision>
      <origin rpy="0 0 0" xyz="0 0 0"/>
      <geometry>
        <box size="0.0183 0.0175 0.001"/>
      </geometry>
    </collision>
  </link>
  
<joint name="sensor_10_01_fixed" type="fixed">
    <origin xyz="-0.0143 0.0768 0.093" rpy="0 0 0" />
    <parent link="trunk" />
    <child link="sensor_10_01" />
    <axis xyz="0 0 0" />
  </joint>


<link name="sensor_10_02">
    <inertial>
      <origin xyz="0 -1.6653E-16 -5E-05" rpy="0 0 0" />
      <mass value="9.18E-07" />
      <inertia ixx="6.8927E-13" ixy="5.5033E-28" ixz="2.4805E-28" iyy="6.8927E-13" iyz="-3.5387E-24" izz="1.377E-12" />
    </inertial>
    <visual>
      <origin rpy="0 0 0" xyz="0 0 0"/>
      <geometry>
        <box size="0.0113 0.0105 0.001"/>
      </geometry>
      <material name="silver"/>
    </visual>
    <collision>
      <origin rpy="0 0 0" xyz="0 0 0"/>
      <geometry>
        <box size="0.0183 0.0175 0.001"/>
      </geometry>
    </collision>
  </link>
  
<joint name="sensor_10_02_fixed" type="fixed">
    <origin xyz="-0.0143 0.064 0.093" rpy="0 0 0" />
    <parent link="trunk" />
    <child link="sensor_10_02" />
    <axis xyz="0 0 0" />
  </joint>


<link name="sensor_10_03">
    <inertial>
      <origin xyz="0 -1.6653E-16 -5E-05" rpy="0 0 0" />
      <mass value="9.18E-07" />
      <inertia ixx="6.8927E-13" ixy="5.5033E-28" ixz="2.4805E-28" iyy="6.8927E-13" iyz="-3.5387E-24" izz="1.377E-12" />
    </inertial>
    <visual>
      <origin rpy="0 0 0" xyz="0 0 0"/>
      <geometry>
        <box size="0.0113 0.0105 0.001"/>
      </geometry>
      <material name="silver"/>
    </visual>
    <collision>
      <origin rpy="0 0 0" xyz="0 0 0"/>
      <geometry>
        <box size="0.0183 0.0175 0.001"/>
      </geometry>
    </collision>
  </link>
  
<joint name="sensor_10_03_fixed" type="fixed">
    <origin xyz="-0.0143 0.0512 0.093" rpy="0 0 0" />
    <parent link="trunk" />
    <child link="sensor_10_03" />
    <axis xyz="0 0 0" />
  </joint>


<link name="sensor_10_04">
    <inertial>
      <origin xyz="0 -1.6653E-16 -5E-05" rpy="0 0 0" />
      <mass value="9.18E-07" />
      <inertia ixx="6.8927E-13" ixy="5.5033E-28" ixz="2.4805E-28" iyy="6.8927E-13" iyz="-3.5387E-24" izz="1.377E-12" />
    </inertial>
    <visual>
      <origin rpy="0 0 0" xyz="0 0 0"/>
      <geometry>
        <box size="0.0113 0.0105 0.001"/>
      </geometry>
      <material name="silver"/>
    </visual>
    <collision>
      <origin rpy="0 0 0" xyz="0 0 0"/>
      <geometry>
        <box size="0.0183 0.0175 0.001"/>
      </geometry>
    </collision>
  </link>
  
<joint name="sensor_10_04_fixed" type="fixed">
    <origin xyz="-0.0143 0.0384 0.093" rpy="0 0 0" />
    <parent link="trunk" />
    <child link="sensor_10_04" />
    <axis xyz="0 0 0" />
  </joint>


<link name="sensor_10_05">
    <inertial>
      <origin xyz="0 -1.6653E-16 -5E-05" rpy="0 0 0" />
      <mass value="9.18E-07" />
      <inertia ixx="6.8927E-13" ixy="5.5033E-28" ixz="2.4805E-28" iyy="6.8927E-13" iyz="-3.5387E-24" izz="1.377E-12" />
    </inertial>
    <visual>
      <origin rpy="0 0 0" xyz="0 0 0"/>
      <geometry>
        <box size="0.0113 0.0105 0.001"/>
      </geometry>
      <material name="silver"/>
    </visual>
    <collision>
      <origin rpy="0 0 0" xyz="0 0 0"/>
      <geometry>
        <box size="0.0183 0.0175 0.001"/>
      </geometry>
    </collision>
  </link>
  
<joint name="sensor_10_05_fixed" type="fixed">
    <origin xyz="-0.0143 0.0256 0.093" rpy="0 0 0" />
    <parent link="trunk" />
    <child link="sensor_10_05" />
    <axis xyz="0 0 0" />
  </joint>


<link name="sensor_10_06">
    <inertial>
      <origin xyz="0 -1.6653E-16 -5E-05" rpy="0 0 0" />
      <mass value="9.18E-07" />
      <inertia ixx="6.8927E-13" ixy="5.5033E-28" ixz="2.4805E-28" iyy="6.8927E-13" iyz="-3.5387E-24" izz="1.377E-12" />
    </inertial>
    <visual>
      <origin rpy="0 0 0" xyz="0 0 0"/>
      <geometry>
        <box size="0.0113 0.0105 0.001"/>
      </geometry>
      <material name="silver"/>
    </visual>
    <collision>
      <origin rpy="0 0 0" xyz="0 0 0"/>
      <geometry>
        <box size="0.0183 0.0175 0.001"/>
      </geometry>
    </collision>
  </link>
  
<joint name="sensor_10_06_fixed" type="fixed">
    <origin xyz="-0.0143 0.0128 0.093" rpy="0 0 0" />
    <parent link="trunk" />
    <child link="sensor_10_06" />
    <axis xyz="0 0 0" />
  </joint>


<link name="sensor_10_07">
    <inertial>
      <origin xyz="0 -1.6653E-16 -5E-05" rpy="0 0 0" />
      <mass value="9.18E-07" />
      <inertia ixx="6.8927E-13" ixy="5.5033E-28" ixz="2.4805E-28" iyy="6.8927E-13" iyz="-3.5387E-24" izz="1.377E-12" />
    </inertial>
    <visual>
      <origin rpy="0 0 0" xyz="0 0 0"/>
      <geometry>
        <box size="0.0113 0.0105 0.001"/>
      </geometry>
      <material name="silver"/>
    </visual>
    <collision>
      <origin rpy="0 0 0" xyz="0 0 0"/>
      <geometry>
        <box size="0.0183 0.0175 0.001"/>
      </geometry>
    </collision>
  </link>
  
<joint name="sensor_10_07_fixed" type="fixed">
    <origin xyz="-0.0143 -0.0 0.093" rpy="0 0 0" />
    <parent link="trunk" />
    <child link="sensor_10_07" />
    <axis xyz="0 0 0" />
  </joint>


<link name="sensor_10_08">
    <inertial>
      <origin xyz="0 -1.6653E-16 -5E-05" rpy="0 0 0" />
      <mass value="9.18E-07" />
      <inertia ixx="6.8927E-13" ixy="5.5033E-28" ixz="2.4805E-28" iyy="6.8927E-13" iyz="-3.5387E-24" izz="1.377E-12" />
    </inertial>
    <visual>
      <origin rpy="0 0 0" xyz="0 0 0"/>
      <geometry>
        <box size="0.0113 0.0105 0.001"/>
      </geometry>
      <material name="silver"/>
    </visual>
    <collision>
      <origin rpy="0 0 0" xyz="0 0 0"/>
      <geometry>
        <box size="0.0183 0.0175 0.001"/>
      </geometry>
    </collision>
  </link>
  
<joint name="sensor_10_08_fixed" type="fixed">
    <origin xyz="-0.0143 -0.0128 0.093" rpy="0 0 0" />
    <parent link="trunk" />
    <child link="sensor_10_08" />
    <axis xyz="0 0 0" />
  </joint>


<link name="sensor_10_09">
    <inertial>
      <origin xyz="0 -1.6653E-16 -5E-05" rpy="0 0 0" />
      <mass value="9.18E-07" />
      <inertia ixx="6.8927E-13" ixy="5.5033E-28" ixz="2.4805E-28" iyy="6.8927E-13" iyz="-3.5387E-24" izz="1.377E-12" />
    </inertial>
    <visual>
      <origin rpy="0 0 0" xyz="0 0 0"/>
      <geometry>
        <box size="0.0113 0.0105 0.001"/>
      </geometry>
      <material name="silver"/>
    </visual>
    <collision>
      <origin rpy="0 0 0" xyz="0 0 0"/>
      <geometry>
        <box size="0.0183 0.0175 0.001"/>
      </geometry>
    </collision>
  </link>
  
<joint name="sensor_10_09_fixed" type="fixed">
    <origin xyz="-0.0143 -0.0256 0.093" rpy="0 0 0" />
    <parent link="trunk" />
    <child link="sensor_10_09" />
    <axis xyz="0 0 0" />
  </joint>


<link name="sensor_10_10">
    <inertial>
      <origin xyz="0 -1.6653E-16 -5E-05" rpy="0 0 0" />
      <mass value="9.18E-07" />
      <inertia ixx="6.8927E-13" ixy="5.5033E-28" ixz="2.4805E-28" iyy="6.8927E-13" iyz="-3.5387E-24" izz="1.377E-12" />
    </inertial>
    <visual>
      <origin rpy="0 0 0" xyz="0 0 0"/>
      <geometry>
        <box size="0.0113 0.0105 0.001"/>
      </geometry>
      <material name="silver"/>
    </visual>
    <collision>
      <origin rpy="0 0 0" xyz="0 0 0"/>
      <geometry>
        <box size="0.0183 0.0175 0.001"/>
      </geometry>
    </collision>
  </link>
  
<joint name="sensor_10_10_fixed" type="fixed">
    <origin xyz="-0.0143 -0.0384 0.093" rpy="0 0 0" />
    <parent link="trunk" />
    <child link="sensor_10_10" />
    <axis xyz="0 0 0" />
  </joint>


<link name="sensor_10_11">
    <inertial>
      <origin xyz="0 -1.6653E-16 -5E-05" rpy="0 0 0" />
      <mass value="9.18E-07" />
      <inertia ixx="6.8927E-13" ixy="5.5033E-28" ixz="2.4805E-28" iyy="6.8927E-13" iyz="-3.5387E-24" izz="1.377E-12" />
    </inertial>
    <visual>
      <origin rpy="0 0 0" xyz="0 0 0"/>
      <geometry>
        <box size="0.0113 0.0105 0.001"/>
      </geometry>
      <material name="silver"/>
    </visual>
    <collision>
      <origin rpy="0 0 0" xyz="0 0 0"/>
      <geometry>
        <box size="0.0183 0.0175 0.001"/>
      </geometry>
    </collision>
  </link>
  
<joint name="sensor_10_11_fixed" type="fixed">
    <origin xyz="-0.0143 -0.0512 0.093" rpy="0 0 0" />
    <parent link="trunk" />
    <child link="sensor_10_11" />
    <axis xyz="0 0 0" />
  </joint>


<link name="sensor_10_12">
    <inertial>
      <origin xyz="0 -1.6653E-16 -5E-05" rpy="0 0 0" />
      <mass value="9.18E-07" />
      <inertia ixx="6.8927E-13" ixy="5.5033E-28" ixz="2.4805E-28" iyy="6.8927E-13" iyz="-3.5387E-24" izz="1.377E-12" />
    </inertial>
    <visual>
      <origin rpy="0 0 0" xyz="0 0 0"/>
      <geometry>
        <box size="0.0113 0.0105 0.001"/>
      </geometry>
      <material name="silver"/>
    </visual>
    <collision>
      <origin rpy="0 0 0" xyz="0 0 0"/>
      <geometry>
        <box size="0.0183 0.0175 0.001"/>
      </geometry>
    </collision>
  </link>
  
<joint name="sensor_10_12_fixed" type="fixed">
    <origin xyz="-0.0143 -0.064 0.093" rpy="0 0 0" />
    <parent link="trunk" />
    <child link="sensor_10_12" />
    <axis xyz="0 0 0" />
  </joint>


<link name="sensor_10_13">
    <inertial>
      <origin xyz="0 -1.6653E-16 -5E-05" rpy="0 0 0" />
      <mass value="9.18E-07" />
      <inertia ixx="6.8927E-13" ixy="5.5033E-28" ixz="2.4805E-28" iyy="6.8927E-13" iyz="-3.5387E-24" izz="1.377E-12" />
    </inertial>
    <visual>
      <origin rpy="0 0 0" xyz="0 0 0"/>
      <geometry>
        <box size="0.0113 0.0105 0.001"/>
      </geometry>
      <material name="silver"/>
    </visual>
    <collision>
      <origin rpy="0 0 0" xyz="0 0 0"/>
      <geometry>
        <box size="0.0183 0.0175 0.001"/>
      </geometry>
    </collision>
  </link>
  
<joint name="sensor_10_13_fixed" type="fixed">
    <origin xyz="-0.0143 -0.0768 0.093" rpy="0 0 0" />
    <parent link="trunk" />
    <child link="sensor_10_13" />
    <axis xyz="0 0 0" />
  </joint>


<link name="sensor_11_01">
    <inertial>
      <origin xyz="0 -1.6653E-16 -5E-05" rpy="0 0 0" />
      <mass value="9.18E-07" />
      <inertia ixx="6.8927E-13" ixy="5.5033E-28" ixz="2.4805E-28" iyy="6.8927E-13" iyz="-3.5387E-24" izz="1.377E-12" />
    </inertial>
    <visual>
      <origin rpy="0 0 0" xyz="0 0 0"/>
      <geometry>
        <box size="0.0113 0.0105 0.001"/>
      </geometry>
      <material name="silver"/>
    </visual>
    <collision>
      <origin rpy="0 0 0" xyz="0 0 0"/>
      <geometry>
        <box size="0.0183 0.0175 0.001"/>
      </geometry>
    </collision>
  </link>
  
<joint name="sensor_11_01_fixed" type="fixed">
    <origin xyz="-0.0286 0.0768 0.093" rpy="0 0 0" />
    <parent link="trunk" />
    <child link="sensor_11_01" />
    <axis xyz="0 0 0" />
  </joint>


<link name="sensor_11_02">
    <inertial>
      <origin xyz="0 -1.6653E-16 -5E-05" rpy="0 0 0" />
      <mass value="9.18E-07" />
      <inertia ixx="6.8927E-13" ixy="5.5033E-28" ixz="2.4805E-28" iyy="6.8927E-13" iyz="-3.5387E-24" izz="1.377E-12" />
    </inertial>
    <visual>
      <origin rpy="0 0 0" xyz="0 0 0"/>
      <geometry>
        <box size="0.0113 0.0105 0.001"/>
      </geometry>
      <material name="silver"/>
    </visual>
    <collision>
      <origin rpy="0 0 0" xyz="0 0 0"/>
      <geometry>
        <box size="0.0183 0.0175 0.001"/>
      </geometry>
    </collision>
  </link>
  
<joint name="sensor_11_02_fixed" type="fixed">
    <origin xyz="-0.0286 0.064 0.093" rpy="0 0 0" />
    <parent link="trunk" />
    <child link="sensor_11_02" />
    <axis xyz="0 0 0" />
  </joint>


<link name="sensor_11_03">
    <inertial>
      <origin xyz="0 -1.6653E-16 -5E-05" rpy="0 0 0" />
      <mass value="9.18E-07" />
      <inertia ixx="6.8927E-13" ixy="5.5033E-28" ixz="2.4805E-28" iyy="6.8927E-13" iyz="-3.5387E-24" izz="1.377E-12" />
    </inertial>
    <visual>
      <origin rpy="0 0 0" xyz="0 0 0"/>
      <geometry>
        <box size="0.0113 0.0105 0.001"/>
      </geometry>
      <material name="silver"/>
    </visual>
    <collision>
      <origin rpy="0 0 0" xyz="0 0 0"/>
      <geometry>
        <box size="0.0183 0.0175 0.001"/>
      </geometry>
    </collision>
  </link>
  
<joint name="sensor_11_03_fixed" type="fixed">
    <origin xyz="-0.0286 0.0512 0.093" rpy="0 0 0" />
    <parent link="trunk" />
    <child link="sensor_11_03" />
    <axis xyz="0 0 0" />
  </joint>


<link name="sensor_11_04">
    <inertial>
      <origin xyz="0 -1.6653E-16 -5E-05" rpy="0 0 0" />
      <mass value="9.18E-07" />
      <inertia ixx="6.8927E-13" ixy="5.5033E-28" ixz="2.4805E-28" iyy="6.8927E-13" iyz="-3.5387E-24" izz="1.377E-12" />
    </inertial>
    <visual>
      <origin rpy="0 0 0" xyz="0 0 0"/>
      <geometry>
        <box size="0.0113 0.0105 0.001"/>
      </geometry>
      <material name="silver"/>
    </visual>
    <collision>
      <origin rpy="0 0 0" xyz="0 0 0"/>
      <geometry>
        <box size="0.0183 0.0175 0.001"/>
      </geometry>
    </collision>
  </link>
  
<joint name="sensor_11_04_fixed" type="fixed">
    <origin xyz="-0.0286 0.0384 0.093" rpy="0 0 0" />
    <parent link="trunk" />
    <child link="sensor_11_04" />
    <axis xyz="0 0 0" />
  </joint>


<link name="sensor_11_05">
    <inertial>
      <origin xyz="0 -1.6653E-16 -5E-05" rpy="0 0 0" />
      <mass value="9.18E-07" />
      <inertia ixx="6.8927E-13" ixy="5.5033E-28" ixz="2.4805E-28" iyy="6.8927E-13" iyz="-3.5387E-24" izz="1.377E-12" />
    </inertial>
    <visual>
      <origin rpy="0 0 0" xyz="0 0 0"/>
      <geometry>
        <box size="0.0113 0.0105 0.001"/>
      </geometry>
      <material name="silver"/>
    </visual>
    <collision>
      <origin rpy="0 0 0" xyz="0 0 0"/>
      <geometry>
        <box size="0.0183 0.0175 0.001"/>
      </geometry>
    </collision>
  </link>
  
<joint name="sensor_11_05_fixed" type="fixed">
    <origin xyz="-0.0286 0.0256 0.093" rpy="0 0 0" />
    <parent link="trunk" />
    <child link="sensor_11_05" />
    <axis xyz="0 0 0" />
  </joint>


<link name="sensor_11_06">
    <inertial>
      <origin xyz="0 -1.6653E-16 -5E-05" rpy="0 0 0" />
      <mass value="9.18E-07" />
      <inertia ixx="6.8927E-13" ixy="5.5033E-28" ixz="2.4805E-28" iyy="6.8927E-13" iyz="-3.5387E-24" izz="1.377E-12" />
    </inertial>
    <visual>
      <origin rpy="0 0 0" xyz="0 0 0"/>
      <geometry>
        <box size="0.0113 0.0105 0.001"/>
      </geometry>
      <material name="silver"/>
    </visual>
    <collision>
      <origin rpy="0 0 0" xyz="0 0 0"/>
      <geometry>
        <box size="0.0183 0.0175 0.001"/>
      </geometry>
    </collision>
  </link>
  
<joint name="sensor_11_06_fixed" type="fixed">
    <origin xyz="-0.0286 0.0128 0.093" rpy="0 0 0" />
    <parent link="trunk" />
    <child link="sensor_11_06" />
    <axis xyz="0 0 0" />
  </joint>


<link name="sensor_11_07">
    <inertial>
      <origin xyz="0 -1.6653E-16 -5E-05" rpy="0 0 0" />
      <mass value="9.18E-07" />
      <inertia ixx="6.8927E-13" ixy="5.5033E-28" ixz="2.4805E-28" iyy="6.8927E-13" iyz="-3.5387E-24" izz="1.377E-12" />
    </inertial>
    <visual>
      <origin rpy="0 0 0" xyz="0 0 0"/>
      <geometry>
        <box size="0.0113 0.0105 0.001"/>
      </geometry>
      <material name="silver"/>
    </visual>
    <collision>
      <origin rpy="0 0 0" xyz="0 0 0"/>
      <geometry>
        <box size="0.0183 0.0175 0.001"/>
      </geometry>
    </collision>
  </link>
  
<joint name="sensor_11_07_fixed" type="fixed">
    <origin xyz="-0.0286 -0.0 0.093" rpy="0 0 0" />
    <parent link="trunk" />
    <child link="sensor_11_07" />
    <axis xyz="0 0 0" />
  </joint>


<link name="sensor_11_08">
    <inertial>
      <origin xyz="0 -1.6653E-16 -5E-05" rpy="0 0 0" />
      <mass value="9.18E-07" />
      <inertia ixx="6.8927E-13" ixy="5.5033E-28" ixz="2.4805E-28" iyy="6.8927E-13" iyz="-3.5387E-24" izz="1.377E-12" />
    </inertial>
    <visual>
      <origin rpy="0 0 0" xyz="0 0 0"/>
      <geometry>
        <box size="0.0113 0.0105 0.001"/>
      </geometry>
      <material name="silver"/>
    </visual>
    <collision>
      <origin rpy="0 0 0" xyz="0 0 0"/>
      <geometry>
        <box size="0.0183 0.0175 0.001"/>
      </geometry>
    </collision>
  </link>
  
<joint name="sensor_11_08_fixed" type="fixed">
    <origin xyz="-0.0286 -0.0128 0.093" rpy="0 0 0" />
    <parent link="trunk" />
    <child link="sensor_11_08" />
    <axis xyz="0 0 0" />
  </joint>


<link name="sensor_11_09">
    <inertial>
      <origin xyz="0 -1.6653E-16 -5E-05" rpy="0 0 0" />
      <mass value="9.18E-07" />
      <inertia ixx="6.8927E-13" ixy="5.5033E-28" ixz="2.4805E-28" iyy="6.8927E-13" iyz="-3.5387E-24" izz="1.377E-12" />
    </inertial>
    <visual>
      <origin rpy="0 0 0" xyz="0 0 0"/>
      <geometry>
        <box size="0.0113 0.0105 0.001"/>
      </geometry>
      <material name="silver"/>
    </visual>
    <collision>
      <origin rpy="0 0 0" xyz="0 0 0"/>
      <geometry>
        <box size="0.0183 0.0175 0.001"/>
      </geometry>
    </collision>
  </link>
  
<joint name="sensor_11_09_fixed" type="fixed">
    <origin xyz="-0.0286 -0.0256 0.093" rpy="0 0 0" />
    <parent link="trunk" />
    <child link="sensor_11_09" />
    <axis xyz="0 0 0" />
  </joint>


<link name="sensor_11_10">
    <inertial>
      <origin xyz="0 -1.6653E-16 -5E-05" rpy="0 0 0" />
      <mass value="9.18E-07" />
      <inertia ixx="6.8927E-13" ixy="5.5033E-28" ixz="2.4805E-28" iyy="6.8927E-13" iyz="-3.5387E-24" izz="1.377E-12" />
    </inertial>
    <visual>
      <origin rpy="0 0 0" xyz="0 0 0"/>
      <geometry>
        <box size="0.0113 0.0105 0.001"/>
      </geometry>
      <material name="silver"/>
    </visual>
    <collision>
      <origin rpy="0 0 0" xyz="0 0 0"/>
      <geometry>
        <box size="0.0183 0.0175 0.001"/>
      </geometry>
    </collision>
  </link>
  
<joint name="sensor_11_10_fixed" type="fixed">
    <origin xyz="-0.0286 -0.0384 0.093" rpy="0 0 0" />
    <parent link="trunk" />
    <child link="sensor_11_10" />
    <axis xyz="0 0 0" />
  </joint>


<link name="sensor_11_11">
    <inertial>
      <origin xyz="0 -1.6653E-16 -5E-05" rpy="0 0 0" />
      <mass value="9.18E-07" />
      <inertia ixx="6.8927E-13" ixy="5.5033E-28" ixz="2.4805E-28" iyy="6.8927E-13" iyz="-3.5387E-24" izz="1.377E-12" />
    </inertial>
    <visual>
      <origin rpy="0 0 0" xyz="0 0 0"/>
      <geometry>
        <box size="0.0113 0.0105 0.001"/>
      </geometry>
      <material name="silver"/>
    </visual>
    <collision>
      <origin rpy="0 0 0" xyz="0 0 0"/>
      <geometry>
        <box size="0.0183 0.0175 0.001"/>
      </geometry>
    </collision>
  </link>
  
<joint name="sensor_11_11_fixed" type="fixed">
    <origin xyz="-0.0286 -0.0512 0.093" rpy="0 0 0" />
    <parent link="trunk" />
    <child link="sensor_11_11" />
    <axis xyz="0 0 0" />
  </joint>


<link name="sensor_11_12">
    <inertial>
      <origin xyz="0 -1.6653E-16 -5E-05" rpy="0 0 0" />
      <mass value="9.18E-07" />
      <inertia ixx="6.8927E-13" ixy="5.5033E-28" ixz="2.4805E-28" iyy="6.8927E-13" iyz="-3.5387E-24" izz="1.377E-12" />
    </inertial>
    <visual>
      <origin rpy="0 0 0" xyz="0 0 0"/>
      <geometry>
        <box size="0.0113 0.0105 0.001"/>
      </geometry>
      <material name="silver"/>
    </visual>
    <collision>
      <origin rpy="0 0 0" xyz="0 0 0"/>
      <geometry>
        <box size="0.0183 0.0175 0.001"/>
      </geometry>
    </collision>
  </link>
  
<joint name="sensor_11_12_fixed" type="fixed">
    <origin xyz="-0.0286 -0.064 0.093" rpy="0 0 0" />
    <parent link="trunk" />
    <child link="sensor_11_12" />
    <axis xyz="0 0 0" />
  </joint>


<link name="sensor_11_13">
    <inertial>
      <origin xyz="0 -1.6653E-16 -5E-05" rpy="0 0 0" />
      <mass value="9.18E-07" />
      <inertia ixx="6.8927E-13" ixy="5.5033E-28" ixz="2.4805E-28" iyy="6.8927E-13" iyz="-3.5387E-24" izz="1.377E-12" />
    </inertial>
    <visual>
      <origin rpy="0 0 0" xyz="0 0 0"/>
      <geometry>
        <box size="0.0113 0.0105 0.001"/>
      </geometry>
      <material name="silver"/>
    </visual>
    <collision>
      <origin rpy="0 0 0" xyz="0 0 0"/>
      <geometry>
        <box size="0.0183 0.0175 0.001"/>
      </geometry>
    </collision>
  </link>
  
<joint name="sensor_11_13_fixed" type="fixed">
    <origin xyz="-0.0286 -0.0768 0.093" rpy="0 0 0" />
    <parent link="trunk" />
    <child link="sensor_11_13" />
    <axis xyz="0 0 0" />
  </joint>


<link name="sensor_12_01">
    <inertial>
      <origin xyz="0 -1.6653E-16 -5E-05" rpy="0 0 0" />
      <mass value="9.18E-07" />
      <inertia ixx="6.8927E-13" ixy="5.5033E-28" ixz="2.4805E-28" iyy="6.8927E-13" iyz="-3.5387E-24" izz="1.377E-12" />
    </inertial>
    <visual>
      <origin rpy="0 0 0" xyz="0 0 0"/>
      <geometry>
        <box size="0.0113 0.0105 0.001"/>
      </geometry>
      <material name="silver"/>
    </visual>
    <collision>
      <origin rpy="0 0 0" xyz="0 0 0"/>
      <geometry>
        <box size="0.0183 0.0175 0.001"/>
      </geometry>
    </collision>
  </link>
  
<joint name="sensor_12_01_fixed" type="fixed">
    <origin xyz="-0.0429 0.0768 0.093" rpy="0 0 0" />
    <parent link="trunk" />
    <child link="sensor_12_01" />
    <axis xyz="0 0 0" />
  </joint>


<link name="sensor_12_02">
    <inertial>
      <origin xyz="0 -1.6653E-16 -5E-05" rpy="0 0 0" />
      <mass value="9.18E-07" />
      <inertia ixx="6.8927E-13" ixy="5.5033E-28" ixz="2.4805E-28" iyy="6.8927E-13" iyz="-3.5387E-24" izz="1.377E-12" />
    </inertial>
    <visual>
      <origin rpy="0 0 0" xyz="0 0 0"/>
      <geometry>
        <box size="0.0113 0.0105 0.001"/>
      </geometry>
      <material name="silver"/>
    </visual>
    <collision>
      <origin rpy="0 0 0" xyz="0 0 0"/>
      <geometry>
        <box size="0.0183 0.0175 0.001"/>
      </geometry>
    </collision>
  </link>
  
<joint name="sensor_12_02_fixed" type="fixed">
    <origin xyz="-0.0429 0.064 0.093" rpy="0 0 0" />
    <parent link="trunk" />
    <child link="sensor_12_02" />
    <axis xyz="0 0 0" />
  </joint>


<link name="sensor_12_03">
    <inertial>
      <origin xyz="0 -1.6653E-16 -5E-05" rpy="0 0 0" />
      <mass value="9.18E-07" />
      <inertia ixx="6.8927E-13" ixy="5.5033E-28" ixz="2.4805E-28" iyy="6.8927E-13" iyz="-3.5387E-24" izz="1.377E-12" />
    </inertial>
    <visual>
      <origin rpy="0 0 0" xyz="0 0 0"/>
      <geometry>
        <box size="0.0113 0.0105 0.001"/>
      </geometry>
      <material name="silver"/>
    </visual>
    <collision>
      <origin rpy="0 0 0" xyz="0 0 0"/>
      <geometry>
        <box size="0.0183 0.0175 0.001"/>
      </geometry>
    </collision>
  </link>
  
<joint name="sensor_12_03_fixed" type="fixed">
    <origin xyz="-0.0429 0.0512 0.093" rpy="0 0 0" />
    <parent link="trunk" />
    <child link="sensor_12_03" />
    <axis xyz="0 0 0" />
  </joint>


<link name="sensor_12_04">
    <inertial>
      <origin xyz="0 -1.6653E-16 -5E-05" rpy="0 0 0" />
      <mass value="9.18E-07" />
      <inertia ixx="6.8927E-13" ixy="5.5033E-28" ixz="2.4805E-28" iyy="6.8927E-13" iyz="-3.5387E-24" izz="1.377E-12" />
    </inertial>
    <visual>
      <origin rpy="0 0 0" xyz="0 0 0"/>
      <geometry>
        <box size="0.0113 0.0105 0.001"/>
      </geometry>
      <material name="silver"/>
    </visual>
    <collision>
      <origin rpy="0 0 0" xyz="0 0 0"/>
      <geometry>
        <box size="0.0183 0.0175 0.001"/>
      </geometry>
    </collision>
  </link>
  
<joint name="sensor_12_04_fixed" type="fixed">
    <origin xyz="-0.0429 0.0384 0.093" rpy="0 0 0" />
    <parent link="trunk" />
    <child link="sensor_12_04" />
    <axis xyz="0 0 0" />
  </joint>


<link name="sensor_12_05">
    <inertial>
      <origin xyz="0 -1.6653E-16 -5E-05" rpy="0 0 0" />
      <mass value="9.18E-07" />
      <inertia ixx="6.8927E-13" ixy="5.5033E-28" ixz="2.4805E-28" iyy="6.8927E-13" iyz="-3.5387E-24" izz="1.377E-12" />
    </inertial>
    <visual>
      <origin rpy="0 0 0" xyz="0 0 0"/>
      <geometry>
        <box size="0.0113 0.0105 0.001"/>
      </geometry>
      <material name="silver"/>
    </visual>
    <collision>
      <origin rpy="0 0 0" xyz="0 0 0"/>
      <geometry>
        <box size="0.0183 0.0175 0.001"/>
      </geometry>
    </collision>
  </link>
  
<joint name="sensor_12_05_fixed" type="fixed">
    <origin xyz="-0.0429 0.0256 0.093" rpy="0 0 0" />
    <parent link="trunk" />
    <child link="sensor_12_05" />
    <axis xyz="0 0 0" />
  </joint>


<link name="sensor_12_06">
    <inertial>
      <origin xyz="0 -1.6653E-16 -5E-05" rpy="0 0 0" />
      <mass value="9.18E-07" />
      <inertia ixx="6.8927E-13" ixy="5.5033E-28" ixz="2.4805E-28" iyy="6.8927E-13" iyz="-3.5387E-24" izz="1.377E-12" />
    </inertial>
    <visual>
      <origin rpy="0 0 0" xyz="0 0 0"/>
      <geometry>
        <box size="0.0113 0.0105 0.001"/>
      </geometry>
      <material name="silver"/>
    </visual>
    <collision>
      <origin rpy="0 0 0" xyz="0 0 0"/>
      <geometry>
        <box size="0.0183 0.0175 0.001"/>
      </geometry>
    </collision>
  </link>
  
<joint name="sensor_12_06_fixed" type="fixed">
    <origin xyz="-0.0429 0.0128 0.093" rpy="0 0 0" />
    <parent link="trunk" />
    <child link="sensor_12_06" />
    <axis xyz="0 0 0" />
  </joint>


<link name="sensor_12_07">
    <inertial>
      <origin xyz="0 -1.6653E-16 -5E-05" rpy="0 0 0" />
      <mass value="9.18E-07" />
      <inertia ixx="6.8927E-13" ixy="5.5033E-28" ixz="2.4805E-28" iyy="6.8927E-13" iyz="-3.5387E-24" izz="1.377E-12" />
    </inertial>
    <visual>
      <origin rpy="0 0 0" xyz="0 0 0"/>
      <geometry>
        <box size="0.0113 0.0105 0.001"/>
      </geometry>
      <material name="silver"/>
    </visual>
    <collision>
      <origin rpy="0 0 0" xyz="0 0 0"/>
      <geometry>
        <box size="0.0183 0.0175 0.001"/>
      </geometry>
    </collision>
  </link>
  
<joint name="sensor_12_07_fixed" type="fixed">
    <origin xyz="-0.0429 -0.0 0.093" rpy="0 0 0" />
    <parent link="trunk" />
    <child link="sensor_12_07" />
    <axis xyz="0 0 0" />
  </joint>


<link name="sensor_12_08">
    <inertial>
      <origin xyz="0 -1.6653E-16 -5E-05" rpy="0 0 0" />
      <mass value="9.18E-07" />
      <inertia ixx="6.8927E-13" ixy="5.5033E-28" ixz="2.4805E-28" iyy="6.8927E-13" iyz="-3.5387E-24" izz="1.377E-12" />
    </inertial>
    <visual>
      <origin rpy="0 0 0" xyz="0 0 0"/>
      <geometry>
        <box size="0.0113 0.0105 0.001"/>
      </geometry>
      <material name="silver"/>
    </visual>
    <collision>
      <origin rpy="0 0 0" xyz="0 0 0"/>
      <geometry>
        <box size="0.0183 0.0175 0.001"/>
      </geometry>
    </collision>
  </link>
  
<joint name="sensor_12_08_fixed" type="fixed">
    <origin xyz="-0.0429 -0.0128 0.093" rpy="0 0 0" />
    <parent link="trunk" />
    <child link="sensor_12_08" />
    <axis xyz="0 0 0" />
  </joint>


<link name="sensor_12_09">
    <inertial>
      <origin xyz="0 -1.6653E-16 -5E-05" rpy="0 0 0" />
      <mass value="9.18E-07" />
      <inertia ixx="6.8927E-13" ixy="5.5033E-28" ixz="2.4805E-28" iyy="6.8927E-13" iyz="-3.5387E-24" izz="1.377E-12" />
    </inertial>
    <visual>
      <origin rpy="0 0 0" xyz="0 0 0"/>
      <geometry>
        <box size="0.0113 0.0105 0.001"/>
      </geometry>
      <material name="silver"/>
    </visual>
    <collision>
      <origin rpy="0 0 0" xyz="0 0 0"/>
      <geometry>
        <box size="0.0183 0.0175 0.001"/>
      </geometry>
    </collision>
  </link>
  
<joint name="sensor_12_09_fixed" type="fixed">
    <origin xyz="-0.0429 -0.0256 0.093" rpy="0 0 0" />
    <parent link="trunk" />
    <child link="sensor_12_09" />
    <axis xyz="0 0 0" />
  </joint>


<link name="sensor_12_10">
    <inertial>
      <origin xyz="0 -1.6653E-16 -5E-05" rpy="0 0 0" />
      <mass value="9.18E-07" />
      <inertia ixx="6.8927E-13" ixy="5.5033E-28" ixz="2.4805E-28" iyy="6.8927E-13" iyz="-3.5387E-24" izz="1.377E-12" />
    </inertial>
    <visual>
      <origin rpy="0 0 0" xyz="0 0 0"/>
      <geometry>
        <box size="0.0113 0.0105 0.001"/>
      </geometry>
      <material name="silver"/>
    </visual>
    <collision>
      <origin rpy="0 0 0" xyz="0 0 0"/>
      <geometry>
        <box size="0.0183 0.0175 0.001"/>
      </geometry>
    </collision>
  </link>
  
<joint name="sensor_12_10_fixed" type="fixed">
    <origin xyz="-0.0429 -0.0384 0.093" rpy="0 0 0" />
    <parent link="trunk" />
    <child link="sensor_12_10" />
    <axis xyz="0 0 0" />
  </joint>


<link name="sensor_12_11">
    <inertial>
      <origin xyz="0 -1.6653E-16 -5E-05" rpy="0 0 0" />
      <mass value="9.18E-07" />
      <inertia ixx="6.8927E-13" ixy="5.5033E-28" ixz="2.4805E-28" iyy="6.8927E-13" iyz="-3.5387E-24" izz="1.377E-12" />
    </inertial>
    <visual>
      <origin rpy="0 0 0" xyz="0 0 0"/>
      <geometry>
        <box size="0.0113 0.0105 0.001"/>
      </geometry>
      <material name="silver"/>
    </visual>
    <collision>
      <origin rpy="0 0 0" xyz="0 0 0"/>
      <geometry>
        <box size="0.0183 0.0175 0.001"/>
      </geometry>
    </collision>
  </link>
  
<joint name="sensor_12_11_fixed" type="fixed">
    <origin xyz="-0.0429 -0.0512 0.093" rpy="0 0 0" />
    <parent link="trunk" />
    <child link="sensor_12_11" />
    <axis xyz="0 0 0" />
  </joint>


<link name="sensor_12_12">
    <inertial>
      <origin xyz="0 -1.6653E-16 -5E-05" rpy="0 0 0" />
      <mass value="9.18E-07" />
      <inertia ixx="6.8927E-13" ixy="5.5033E-28" ixz="2.4805E-28" iyy="6.8927E-13" iyz="-3.5387E-24" izz="1.377E-12" />
    </inertial>
    <visual>
      <origin rpy="0 0 0" xyz="0 0 0"/>
      <geometry>
        <box size="0.0113 0.0105 0.001"/>
      </geometry>
      <material name="silver"/>
    </visual>
    <collision>
      <origin rpy="0 0 0" xyz="0 0 0"/>
      <geometry>
        <box size="0.0183 0.0175 0.001"/>
      </geometry>
    </collision>
  </link>
  
<joint name="sensor_12_12_fixed" type="fixed">
    <origin xyz="-0.0429 -0.064 0.093" rpy="0 0 0" />
    <parent link="trunk" />
    <child link="sensor_12_12" />
    <axis xyz="0 0 0" />
  </joint>


<link name="sensor_12_13">
    <inertial>
      <origin xyz="0 -1.6653E-16 -5E-05" rpy="0 0 0" />
      <mass value="9.18E-07" />
      <inertia ixx="6.8927E-13" ixy="5.5033E-28" ixz="2.4805E-28" iyy="6.8927E-13" iyz="-3.5387E-24" izz="1.377E-12" />
    </inertial>
    <visual>
      <origin rpy="0 0 0" xyz="0 0 0"/>
      <geometry>
        <box size="0.0113 0.0105 0.001"/>
      </geometry>
      <material name="silver"/>
    </visual>
    <collision>
      <origin rpy="0 0 0" xyz="0 0 0"/>
      <geometry>
        <box size="0.0183 0.0175 0.001"/>
      </geometry>
    </collision>
  </link>
  
<joint name="sensor_12_13_fixed" type="fixed">
    <origin xyz="-0.0429 -0.0768 0.093" rpy="0 0 0" />
    <parent link="trunk" />
    <child link="sensor_12_13" />
    <axis xyz="0 0 0" />
  </joint>


<link name="sensor_13_01">
    <inertial>
      <origin xyz="0 -1.6653E-16 -5E-05" rpy="0 0 0" />
      <mass value="9.18E-07" />
      <inertia ixx="6.8927E-13" ixy="5.5033E-28" ixz="2.4805E-28" iyy="6.8927E-13" iyz="-3.5387E-24" izz="1.377E-12" />
    </inertial>
    <visual>
      <origin rpy="0 0 0" xyz="0 0 0"/>
      <geometry>
        <box size="0.0113 0.0105 0.001"/>
      </geometry>
      <material name="silver"/>
    </visual>
    <collision>
      <origin rpy="0 0 0" xyz="0 0 0"/>
      <geometry>
        <box size="0.0183 0.0175 0.001"/>
      </geometry>
    </collision>
  </link>
  
<joint name="sensor_13_01_fixed" type="fixed">
    <origin xyz="-0.0572 0.0768 0.093" rpy="0 0 0" />
    <parent link="trunk" />
    <child link="sensor_13_01" />
    <axis xyz="0 0 0" />
  </joint>


<link name="sensor_13_02">
    <inertial>
      <origin xyz="0 -1.6653E-16 -5E-05" rpy="0 0 0" />
      <mass value="9.18E-07" />
      <inertia ixx="6.8927E-13" ixy="5.5033E-28" ixz="2.4805E-28" iyy="6.8927E-13" iyz="-3.5387E-24" izz="1.377E-12" />
    </inertial>
    <visual>
      <origin rpy="0 0 0" xyz="0 0 0"/>
      <geometry>
        <box size="0.0113 0.0105 0.001"/>
      </geometry>
      <material name="silver"/>
    </visual>
    <collision>
      <origin rpy="0 0 0" xyz="0 0 0"/>
      <geometry>
        <box size="0.0183 0.0175 0.001"/>
      </geometry>
    </collision>
  </link>
  
<joint name="sensor_13_02_fixed" type="fixed">
    <origin xyz="-0.0572 0.064 0.093" rpy="0 0 0" />
    <parent link="trunk" />
    <child link="sensor_13_02" />
    <axis xyz="0 0 0" />
  </joint>


<link name="sensor_13_03">
    <inertial>
      <origin xyz="0 -1.6653E-16 -5E-05" rpy="0 0 0" />
      <mass value="9.18E-07" />
      <inertia ixx="6.8927E-13" ixy="5.5033E-28" ixz="2.4805E-28" iyy="6.8927E-13" iyz="-3.5387E-24" izz="1.377E-12" />
    </inertial>
    <visual>
      <origin rpy="0 0 0" xyz="0 0 0"/>
      <geometry>
        <box size="0.0113 0.0105 0.001"/>
      </geometry>
      <material name="silver"/>
    </visual>
    <collision>
      <origin rpy="0 0 0" xyz="0 0 0"/>
      <geometry>
        <box size="0.0183 0.0175 0.001"/>
      </geometry>
    </collision>
  </link>
  
<joint name="sensor_13_03_fixed" type="fixed">
    <origin xyz="-0.0572 0.0512 0.093" rpy="0 0 0" />
    <parent link="trunk" />
    <child link="sensor_13_03" />
    <axis xyz="0 0 0" />
  </joint>


<link name="sensor_13_04">
    <inertial>
      <origin xyz="0 -1.6653E-16 -5E-05" rpy="0 0 0" />
      <mass value="9.18E-07" />
      <inertia ixx="6.8927E-13" ixy="5.5033E-28" ixz="2.4805E-28" iyy="6.8927E-13" iyz="-3.5387E-24" izz="1.377E-12" />
    </inertial>
    <visual>
      <origin rpy="0 0 0" xyz="0 0 0"/>
      <geometry>
        <box size="0.0113 0.0105 0.001"/>
      </geometry>
      <material name="silver"/>
    </visual>
    <collision>
      <origin rpy="0 0 0" xyz="0 0 0"/>
      <geometry>
        <box size="0.0183 0.0175 0.001"/>
      </geometry>
    </collision>
  </link>
  
<joint name="sensor_13_04_fixed" type="fixed">
    <origin xyz="-0.0572 0.0384 0.093" rpy="0 0 0" />
    <parent link="trunk" />
    <child link="sensor_13_04" />
    <axis xyz="0 0 0" />
  </joint>


<link name="sensor_13_05">
    <inertial>
      <origin xyz="0 -1.6653E-16 -5E-05" rpy="0 0 0" />
      <mass value="9.18E-07" />
      <inertia ixx="6.8927E-13" ixy="5.5033E-28" ixz="2.4805E-28" iyy="6.8927E-13" iyz="-3.5387E-24" izz="1.377E-12" />
    </inertial>
    <visual>
      <origin rpy="0 0 0" xyz="0 0 0"/>
      <geometry>
        <box size="0.0113 0.0105 0.001"/>
      </geometry>
      <material name="silver"/>
    </visual>
    <collision>
      <origin rpy="0 0 0" xyz="0 0 0"/>
      <geometry>
        <box size="0.0183 0.0175 0.001"/>
      </geometry>
    </collision>
  </link>
  
<joint name="sensor_13_05_fixed" type="fixed">
    <origin xyz="-0.0572 0.0256 0.093" rpy="0 0 0" />
    <parent link="trunk" />
    <child link="sensor_13_05" />
    <axis xyz="0 0 0" />
  </joint>


<link name="sensor_13_06">
    <inertial>
      <origin xyz="0 -1.6653E-16 -5E-05" rpy="0 0 0" />
      <mass value="9.18E-07" />
      <inertia ixx="6.8927E-13" ixy="5.5033E-28" ixz="2.4805E-28" iyy="6.8927E-13" iyz="-3.5387E-24" izz="1.377E-12" />
    </inertial>
    <visual>
      <origin rpy="0 0 0" xyz="0 0 0"/>
      <geometry>
        <box size="0.0113 0.0105 0.001"/>
      </geometry>
      <material name="silver"/>
    </visual>
    <collision>
      <origin rpy="0 0 0" xyz="0 0 0"/>
      <geometry>
        <box size="0.0183 0.0175 0.001"/>
      </geometry>
    </collision>
  </link>
  
<joint name="sensor_13_06_fixed" type="fixed">
    <origin xyz="-0.0572 0.0128 0.093" rpy="0 0 0" />
    <parent link="trunk" />
    <child link="sensor_13_06" />
    <axis xyz="0 0 0" />
  </joint>


<link name="sensor_13_07">
    <inertial>
      <origin xyz="0 -1.6653E-16 -5E-05" rpy="0 0 0" />
      <mass value="9.18E-07" />
      <inertia ixx="6.8927E-13" ixy="5.5033E-28" ixz="2.4805E-28" iyy="6.8927E-13" iyz="-3.5387E-24" izz="1.377E-12" />
    </inertial>
    <visual>
      <origin rpy="0 0 0" xyz="0 0 0"/>
      <geometry>
        <box size="0.0113 0.0105 0.001"/>
      </geometry>
      <material name="silver"/>
    </visual>
    <collision>
      <origin rpy="0 0 0" xyz="0 0 0"/>
      <geometry>
        <box size="0.0183 0.0175 0.001"/>
      </geometry>
    </collision>
  </link>
  
<joint name="sensor_13_07_fixed" type="fixed">
    <origin xyz="-0.0572 -0.0 0.093" rpy="0 0 0" />
    <parent link="trunk" />
    <child link="sensor_13_07" />
    <axis xyz="0 0 0" />
  </joint>


<link name="sensor_13_08">
    <inertial>
      <origin xyz="0 -1.6653E-16 -5E-05" rpy="0 0 0" />
      <mass value="9.18E-07" />
      <inertia ixx="6.8927E-13" ixy="5.5033E-28" ixz="2.4805E-28" iyy="6.8927E-13" iyz="-3.5387E-24" izz="1.377E-12" />
    </inertial>
    <visual>
      <origin rpy="0 0 0" xyz="0 0 0"/>
      <geometry>
        <box size="0.0113 0.0105 0.001"/>
      </geometry>
      <material name="silver"/>
    </visual>
    <collision>
      <origin rpy="0 0 0" xyz="0 0 0"/>
      <geometry>
        <box size="0.0183 0.0175 0.001"/>
      </geometry>
    </collision>
  </link>
  
<joint name="sensor_13_08_fixed" type="fixed">
    <origin xyz="-0.0572 -0.0128 0.093" rpy="0 0 0" />
    <parent link="trunk" />
    <child link="sensor_13_08" />
    <axis xyz="0 0 0" />
  </joint>


<link name="sensor_13_09">
    <inertial>
      <origin xyz="0 -1.6653E-16 -5E-05" rpy="0 0 0" />
      <mass value="9.18E-07" />
      <inertia ixx="6.8927E-13" ixy="5.5033E-28" ixz="2.4805E-28" iyy="6.8927E-13" iyz="-3.5387E-24" izz="1.377E-12" />
    </inertial>
    <visual>
      <origin rpy="0 0 0" xyz="0 0 0"/>
      <geometry>
        <box size="0.0113 0.0105 0.001"/>
      </geometry>
      <material name="silver"/>
    </visual>
    <collision>
      <origin rpy="0 0 0" xyz="0 0 0"/>
      <geometry>
        <box size="0.0183 0.0175 0.001"/>
      </geometry>
    </collision>
  </link>
  
<joint name="sensor_13_09_fixed" type="fixed">
    <origin xyz="-0.0572 -0.0256 0.093" rpy="0 0 0" />
    <parent link="trunk" />
    <child link="sensor_13_09" />
    <axis xyz="0 0 0" />
  </joint>


<link name="sensor_13_10">
    <inertial>
      <origin xyz="0 -1.6653E-16 -5E-05" rpy="0 0 0" />
      <mass value="9.18E-07" />
      <inertia ixx="6.8927E-13" ixy="5.5033E-28" ixz="2.4805E-28" iyy="6.8927E-13" iyz="-3.5387E-24" izz="1.377E-12" />
    </inertial>
    <visual>
      <origin rpy="0 0 0" xyz="0 0 0"/>
      <geometry>
        <box size="0.0113 0.0105 0.001"/>
      </geometry>
      <material name="silver"/>
    </visual>
    <collision>
      <origin rpy="0 0 0" xyz="0 0 0"/>
      <geometry>
        <box size="0.0183 0.0175 0.001"/>
      </geometry>
    </collision>
  </link>
  
<joint name="sensor_13_10_fixed" type="fixed">
    <origin xyz="-0.0572 -0.0384 0.093" rpy="0 0 0" />
    <parent link="trunk" />
    <child link="sensor_13_10" />
    <axis xyz="0 0 0" />
  </joint>


<link name="sensor_13_11">
    <inertial>
      <origin xyz="0 -1.6653E-16 -5E-05" rpy="0 0 0" />
      <mass value="9.18E-07" />
      <inertia ixx="6.8927E-13" ixy="5.5033E-28" ixz="2.4805E-28" iyy="6.8927E-13" iyz="-3.5387E-24" izz="1.377E-12" />
    </inertial>
    <visual>
      <origin rpy="0 0 0" xyz="0 0 0"/>
      <geometry>
        <box size="0.0113 0.0105 0.001"/>
      </geometry>
      <material name="silver"/>
    </visual>
    <collision>
      <origin rpy="0 0 0" xyz="0 0 0"/>
      <geometry>
        <box size="0.0183 0.0175 0.001"/>
      </geometry>
    </collision>
  </link>
  
<joint name="sensor_13_11_fixed" type="fixed">
    <origin xyz="-0.0572 -0.0512 0.093" rpy="0 0 0" />
    <parent link="trunk" />
    <child link="sensor_13_11" />
    <axis xyz="0 0 0" />
  </joint>


<link name="sensor_13_12">
    <inertial>
      <origin xyz="0 -1.6653E-16 -5E-05" rpy="0 0 0" />
      <mass value="9.18E-07" />
      <inertia ixx="6.8927E-13" ixy="5.5033E-28" ixz="2.4805E-28" iyy="6.8927E-13" iyz="-3.5387E-24" izz="1.377E-12" />
    </inertial>
    <visual>
      <origin rpy="0 0 0" xyz="0 0 0"/>
      <geometry>
        <box size="0.0113 0.0105 0.001"/>
      </geometry>
      <material name="silver"/>
    </visual>
    <collision>
      <origin rpy="0 0 0" xyz="0 0 0"/>
      <geometry>
        <box size="0.0183 0.0175 0.001"/>
      </geometry>
    </collision>
  </link>
  
<joint name="sensor_13_12_fixed" type="fixed">
    <origin xyz="-0.0572 -0.064 0.093" rpy="0 0 0" />
    <parent link="trunk" />
    <child link="sensor_13_12" />
    <axis xyz="0 0 0" />
  </joint>


<link name="sensor_13_13">
    <inertial>
      <origin xyz="0 -1.6653E-16 -5E-05" rpy="0 0 0" />
      <mass value="9.18E-07" />
      <inertia ixx="6.8927E-13" ixy="5.5033E-28" ixz="2.4805E-28" iyy="6.8927E-13" iyz="-3.5387E-24" izz="1.377E-12" />
    </inertial>
    <visual>
      <origin rpy="0 0 0" xyz="0 0 0"/>
      <geometry>
        <box size="0.0113 0.0105 0.001"/>
      </geometry>
      <material name="silver"/>
    </visual>
    <collision>
      <origin rpy="0 0 0" xyz="0 0 0"/>
      <geometry>
        <box size="0.0183 0.0175 0.001"/>
      </geometry>
    </collision>
  </link>
  
<joint name="sensor_13_13_fixed" type="fixed">
    <origin xyz="-0.0572 -0.0768 0.093" rpy="0 0 0" />
    <parent link="trunk" />
    <child link="sensor_13_13" />
    <axis xyz="0 0 0" />
  </joint>


<link name="sensor_14_01">
    <inertial>
      <origin xyz="0 -1.6653E-16 -5E-05" rpy="0 0 0" />
      <mass value="9.18E-07" />
      <inertia ixx="6.8927E-13" ixy="5.5033E-28" ixz="2.4805E-28" iyy="6.8927E-13" iyz="-3.5387E-24" izz="1.377E-12" />
    </inertial>
    <visual>
      <origin rpy="0 0 0" xyz="0 0 0"/>
      <geometry>
        <box size="0.0113 0.0105 0.001"/>
      </geometry>
      <material name="silver"/>
    </visual>
    <collision>
      <origin rpy="0 0 0" xyz="0 0 0"/>
      <geometry>
        <box size="0.0183 0.0175 0.001"/>
      </geometry>
    </collision>
  </link>
  
<joint name="sensor_14_01_fixed" type="fixed">
    <origin xyz="-0.0715 0.0768 0.093" rpy="0 0 0" />
    <parent link="trunk" />
    <child link="sensor_14_01" />
    <axis xyz="0 0 0" />
  </joint>


<link name="sensor_14_02">
    <inertial>
      <origin xyz="0 -1.6653E-16 -5E-05" rpy="0 0 0" />
      <mass value="9.18E-07" />
      <inertia ixx="6.8927E-13" ixy="5.5033E-28" ixz="2.4805E-28" iyy="6.8927E-13" iyz="-3.5387E-24" izz="1.377E-12" />
    </inertial>
    <visual>
      <origin rpy="0 0 0" xyz="0 0 0"/>
      <geometry>
        <box size="0.0113 0.0105 0.001"/>
      </geometry>
      <material name="silver"/>
    </visual>
    <collision>
      <origin rpy="0 0 0" xyz="0 0 0"/>
      <geometry>
        <box size="0.0183 0.0175 0.001"/>
      </geometry>
    </collision>
  </link>
  
<joint name="sensor_14_02_fixed" type="fixed">
    <origin xyz="-0.0715 0.064 0.093" rpy="0 0 0" />
    <parent link="trunk" />
    <child link="sensor_14_02" />
    <axis xyz="0 0 0" />
  </joint>


<link name="sensor_14_03">
    <inertial>
      <origin xyz="0 -1.6653E-16 -5E-05" rpy="0 0 0" />
      <mass value="9.18E-07" />
      <inertia ixx="6.8927E-13" ixy="5.5033E-28" ixz="2.4805E-28" iyy="6.8927E-13" iyz="-3.5387E-24" izz="1.377E-12" />
    </inertial>
    <visual>
      <origin rpy="0 0 0" xyz="0 0 0"/>
      <geometry>
        <box size="0.0113 0.0105 0.001"/>
      </geometry>
      <material name="silver"/>
    </visual>
    <collision>
      <origin rpy="0 0 0" xyz="0 0 0"/>
      <geometry>
        <box size="0.0183 0.0175 0.001"/>
      </geometry>
    </collision>
  </link>
  
<joint name="sensor_14_03_fixed" type="fixed">
    <origin xyz="-0.0715 0.0512 0.093" rpy="0 0 0" />
    <parent link="trunk" />
    <child link="sensor_14_03" />
    <axis xyz="0 0 0" />
  </joint>


<link name="sensor_14_04">
    <inertial>
      <origin xyz="0 -1.6653E-16 -5E-05" rpy="0 0 0" />
      <mass value="9.18E-07" />
      <inertia ixx="6.8927E-13" ixy="5.5033E-28" ixz="2.4805E-28" iyy="6.8927E-13" iyz="-3.5387E-24" izz="1.377E-12" />
    </inertial>
    <visual>
      <origin rpy="0 0 0" xyz="0 0 0"/>
      <geometry>
        <box size="0.0113 0.0105 0.001"/>
      </geometry>
      <material name="silver"/>
    </visual>
    <collision>
      <origin rpy="0 0 0" xyz="0 0 0"/>
      <geometry>
        <box size="0.0183 0.0175 0.001"/>
      </geometry>
    </collision>
  </link>
  
<joint name="sensor_14_04_fixed" type="fixed">
    <origin xyz="-0.0715 0.0384 0.093" rpy="0 0 0" />
    <parent link="trunk" />
    <child link="sensor_14_04" />
    <axis xyz="0 0 0" />
  </joint>


<link name="sensor_14_05">
    <inertial>
      <origin xyz="0 -1.6653E-16 -5E-05" rpy="0 0 0" />
      <mass value="9.18E-07" />
      <inertia ixx="6.8927E-13" ixy="5.5033E-28" ixz="2.4805E-28" iyy="6.8927E-13" iyz="-3.5387E-24" izz="1.377E-12" />
    </inertial>
    <visual>
      <origin rpy="0 0 0" xyz="0 0 0"/>
      <geometry>
        <box size="0.0113 0.0105 0.001"/>
      </geometry>
      <material name="silver"/>
    </visual>
    <collision>
      <origin rpy="0 0 0" xyz="0 0 0"/>
      <geometry>
        <box size="0.0183 0.0175 0.001"/>
      </geometry>
    </collision>
  </link>
  
<joint name="sensor_14_05_fixed" type="fixed">
    <origin xyz="-0.0715 0.0256 0.093" rpy="0 0 0" />
    <parent link="trunk" />
    <child link="sensor_14_05" />
    <axis xyz="0 0 0" />
  </joint>


<link name="sensor_14_06">
    <inertial>
      <origin xyz="0 -1.6653E-16 -5E-05" rpy="0 0 0" />
      <mass value="9.18E-07" />
      <inertia ixx="6.8927E-13" ixy="5.5033E-28" ixz="2.4805E-28" iyy="6.8927E-13" iyz="-3.5387E-24" izz="1.377E-12" />
    </inertial>
    <visual>
      <origin rpy="0 0 0" xyz="0 0 0"/>
      <geometry>
        <box size="0.0113 0.0105 0.001"/>
      </geometry>
      <material name="silver"/>
    </visual>
    <collision>
      <origin rpy="0 0 0" xyz="0 0 0"/>
      <geometry>
        <box size="0.0183 0.0175 0.001"/>
      </geometry>
    </collision>
  </link>
  
<joint name="sensor_14_06_fixed" type="fixed">
    <origin xyz="-0.0715 0.0128 0.093" rpy="0 0 0" />
    <parent link="trunk" />
    <child link="sensor_14_06" />
    <axis xyz="0 0 0" />
  </joint>


<link name="sensor_14_07">
    <inertial>
      <origin xyz="0 -1.6653E-16 -5E-05" rpy="0 0 0" />
      <mass value="9.18E-07" />
      <inertia ixx="6.8927E-13" ixy="5.5033E-28" ixz="2.4805E-28" iyy="6.8927E-13" iyz="-3.5387E-24" izz="1.377E-12" />
    </inertial>
    <visual>
      <origin rpy="0 0 0" xyz="0 0 0"/>
      <geometry>
        <box size="0.0113 0.0105 0.001"/>
      </geometry>
      <material name="silver"/>
    </visual>
    <collision>
      <origin rpy="0 0 0" xyz="0 0 0"/>
      <geometry>
        <box size="0.0183 0.0175 0.001"/>
      </geometry>
    </collision>
  </link>
  
<joint name="sensor_14_07_fixed" type="fixed">
    <origin xyz="-0.0715 -0.0 0.093" rpy="0 0 0" />
    <parent link="trunk" />
    <child link="sensor_14_07" />
    <axis xyz="0 0 0" />
  </joint>


<link name="sensor_14_08">
    <inertial>
      <origin xyz="0 -1.6653E-16 -5E-05" rpy="0 0 0" />
      <mass value="9.18E-07" />
      <inertia ixx="6.8927E-13" ixy="5.5033E-28" ixz="2.4805E-28" iyy="6.8927E-13" iyz="-3.5387E-24" izz="1.377E-12" />
    </inertial>
    <visual>
      <origin rpy="0 0 0" xyz="0 0 0"/>
      <geometry>
        <box size="0.0113 0.0105 0.001"/>
      </geometry>
      <material name="silver"/>
    </visual>
    <collision>
      <origin rpy="0 0 0" xyz="0 0 0"/>
      <geometry>
        <box size="0.0183 0.0175 0.001"/>
      </geometry>
    </collision>
  </link>
  
<joint name="sensor_14_08_fixed" type="fixed">
    <origin xyz="-0.0715 -0.0128 0.093" rpy="0 0 0" />
    <parent link="trunk" />
    <child link="sensor_14_08" />
    <axis xyz="0 0 0" />
  </joint>


<link name="sensor_14_09">
    <inertial>
      <origin xyz="0 -1.6653E-16 -5E-05" rpy="0 0 0" />
      <mass value="9.18E-07" />
      <inertia ixx="6.8927E-13" ixy="5.5033E-28" ixz="2.4805E-28" iyy="6.8927E-13" iyz="-3.5387E-24" izz="1.377E-12" />
    </inertial>
    <visual>
      <origin rpy="0 0 0" xyz="0 0 0"/>
      <geometry>
        <box size="0.0113 0.0105 0.001"/>
      </geometry>
      <material name="silver"/>
    </visual>
    <collision>
      <origin rpy="0 0 0" xyz="0 0 0"/>
      <geometry>
        <box size="0.0183 0.0175 0.001"/>
      </geometry>
    </collision>
  </link>
  
<joint name="sensor_14_09_fixed" type="fixed">
    <origin xyz="-0.0715 -0.0256 0.093" rpy="0 0 0" />
    <parent link="trunk" />
    <child link="sensor_14_09" />
    <axis xyz="0 0 0" />
  </joint>


<link name="sensor_14_10">
    <inertial>
      <origin xyz="0 -1.6653E-16 -5E-05" rpy="0 0 0" />
      <mass value="9.18E-07" />
      <inertia ixx="6.8927E-13" ixy="5.5033E-28" ixz="2.4805E-28" iyy="6.8927E-13" iyz="-3.5387E-24" izz="1.377E-12" />
    </inertial>
    <visual>
      <origin rpy="0 0 0" xyz="0 0 0"/>
      <geometry>
        <box size="0.0113 0.0105 0.001"/>
      </geometry>
      <material name="silver"/>
    </visual>
    <collision>
      <origin rpy="0 0 0" xyz="0 0 0"/>
      <geometry>
        <box size="0.0183 0.0175 0.001"/>
      </geometry>
    </collision>
  </link>
  
<joint name="sensor_14_10_fixed" type="fixed">
    <origin xyz="-0.0715 -0.0384 0.093" rpy="0 0 0" />
    <parent link="trunk" />
    <child link="sensor_14_10" />
    <axis xyz="0 0 0" />
  </joint>


<link name="sensor_14_11">
    <inertial>
      <origin xyz="0 -1.6653E-16 -5E-05" rpy="0 0 0" />
      <mass value="9.18E-07" />
      <inertia ixx="6.8927E-13" ixy="5.5033E-28" ixz="2.4805E-28" iyy="6.8927E-13" iyz="-3.5387E-24" izz="1.377E-12" />
    </inertial>
    <visual>
      <origin rpy="0 0 0" xyz="0 0 0"/>
      <geometry>
        <box size="0.0113 0.0105 0.001"/>
      </geometry>
      <material name="silver"/>
    </visual>
    <collision>
      <origin rpy="0 0 0" xyz="0 0 0"/>
      <geometry>
        <box size="0.0183 0.0175 0.001"/>
      </geometry>
    </collision>
  </link>
  
<joint name="sensor_14_11_fixed" type="fixed">
    <origin xyz="-0.0715 -0.0512 0.093" rpy="0 0 0" />
    <parent link="trunk" />
    <child link="sensor_14_11" />
    <axis xyz="0 0 0" />
  </joint>


<link name="sensor_14_12">
    <inertial>
      <origin xyz="0 -1.6653E-16 -5E-05" rpy="0 0 0" />
      <mass value="9.18E-07" />
      <inertia ixx="6.8927E-13" ixy="5.5033E-28" ixz="2.4805E-28" iyy="6.8927E-13" iyz="-3.5387E-24" izz="1.377E-12" />
    </inertial>
    <visual>
      <origin rpy="0 0 0" xyz="0 0 0"/>
      <geometry>
        <box size="0.0113 0.0105 0.001"/>
      </geometry>
      <material name="silver"/>
    </visual>
    <collision>
      <origin rpy="0 0 0" xyz="0 0 0"/>
      <geometry>
        <box size="0.0183 0.0175 0.001"/>
      </geometry>
    </collision>
  </link>
  
<joint name="sensor_14_12_fixed" type="fixed">
    <origin xyz="-0.0715 -0.064 0.093" rpy="0 0 0" />
    <parent link="trunk" />
    <child link="sensor_14_12" />
    <axis xyz="0 0 0" />
  </joint>


<link name="sensor_14_13">
    <inertial>
      <origin xyz="0 -1.6653E-16 -5E-05" rpy="0 0 0" />
      <mass value="9.18E-07" />
      <inertia ixx="6.8927E-13" ixy="5.5033E-28" ixz="2.4805E-28" iyy="6.8927E-13" iyz="-3.5387E-24" izz="1.377E-12" />
    </inertial>
    <visual>
      <origin rpy="0 0 0" xyz="0 0 0"/>
      <geometry>
        <box size="0.0113 0.0105 0.001"/>
      </geometry>
      <material name="silver"/>
    </visual>
    <collision>
      <origin rpy="0 0 0" xyz="0 0 0"/>
      <geometry>
        <box size="0.0183 0.0175 0.001"/>
      </geometry>
    </collision>
  </link>
  
<joint name="sensor_14_13_fixed" type="fixed">
    <origin xyz="-0.0715 -0.0768 0.093" rpy="0 0 0" />
    <parent link="trunk" />
    <child link="sensor_14_13" />
    <axis xyz="0 0 0" />
  </joint>


<link name="sensor_15_01">
    <inertial>
      <origin xyz="0 -1.6653E-16 -5E-05" rpy="0 0 0" />
      <mass value="9.18E-07" />
      <inertia ixx="6.8927E-13" ixy="5.5033E-28" ixz="2.4805E-28" iyy="6.8927E-13" iyz="-3.5387E-24" izz="1.377E-12" />
    </inertial>
    <visual>
      <origin rpy="0 0 0" xyz="0 0 0"/>
      <geometry>
        <box size="0.0113 0.0105 0.001"/>
      </geometry>
      <material name="silver"/>
    </visual>
    <collision>
      <origin rpy="0 0 0" xyz="0 0 0"/>
      <geometry>
        <box size="0.0183 0.0175 0.001"/>
      </geometry>
    </collision>
  </link>
  
<joint name="sensor_15_01_fixed" type="fixed">
    <origin xyz="-0.0858 0.0768 0.093" rpy="0 0 0" />
    <parent link="trunk" />
    <child link="sensor_15_01" />
    <axis xyz="0 0 0" />
  </joint>


<link name="sensor_15_02">
    <inertial>
      <origin xyz="0 -1.6653E-16 -5E-05" rpy="0 0 0" />
      <mass value="9.18E-07" />
      <inertia ixx="6.8927E-13" ixy="5.5033E-28" ixz="2.4805E-28" iyy="6.8927E-13" iyz="-3.5387E-24" izz="1.377E-12" />
    </inertial>
    <visual>
      <origin rpy="0 0 0" xyz="0 0 0"/>
      <geometry>
        <box size="0.0113 0.0105 0.001"/>
      </geometry>
      <material name="silver"/>
    </visual>
    <collision>
      <origin rpy="0 0 0" xyz="0 0 0"/>
      <geometry>
        <box size="0.0183 0.0175 0.001"/>
      </geometry>
    </collision>
  </link>
  
<joint name="sensor_15_02_fixed" type="fixed">
    <origin xyz="-0.0858 0.064 0.093" rpy="0 0 0" />
    <parent link="trunk" />
    <child link="sensor_15_02" />
    <axis xyz="0 0 0" />
  </joint>


<link name="sensor_15_03">
    <inertial>
      <origin xyz="0 -1.6653E-16 -5E-05" rpy="0 0 0" />
      <mass value="9.18E-07" />
      <inertia ixx="6.8927E-13" ixy="5.5033E-28" ixz="2.4805E-28" iyy="6.8927E-13" iyz="-3.5387E-24" izz="1.377E-12" />
    </inertial>
    <visual>
      <origin rpy="0 0 0" xyz="0 0 0"/>
      <geometry>
        <box size="0.0113 0.0105 0.001"/>
      </geometry>
      <material name="silver"/>
    </visual>
    <collision>
      <origin rpy="0 0 0" xyz="0 0 0"/>
      <geometry>
        <box size="0.0183 0.0175 0.001"/>
      </geometry>
    </collision>
  </link>
  
<joint name="sensor_15_03_fixed" type="fixed">
    <origin xyz="-0.0858 0.0512 0.093" rpy="0 0 0" />
    <parent link="trunk" />
    <child link="sensor_15_03" />
    <axis xyz="0 0 0" />
  </joint>


<link name="sensor_15_04">
    <inertial>
      <origin xyz="0 -1.6653E-16 -5E-05" rpy="0 0 0" />
      <mass value="9.18E-07" />
      <inertia ixx="6.8927E-13" ixy="5.5033E-28" ixz="2.4805E-28" iyy="6.8927E-13" iyz="-3.5387E-24" izz="1.377E-12" />
    </inertial>
    <visual>
      <origin rpy="0 0 0" xyz="0 0 0"/>
      <geometry>
        <box size="0.0113 0.0105 0.001"/>
      </geometry>
      <material name="silver"/>
    </visual>
    <collision>
      <origin rpy="0 0 0" xyz="0 0 0"/>
      <geometry>
        <box size="0.0183 0.0175 0.001"/>
      </geometry>
    </collision>
  </link>
  
<joint name="sensor_15_04_fixed" type="fixed">
    <origin xyz="-0.0858 0.0384 0.093" rpy="0 0 0" />
    <parent link="trunk" />
    <child link="sensor_15_04" />
    <axis xyz="0 0 0" />
  </joint>


<link name="sensor_15_05">
    <inertial>
      <origin xyz="0 -1.6653E-16 -5E-05" rpy="0 0 0" />
      <mass value="9.18E-07" />
      <inertia ixx="6.8927E-13" ixy="5.5033E-28" ixz="2.4805E-28" iyy="6.8927E-13" iyz="-3.5387E-24" izz="1.377E-12" />
    </inertial>
    <visual>
      <origin rpy="0 0 0" xyz="0 0 0"/>
      <geometry>
        <box size="0.0113 0.0105 0.001"/>
      </geometry>
      <material name="silver"/>
    </visual>
    <collision>
      <origin rpy="0 0 0" xyz="0 0 0"/>
      <geometry>
        <box size="0.0183 0.0175 0.001"/>
      </geometry>
    </collision>
  </link>
  
<joint name="sensor_15_05_fixed" type="fixed">
    <origin xyz="-0.0858 0.0256 0.093" rpy="0 0 0" />
    <parent link="trunk" />
    <child link="sensor_15_05" />
    <axis xyz="0 0 0" />
  </joint>


<link name="sensor_15_06">
    <inertial>
      <origin xyz="0 -1.6653E-16 -5E-05" rpy="0 0 0" />
      <mass value="9.18E-07" />
      <inertia ixx="6.8927E-13" ixy="5.5033E-28" ixz="2.4805E-28" iyy="6.8927E-13" iyz="-3.5387E-24" izz="1.377E-12" />
    </inertial>
    <visual>
      <origin rpy="0 0 0" xyz="0 0 0"/>
      <geometry>
        <box size="0.0113 0.0105 0.001"/>
      </geometry>
      <material name="silver"/>
    </visual>
    <collision>
      <origin rpy="0 0 0" xyz="0 0 0"/>
      <geometry>
        <box size="0.0183 0.0175 0.001"/>
      </geometry>
    </collision>
  </link>
  
<joint name="sensor_15_06_fixed" type="fixed">
    <origin xyz="-0.0858 0.0128 0.093" rpy="0 0 0" />
    <parent link="trunk" />
    <child link="sensor_15_06" />
    <axis xyz="0 0 0" />
  </joint>


<link name="sensor_15_07">
    <inertial>
      <origin xyz="0 -1.6653E-16 -5E-05" rpy="0 0 0" />
      <mass value="9.18E-07" />
      <inertia ixx="6.8927E-13" ixy="5.5033E-28" ixz="2.4805E-28" iyy="6.8927E-13" iyz="-3.5387E-24" izz="1.377E-12" />
    </inertial>
    <visual>
      <origin rpy="0 0 0" xyz="0 0 0"/>
      <geometry>
        <box size="0.0113 0.0105 0.001"/>
      </geometry>
      <material name="silver"/>
    </visual>
    <collision>
      <origin rpy="0 0 0" xyz="0 0 0"/>
      <geometry>
        <box size="0.0183 0.0175 0.001"/>
      </geometry>
    </collision>
  </link>
  
<joint name="sensor_15_07_fixed" type="fixed">
    <origin xyz="-0.0858 -0.0 0.093" rpy="0 0 0" />
    <parent link="trunk" />
    <child link="sensor_15_07" />
    <axis xyz="0 0 0" />
  </joint>


<link name="sensor_15_08">
    <inertial>
      <origin xyz="0 -1.6653E-16 -5E-05" rpy="0 0 0" />
      <mass value="9.18E-07" />
      <inertia ixx="6.8927E-13" ixy="5.5033E-28" ixz="2.4805E-28" iyy="6.8927E-13" iyz="-3.5387E-24" izz="1.377E-12" />
    </inertial>
    <visual>
      <origin rpy="0 0 0" xyz="0 0 0"/>
      <geometry>
        <box size="0.0113 0.0105 0.001"/>
      </geometry>
      <material name="silver"/>
    </visual>
    <collision>
      <origin rpy="0 0 0" xyz="0 0 0"/>
      <geometry>
        <box size="0.0183 0.0175 0.001"/>
      </geometry>
    </collision>
  </link>
  
<joint name="sensor_15_08_fixed" type="fixed">
    <origin xyz="-0.0858 -0.0128 0.093" rpy="0 0 0" />
    <parent link="trunk" />
    <child link="sensor_15_08" />
    <axis xyz="0 0 0" />
  </joint>


<link name="sensor_15_09">
    <inertial>
      <origin xyz="0 -1.6653E-16 -5E-05" rpy="0 0 0" />
      <mass value="9.18E-07" />
      <inertia ixx="6.8927E-13" ixy="5.5033E-28" ixz="2.4805E-28" iyy="6.8927E-13" iyz="-3.5387E-24" izz="1.377E-12" />
    </inertial>
    <visual>
      <origin rpy="0 0 0" xyz="0 0 0"/>
      <geometry>
        <box size="0.0113 0.0105 0.001"/>
      </geometry>
      <material name="silver"/>
    </visual>
    <collision>
      <origin rpy="0 0 0" xyz="0 0 0"/>
      <geometry>
        <box size="0.0183 0.0175 0.001"/>
      </geometry>
    </collision>
  </link>
  
<joint name="sensor_15_09_fixed" type="fixed">
    <origin xyz="-0.0858 -0.0256 0.093" rpy="0 0 0" />
    <parent link="trunk" />
    <child link="sensor_15_09" />
    <axis xyz="0 0 0" />
  </joint>


<link name="sensor_15_10">
    <inertial>
      <origin xyz="0 -1.6653E-16 -5E-05" rpy="0 0 0" />
      <mass value="9.18E-07" />
      <inertia ixx="6.8927E-13" ixy="5.5033E-28" ixz="2.4805E-28" iyy="6.8927E-13" iyz="-3.5387E-24" izz="1.377E-12" />
    </inertial>
    <visual>
      <origin rpy="0 0 0" xyz="0 0 0"/>
      <geometry>
        <box size="0.0113 0.0105 0.001"/>
      </geometry>
      <material name="silver"/>
    </visual>
    <collision>
      <origin rpy="0 0 0" xyz="0 0 0"/>
      <geometry>
        <box size="0.0183 0.0175 0.001"/>
      </geometry>
    </collision>
  </link>
  
<joint name="sensor_15_10_fixed" type="fixed">
    <origin xyz="-0.0858 -0.0384 0.093" rpy="0 0 0" />
    <parent link="trunk" />
    <child link="sensor_15_10" />
    <axis xyz="0 0 0" />
  </joint>


<link name="sensor_15_11">
    <inertial>
      <origin xyz="0 -1.6653E-16 -5E-05" rpy="0 0 0" />
      <mass value="9.18E-07" />
      <inertia ixx="6.8927E-13" ixy="5.5033E-28" ixz="2.4805E-28" iyy="6.8927E-13" iyz="-3.5387E-24" izz="1.377E-12" />
    </inertial>
    <visual>
      <origin rpy="0 0 0" xyz="0 0 0"/>
      <geometry>
        <box size="0.0113 0.0105 0.001"/>
      </geometry>
      <material name="silver"/>
    </visual>
    <collision>
      <origin rpy="0 0 0" xyz="0 0 0"/>
      <geometry>
        <box size="0.0183 0.0175 0.001"/>
      </geometry>
    </collision>
  </link>
  
<joint name="sensor_15_11_fixed" type="fixed">
    <origin xyz="-0.0858 -0.0512 0.093" rpy="0 0 0" />
    <parent link="trunk" />
    <child link="sensor_15_11" />
    <axis xyz="0 0 0" />
  </joint>


<link name="sensor_15_12">
    <inertial>
      <origin xyz="0 -1.6653E-16 -5E-05" rpy="0 0 0" />
      <mass value="9.18E-07" />
      <inertia ixx="6.8927E-13" ixy="5.5033E-28" ixz="2.4805E-28" iyy="6.8927E-13" iyz="-3.5387E-24" izz="1.377E-12" />
    </inertial>
    <visual>
      <origin rpy="0 0 0" xyz="0 0 0"/>
      <geometry>
        <box size="0.0113 0.0105 0.001"/>
      </geometry>
      <material name="silver"/>
    </visual>
    <collision>
      <origin rpy="0 0 0" xyz="0 0 0"/>
      <geometry>
        <box size="0.0183 0.0175 0.001"/>
      </geometry>
    </collision>
  </link>
  
<joint name="sensor_15_12_fixed" type="fixed">
    <origin xyz="-0.0858 -0.064 0.093" rpy="0 0 0" />
    <parent link="trunk" />
    <child link="sensor_15_12" />
    <axis xyz="0 0 0" />
  </joint>


<link name="sensor_15_13">
    <inertial>
      <origin xyz="0 -1.6653E-16 -5E-05" rpy="0 0 0" />
      <mass value="9.18E-07" />
      <inertia ixx="6.8927E-13" ixy="5.5033E-28" ixz="2.4805E-28" iyy="6.8927E-13" iyz="-3.5387E-24" izz="1.377E-12" />
    </inertial>
    <visual>
      <origin rpy="0 0 0" xyz="0 0 0"/>
      <geometry>
        <box size="0.0113 0.0105 0.001"/>
      </geometry>
      <material name="silver"/>
    </visual>
    <collision>
      <origin rpy="0 0 0" xyz="0 0 0"/>
      <geometry>
        <box size="0.0183 0.0175 0.001"/>
      </geometry>
    </collision>
  </link>
  
<joint name="sensor_15_13_fixed" type="fixed">
    <origin xyz="-0.0858 -0.0768 0.093" rpy="0 0 0" />
    <parent link="trunk" />
    <child link="sensor_15_13" />
    <axis xyz="0 0 0" />
  </joint>


<link name="sensor_16_01">
    <inertial>
      <origin xyz="0 -1.6653E-16 -5E-05" rpy="0 0 0" />
      <mass value="9.18E-07" />
      <inertia ixx="6.8927E-13" ixy="5.5033E-28" ixz="2.4805E-28" iyy="6.8927E-13" iyz="-3.5387E-24" izz="1.377E-12" />
    </inertial>
    <visual>
      <origin rpy="0 0 0" xyz="0 0 0"/>
      <geometry>
        <box size="0.0113 0.0105 0.001"/>
      </geometry>
      <material name="silver"/>
    </visual>
    <collision>
      <origin rpy="0 0 0" xyz="0 0 0"/>
      <geometry>
        <box size="0.0183 0.0175 0.001"/>
      </geometry>
    </collision>
  </link>
  
<joint name="sensor_16_01_fixed" type="fixed">
    <origin xyz="-0.1001 0.0768 0.093" rpy="0 0 0" />
    <parent link="trunk" />
    <child link="sensor_16_01" />
    <axis xyz="0 0 0" />
  </joint>


<link name="sensor_16_02">
    <inertial>
      <origin xyz="0 -1.6653E-16 -5E-05" rpy="0 0 0" />
      <mass value="9.18E-07" />
      <inertia ixx="6.8927E-13" ixy="5.5033E-28" ixz="2.4805E-28" iyy="6.8927E-13" iyz="-3.5387E-24" izz="1.377E-12" />
    </inertial>
    <visual>
      <origin rpy="0 0 0" xyz="0 0 0"/>
      <geometry>
        <box size="0.0113 0.0105 0.001"/>
      </geometry>
      <material name="silver"/>
    </visual>
    <collision>
      <origin rpy="0 0 0" xyz="0 0 0"/>
      <geometry>
        <box size="0.0183 0.0175 0.001"/>
      </geometry>
    </collision>
  </link>
  
<joint name="sensor_16_02_fixed" type="fixed">
    <origin xyz="-0.1001 0.064 0.093" rpy="0 0 0" />
    <parent link="trunk" />
    <child link="sensor_16_02" />
    <axis xyz="0 0 0" />
  </joint>


<link name="sensor_16_03">
    <inertial>
      <origin xyz="0 -1.6653E-16 -5E-05" rpy="0 0 0" />
      <mass value="9.18E-07" />
      <inertia ixx="6.8927E-13" ixy="5.5033E-28" ixz="2.4805E-28" iyy="6.8927E-13" iyz="-3.5387E-24" izz="1.377E-12" />
    </inertial>
    <visual>
      <origin rpy="0 0 0" xyz="0 0 0"/>
      <geometry>
        <box size="0.0113 0.0105 0.001"/>
      </geometry>
      <material name="silver"/>
    </visual>
    <collision>
      <origin rpy="0 0 0" xyz="0 0 0"/>
      <geometry>
        <box size="0.0183 0.0175 0.001"/>
      </geometry>
    </collision>
  </link>
  
<joint name="sensor_16_03_fixed" type="fixed">
    <origin xyz="-0.1001 0.0512 0.093" rpy="0 0 0" />
    <parent link="trunk" />
    <child link="sensor_16_03" />
    <axis xyz="0 0 0" />
  </joint>


<link name="sensor_16_04">
    <inertial>
      <origin xyz="0 -1.6653E-16 -5E-05" rpy="0 0 0" />
      <mass value="9.18E-07" />
      <inertia ixx="6.8927E-13" ixy="5.5033E-28" ixz="2.4805E-28" iyy="6.8927E-13" iyz="-3.5387E-24" izz="1.377E-12" />
    </inertial>
    <visual>
      <origin rpy="0 0 0" xyz="0 0 0"/>
      <geometry>
        <box size="0.0113 0.0105 0.001"/>
      </geometry>
      <material name="silver"/>
    </visual>
    <collision>
      <origin rpy="0 0 0" xyz="0 0 0"/>
      <geometry>
        <box size="0.0183 0.0175 0.001"/>
      </geometry>
    </collision>
  </link>
  
<joint name="sensor_16_04_fixed" type="fixed">
    <origin xyz="-0.1001 0.0384 0.093" rpy="0 0 0" />
    <parent link="trunk" />
    <child link="sensor_16_04" />
    <axis xyz="0 0 0" />
  </joint>


<link name="sensor_16_05">
    <inertial>
      <origin xyz="0 -1.6653E-16 -5E-05" rpy="0 0 0" />
      <mass value="9.18E-07" />
      <inertia ixx="6.8927E-13" ixy="5.5033E-28" ixz="2.4805E-28" iyy="6.8927E-13" iyz="-3.5387E-24" izz="1.377E-12" />
    </inertial>
    <visual>
      <origin rpy="0 0 0" xyz="0 0 0"/>
      <geometry>
        <box size="0.0113 0.0105 0.001"/>
      </geometry>
      <material name="silver"/>
    </visual>
    <collision>
      <origin rpy="0 0 0" xyz="0 0 0"/>
      <geometry>
        <box size="0.0183 0.0175 0.001"/>
      </geometry>
    </collision>
  </link>
  
<joint name="sensor_16_05_fixed" type="fixed">
    <origin xyz="-0.1001 0.0256 0.093" rpy="0 0 0" />
    <parent link="trunk" />
    <child link="sensor_16_05" />
    <axis xyz="0 0 0" />
  </joint>


<link name="sensor_16_06">
    <inertial>
      <origin xyz="0 -1.6653E-16 -5E-05" rpy="0 0 0" />
      <mass value="9.18E-07" />
      <inertia ixx="6.8927E-13" ixy="5.5033E-28" ixz="2.4805E-28" iyy="6.8927E-13" iyz="-3.5387E-24" izz="1.377E-12" />
    </inertial>
    <visual>
      <origin rpy="0 0 0" xyz="0 0 0"/>
      <geometry>
        <box size="0.0113 0.0105 0.001"/>
      </geometry>
      <material name="silver"/>
    </visual>
    <collision>
      <origin rpy="0 0 0" xyz="0 0 0"/>
      <geometry>
        <box size="0.0183 0.0175 0.001"/>
      </geometry>
    </collision>
  </link>
  
<joint name="sensor_16_06_fixed" type="fixed">
    <origin xyz="-0.1001 0.0128 0.093" rpy="0 0 0" />
    <parent link="trunk" />
    <child link="sensor_16_06" />
    <axis xyz="0 0 0" />
  </joint>


<link name="sensor_16_07">
    <inertial>
      <origin xyz="0 -1.6653E-16 -5E-05" rpy="0 0 0" />
      <mass value="9.18E-07" />
      <inertia ixx="6.8927E-13" ixy="5.5033E-28" ixz="2.4805E-28" iyy="6.8927E-13" iyz="-3.5387E-24" izz="1.377E-12" />
    </inertial>
    <visual>
      <origin rpy="0 0 0" xyz="0 0 0"/>
      <geometry>
        <box size="0.0113 0.0105 0.001"/>
      </geometry>
      <material name="silver"/>
    </visual>
    <collision>
      <origin rpy="0 0 0" xyz="0 0 0"/>
      <geometry>
        <box size="0.0183 0.0175 0.001"/>
      </geometry>
    </collision>
  </link>
  
<joint name="sensor_16_07_fixed" type="fixed">
    <origin xyz="-0.1001 -0.0 0.093" rpy="0 0 0" />
    <parent link="trunk" />
    <child link="sensor_16_07" />
    <axis xyz="0 0 0" />
  </joint>


<link name="sensor_16_08">
    <inertial>
      <origin xyz="0 -1.6653E-16 -5E-05" rpy="0 0 0" />
      <mass value="9.18E-07" />
      <inertia ixx="6.8927E-13" ixy="5.5033E-28" ixz="2.4805E-28" iyy="6.8927E-13" iyz="-3.5387E-24" izz="1.377E-12" />
    </inertial>
    <visual>
      <origin rpy="0 0 0" xyz="0 0 0"/>
      <geometry>
        <box size="0.0113 0.0105 0.001"/>
      </geometry>
      <material name="silver"/>
    </visual>
    <collision>
      <origin rpy="0 0 0" xyz="0 0 0"/>
      <geometry>
        <box size="0.0183 0.0175 0.001"/>
      </geometry>
    </collision>
  </link>
  
<joint name="sensor_16_08_fixed" type="fixed">
    <origin xyz="-0.1001 -0.0128 0.093" rpy="0 0 0" />
    <parent link="trunk" />
    <child link="sensor_16_08" />
    <axis xyz="0 0 0" />
  </joint>


<link name="sensor_16_09">
    <inertial>
      <origin xyz="0 -1.6653E-16 -5E-05" rpy="0 0 0" />
      <mass value="9.18E-07" />
      <inertia ixx="6.8927E-13" ixy="5.5033E-28" ixz="2.4805E-28" iyy="6.8927E-13" iyz="-3.5387E-24" izz="1.377E-12" />
    </inertial>
    <visual>
      <origin rpy="0 0 0" xyz="0 0 0"/>
      <geometry>
        <box size="0.0113 0.0105 0.001"/>
      </geometry>
      <material name="silver"/>
    </visual>
    <collision>
      <origin rpy="0 0 0" xyz="0 0 0"/>
      <geometry>
        <box size="0.0183 0.0175 0.001"/>
      </geometry>
    </collision>
  </link>
  
<joint name="sensor_16_09_fixed" type="fixed">
    <origin xyz="-0.1001 -0.0256 0.093" rpy="0 0 0" />
    <parent link="trunk" />
    <child link="sensor_16_09" />
    <axis xyz="0 0 0" />
  </joint>


<link name="sensor_16_10">
    <inertial>
      <origin xyz="0 -1.6653E-16 -5E-05" rpy="0 0 0" />
      <mass value="9.18E-07" />
      <inertia ixx="6.8927E-13" ixy="5.5033E-28" ixz="2.4805E-28" iyy="6.8927E-13" iyz="-3.5387E-24" izz="1.377E-12" />
    </inertial>
    <visual>
      <origin rpy="0 0 0" xyz="0 0 0"/>
      <geometry>
        <box size="0.0113 0.0105 0.001"/>
      </geometry>
      <material name="silver"/>
    </visual>
    <collision>
      <origin rpy="0 0 0" xyz="0 0 0"/>
      <geometry>
        <box size="0.0183 0.0175 0.001"/>
      </geometry>
    </collision>
  </link>
  
<joint name="sensor_16_10_fixed" type="fixed">
    <origin xyz="-0.1001 -0.0384 0.093" rpy="0 0 0" />
    <parent link="trunk" />
    <child link="sensor_16_10" />
    <axis xyz="0 0 0" />
  </joint>


<link name="sensor_16_11">
    <inertial>
      <origin xyz="0 -1.6653E-16 -5E-05" rpy="0 0 0" />
      <mass value="9.18E-07" />
      <inertia ixx="6.8927E-13" ixy="5.5033E-28" ixz="2.4805E-28" iyy="6.8927E-13" iyz="-3.5387E-24" izz="1.377E-12" />
    </inertial>
    <visual>
      <origin rpy="0 0 0" xyz="0 0 0"/>
      <geometry>
        <box size="0.0113 0.0105 0.001"/>
      </geometry>
      <material name="silver"/>
    </visual>
    <collision>
      <origin rpy="0 0 0" xyz="0 0 0"/>
      <geometry>
        <box size="0.0183 0.0175 0.001"/>
      </geometry>
    </collision>
  </link>
  
<joint name="sensor_16_11_fixed" type="fixed">
    <origin xyz="-0.1001 -0.0512 0.093" rpy="0 0 0" />
    <parent link="trunk" />
    <child link="sensor_16_11" />
    <axis xyz="0 0 0" />
  </joint>


<link name="sensor_16_12">
    <inertial>
      <origin xyz="0 -1.6653E-16 -5E-05" rpy="0 0 0" />
      <mass value="9.18E-07" />
      <inertia ixx="6.8927E-13" ixy="5.5033E-28" ixz="2.4805E-28" iyy="6.8927E-13" iyz="-3.5387E-24" izz="1.377E-12" />
    </inertial>
    <visual>
      <origin rpy="0 0 0" xyz="0 0 0"/>
      <geometry>
        <box size="0.0113 0.0105 0.001"/>
      </geometry>
      <material name="silver"/>
    </visual>
    <collision>
      <origin rpy="0 0 0" xyz="0 0 0"/>
      <geometry>
        <box size="0.0183 0.0175 0.001"/>
      </geometry>
    </collision>
  </link>
  
<joint name="sensor_16_12_fixed" type="fixed">
    <origin xyz="-0.1001 -0.064 0.093" rpy="0 0 0" />
    <parent link="trunk" />
    <child link="sensor_16_12" />
    <axis xyz="0 0 0" />
  </joint>


<link name="sensor_16_13">
    <inertial>
      <origin xyz="0 -1.6653E-16 -5E-05" rpy="0 0 0" />
      <mass value="9.18E-07" />
      <inertia ixx="6.8927E-13" ixy="5.5033E-28" ixz="2.4805E-28" iyy="6.8927E-13" iyz="-3.5387E-24" izz="1.377E-12" />
    </inertial>
    <visual>
      <origin rpy="0 0 0" xyz="0 0 0"/>
      <geometry>
        <box size="0.0113 0.0105 0.001"/>
      </geometry>
      <material name="silver"/>
    </visual>
    <collision>
      <origin rpy="0 0 0" xyz="0 0 0"/>
      <geometry>
        <box size="0.0183 0.0175 0.001"/>
      </geometry>
    </collision>
  </link>
  
<joint name="sensor_16_13_fixed" type="fixed">
    <origin xyz="-0.1001 -0.0768 0.093" rpy="0 0 0" />
    <parent link="trunk" />
    <child link="sensor_16_13" />
    <axis xyz="0 0 0" />
  </joint>


<link name="sensor_17_01">
    <inertial>
      <origin xyz="0 -1.6653E-16 -5E-05" rpy="0 0 0" />
      <mass value="9.18E-07" />
      <inertia ixx="6.8927E-13" ixy="5.5033E-28" ixz="2.4805E-28" iyy="6.8927E-13" iyz="-3.5387E-24" izz="1.377E-12" />
    </inertial>
    <visual>
      <origin rpy="0 0 0" xyz="0 0 0"/>
      <geometry>
        <box size="0.0113 0.0105 0.001"/>
      </geometry>
      <material name="silver"/>
    </visual>
    <collision>
      <origin rpy="0 0 0" xyz="0 0 0"/>
      <geometry>
        <box size="0.0183 0.0175 0.001"/>
      </geometry>
    </collision>
  </link>
  
<joint name="sensor_17_01_fixed" type="fixed">
    <origin xyz="-0.1144 0.0768 0.093" rpy="0 0 0" />
    <parent link="trunk" />
    <child link="sensor_17_01" />
    <axis xyz="0 0 0" />
  </joint>


<link name="sensor_17_02">
    <inertial>
      <origin xyz="0 -1.6653E-16 -5E-05" rpy="0 0 0" />
      <mass value="9.18E-07" />
      <inertia ixx="6.8927E-13" ixy="5.5033E-28" ixz="2.4805E-28" iyy="6.8927E-13" iyz="-3.5387E-24" izz="1.377E-12" />
    </inertial>
    <visual>
      <origin rpy="0 0 0" xyz="0 0 0"/>
      <geometry>
        <box size="0.0113 0.0105 0.001"/>
      </geometry>
      <material name="silver"/>
    </visual>
    <collision>
      <origin rpy="0 0 0" xyz="0 0 0"/>
      <geometry>
        <box size="0.0183 0.0175 0.001"/>
      </geometry>
    </collision>
  </link>
  
<joint name="sensor_17_02_fixed" type="fixed">
    <origin xyz="-0.1144 0.064 0.093" rpy="0 0 0" />
    <parent link="trunk" />
    <child link="sensor_17_02" />
    <axis xyz="0 0 0" />
  </joint>


<link name="sensor_17_03">
    <inertial>
      <origin xyz="0 -1.6653E-16 -5E-05" rpy="0 0 0" />
      <mass value="9.18E-07" />
      <inertia ixx="6.8927E-13" ixy="5.5033E-28" ixz="2.4805E-28" iyy="6.8927E-13" iyz="-3.5387E-24" izz="1.377E-12" />
    </inertial>
    <visual>
      <origin rpy="0 0 0" xyz="0 0 0"/>
      <geometry>
        <box size="0.0113 0.0105 0.001"/>
      </geometry>
      <material name="silver"/>
    </visual>
    <collision>
      <origin rpy="0 0 0" xyz="0 0 0"/>
      <geometry>
        <box size="0.0183 0.0175 0.001"/>
      </geometry>
    </collision>
  </link>
  
<joint name="sensor_17_03_fixed" type="fixed">
    <origin xyz="-0.1144 0.0512 0.093" rpy="0 0 0" />
    <parent link="trunk" />
    <child link="sensor_17_03" />
    <axis xyz="0 0 0" />
  </joint>


<link name="sensor_17_04">
    <inertial>
      <origin xyz="0 -1.6653E-16 -5E-05" rpy="0 0 0" />
      <mass value="9.18E-07" />
      <inertia ixx="6.8927E-13" ixy="5.5033E-28" ixz="2.4805E-28" iyy="6.8927E-13" iyz="-3.5387E-24" izz="1.377E-12" />
    </inertial>
    <visual>
      <origin rpy="0 0 0" xyz="0 0 0"/>
      <geometry>
        <box size="0.0113 0.0105 0.001"/>
      </geometry>
      <material name="silver"/>
    </visual>
    <collision>
      <origin rpy="0 0 0" xyz="0 0 0"/>
      <geometry>
        <box size="0.0183 0.0175 0.001"/>
      </geometry>
    </collision>
  </link>
  
<joint name="sensor_17_04_fixed" type="fixed">
    <origin xyz="-0.1144 0.0384 0.093" rpy="0 0 0" />
    <parent link="trunk" />
    <child link="sensor_17_04" />
    <axis xyz="0 0 0" />
  </joint>


<link name="sensor_17_05">
    <inertial>
      <origin xyz="0 -1.6653E-16 -5E-05" rpy="0 0 0" />
      <mass value="9.18E-07" />
      <inertia ixx="6.8927E-13" ixy="5.5033E-28" ixz="2.4805E-28" iyy="6.8927E-13" iyz="-3.5387E-24" izz="1.377E-12" />
    </inertial>
    <visual>
      <origin rpy="0 0 0" xyz="0 0 0"/>
      <geometry>
        <box size="0.0113 0.0105 0.001"/>
      </geometry>
      <material name="silver"/>
    </visual>
    <collision>
      <origin rpy="0 0 0" xyz="0 0 0"/>
      <geometry>
        <box size="0.0183 0.0175 0.001"/>
      </geometry>
    </collision>
  </link>
  
<joint name="sensor_17_05_fixed" type="fixed">
    <origin xyz="-0.1144 0.0256 0.093" rpy="0 0 0" />
    <parent link="trunk" />
    <child link="sensor_17_05" />
    <axis xyz="0 0 0" />
  </joint>


<link name="sensor_17_06">
    <inertial>
      <origin xyz="0 -1.6653E-16 -5E-05" rpy="0 0 0" />
      <mass value="9.18E-07" />
      <inertia ixx="6.8927E-13" ixy="5.5033E-28" ixz="2.4805E-28" iyy="6.8927E-13" iyz="-3.5387E-24" izz="1.377E-12" />
    </inertial>
    <visual>
      <origin rpy="0 0 0" xyz="0 0 0"/>
      <geometry>
        <box size="0.0113 0.0105 0.001"/>
      </geometry>
      <material name="silver"/>
    </visual>
    <collision>
      <origin rpy="0 0 0" xyz="0 0 0"/>
      <geometry>
        <box size="0.0183 0.0175 0.001"/>
      </geometry>
    </collision>
  </link>
  
<joint name="sensor_17_06_fixed" type="fixed">
    <origin xyz="-0.1144 0.0128 0.093" rpy="0 0 0" />
    <parent link="trunk" />
    <child link="sensor_17_06" />
    <axis xyz="0 0 0" />
  </joint>


<link name="sensor_17_07">
    <inertial>
      <origin xyz="0 -1.6653E-16 -5E-05" rpy="0 0 0" />
      <mass value="9.18E-07" />
      <inertia ixx="6.8927E-13" ixy="5.5033E-28" ixz="2.4805E-28" iyy="6.8927E-13" iyz="-3.5387E-24" izz="1.377E-12" />
    </inertial>
    <visual>
      <origin rpy="0 0 0" xyz="0 0 0"/>
      <geometry>
        <box size="0.0113 0.0105 0.001"/>
      </geometry>
      <material name="silver"/>
    </visual>
    <collision>
      <origin rpy="0 0 0" xyz="0 0 0"/>
      <geometry>
        <box size="0.0183 0.0175 0.001"/>
      </geometry>
    </collision>
  </link>
  
<joint name="sensor_17_07_fixed" type="fixed">
    <origin xyz="-0.1144 -0.0 0.093" rpy="0 0 0" />
    <parent link="trunk" />
    <child link="sensor_17_07" />
    <axis xyz="0 0 0" />
  </joint>


<link name="sensor_17_08">
    <inertial>
      <origin xyz="0 -1.6653E-16 -5E-05" rpy="0 0 0" />
      <mass value="9.18E-07" />
      <inertia ixx="6.8927E-13" ixy="5.5033E-28" ixz="2.4805E-28" iyy="6.8927E-13" iyz="-3.5387E-24" izz="1.377E-12" />
    </inertial>
    <visual>
      <origin rpy="0 0 0" xyz="0 0 0"/>
      <geometry>
        <box size="0.0113 0.0105 0.001"/>
      </geometry>
      <material name="silver"/>
    </visual>
    <collision>
      <origin rpy="0 0 0" xyz="0 0 0"/>
      <geometry>
        <box size="0.0183 0.0175 0.001"/>
      </geometry>
    </collision>
  </link>
  
<joint name="sensor_17_08_fixed" type="fixed">
    <origin xyz="-0.1144 -0.0128 0.093" rpy="0 0 0" />
    <parent link="trunk" />
    <child link="sensor_17_08" />
    <axis xyz="0 0 0" />
  </joint>


<link name="sensor_17_09">
    <inertial>
      <origin xyz="0 -1.6653E-16 -5E-05" rpy="0 0 0" />
      <mass value="9.18E-07" />
      <inertia ixx="6.8927E-13" ixy="5.5033E-28" ixz="2.4805E-28" iyy="6.8927E-13" iyz="-3.5387E-24" izz="1.377E-12" />
    </inertial>
    <visual>
      <origin rpy="0 0 0" xyz="0 0 0"/>
      <geometry>
        <box size="0.0113 0.0105 0.001"/>
      </geometry>
      <material name="silver"/>
    </visual>
    <collision>
      <origin rpy="0 0 0" xyz="0 0 0"/>
      <geometry>
        <box size="0.0183 0.0175 0.001"/>
      </geometry>
    </collision>
  </link>
  
<joint name="sensor_17_09_fixed" type="fixed">
    <origin xyz="-0.1144 -0.0256 0.093" rpy="0 0 0" />
    <parent link="trunk" />
    <child link="sensor_17_09" />
    <axis xyz="0 0 0" />
  </joint>


<link name="sensor_17_10">
    <inertial>
      <origin xyz="0 -1.6653E-16 -5E-05" rpy="0 0 0" />
      <mass value="9.18E-07" />
      <inertia ixx="6.8927E-13" ixy="5.5033E-28" ixz="2.4805E-28" iyy="6.8927E-13" iyz="-3.5387E-24" izz="1.377E-12" />
    </inertial>
    <visual>
      <origin rpy="0 0 0" xyz="0 0 0"/>
      <geometry>
        <box size="0.0113 0.0105 0.001"/>
      </geometry>
      <material name="silver"/>
    </visual>
    <collision>
      <origin rpy="0 0 0" xyz="0 0 0"/>
      <geometry>
        <box size="0.0183 0.0175 0.001"/>
      </geometry>
    </collision>
  </link>
  
<joint name="sensor_17_10_fixed" type="fixed">
    <origin xyz="-0.1144 -0.0384 0.093" rpy="0 0 0" />
    <parent link="trunk" />
    <child link="sensor_17_10" />
    <axis xyz="0 0 0" />
  </joint>


<link name="sensor_17_11">
    <inertial>
      <origin xyz="0 -1.6653E-16 -5E-05" rpy="0 0 0" />
      <mass value="9.18E-07" />
      <inertia ixx="6.8927E-13" ixy="5.5033E-28" ixz="2.4805E-28" iyy="6.8927E-13" iyz="-3.5387E-24" izz="1.377E-12" />
    </inertial>
    <visual>
      <origin rpy="0 0 0" xyz="0 0 0"/>
      <geometry>
        <box size="0.0113 0.0105 0.001"/>
      </geometry>
      <material name="silver"/>
    </visual>
    <collision>
      <origin rpy="0 0 0" xyz="0 0 0"/>
      <geometry>
        <box size="0.0183 0.0175 0.001"/>
      </geometry>
    </collision>
  </link>
  
<joint name="sensor_17_11_fixed" type="fixed">
    <origin xyz="-0.1144 -0.0512 0.093" rpy="0 0 0" />
    <parent link="trunk" />
    <child link="sensor_17_11" />
    <axis xyz="0 0 0" />
  </joint>


<link name="sensor_17_12">
    <inertial>
      <origin xyz="0 -1.6653E-16 -5E-05" rpy="0 0 0" />
      <mass value="9.18E-07" />
      <inertia ixx="6.8927E-13" ixy="5.5033E-28" ixz="2.4805E-28" iyy="6.8927E-13" iyz="-3.5387E-24" izz="1.377E-12" />
    </inertial>
    <visual>
      <origin rpy="0 0 0" xyz="0 0 0"/>
      <geometry>
        <box size="0.0113 0.0105 0.001"/>
      </geometry>
      <material name="silver"/>
    </visual>
    <collision>
      <origin rpy="0 0 0" xyz="0 0 0"/>
      <geometry>
        <box size="0.0183 0.0175 0.001"/>
      </geometry>
    </collision>
  </link>
  
<joint name="sensor_17_12_fixed" type="fixed">
    <origin xyz="-0.1144 -0.064 0.093" rpy="0 0 0" />
    <parent link="trunk" />
    <child link="sensor_17_12" />
    <axis xyz="0 0 0" />
  </joint>


<link name="sensor_17_13">
    <inertial>
      <origin xyz="0 -1.6653E-16 -5E-05" rpy="0 0 0" />
      <mass value="9.18E-07" />
      <inertia ixx="6.8927E-13" ixy="5.5033E-28" ixz="2.4805E-28" iyy="6.8927E-13" iyz="-3.5387E-24" izz="1.377E-12" />
    </inertial>
    <visual>
      <origin rpy="0 0 0" xyz="0 0 0"/>
      <geometry>
        <box size="0.0113 0.0105 0.001"/>
      </geometry>
      <material name="silver"/>
    </visual>
    <collision>
      <origin rpy="0 0 0" xyz="0 0 0"/>
      <geometry>
        <box size="0.0183 0.0175 0.001"/>
      </geometry>
    </collision>
  </link>
  
<joint name="sensor_17_13_fixed" type="fixed">
    <origin xyz="-0.1144 -0.0768 0.093" rpy="0 0 0" />
    <parent link="trunk" />
    <child link="sensor_17_13" />
    <axis xyz="0 0 0" />
  </joint>


</robot>
